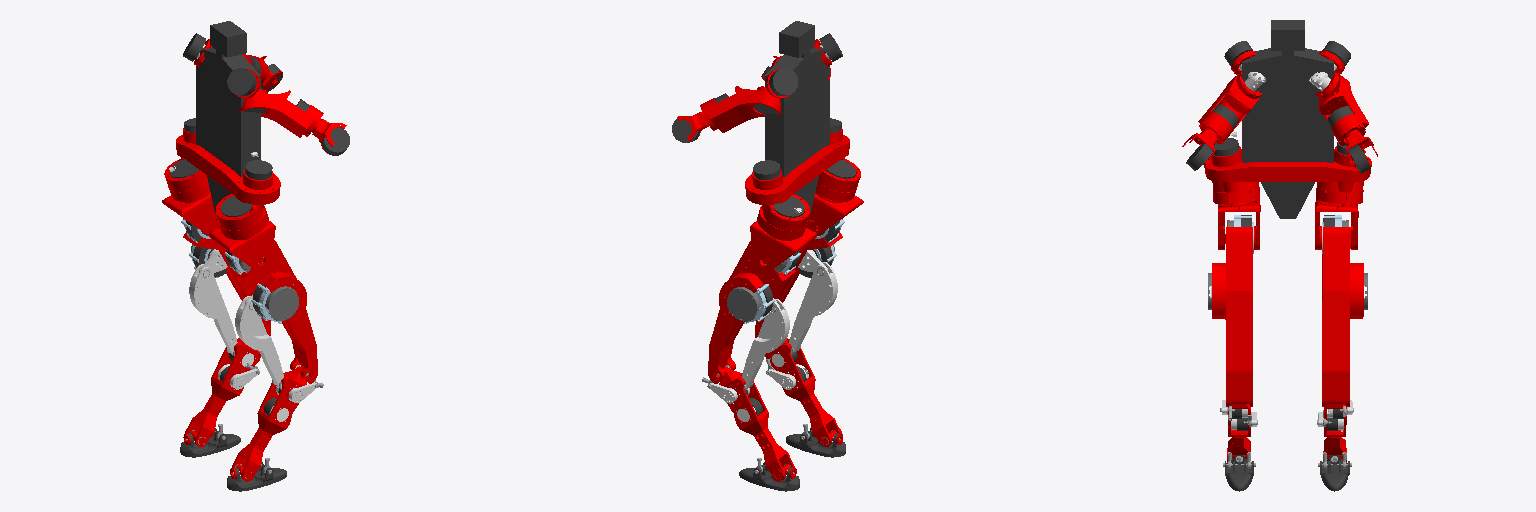
--- Render facts (derived) ---
3 views of the same robot in one strip: view 1: azimuth 30°, elevation 25°; view 2: azimuth 150°, elevation 25°; view 3: azimuth 270°, elevation 25° (orthographic).
Robot: urdf — 18 links, 17 joints (12 revolute, 5 fixed); root link torso_subassembly; default pose: every joint at zero.
Links seen in each view (by area): view 1: torso_mesh, tigh_subassembly, torso_assembly, tigh_subassembly_sym, torso_subassembly, shin_subassembly, shin_subassembly_sym, hipx_subassembly, hipy_subassembly, hipx_subassemby_sym, hipy_subassembly_sym, foot_subassembly_2 (+1 smaller); view 2: torso_mesh, tigh_subassembly_sym, torso_assembly, tigh_subassembly, torso_subassembly, shin_subassembly_sym, shin_subassembly, hipx_subassemby_sym, hipy_subassembly_sym, hipx_subassembly, hipy_subassembly, foot_subassembly (+1 smaller); view 3: torso_mesh, torso_assembly, tigh_subassembly_sym, tigh_subassembly, torso_subassembly, shin_subassembly, shin_subassembly_sym, hipx_subassemby_sym, hipx_subassembly, hipy_subassembly_sym, foot_subassembly_2, foot_subassembly (+1 smaller).
Link boxes in pixels (x1=…): torso_mesh: x1=196, y1=21, x2=260, y2=212; tigh_subassembly: x1=225, y1=240, x2=317, y2=389; torso_assembly: x1=183, y1=33, x2=349, y2=155; tigh_subassembly_sym: x1=181, y1=218, x2=270, y2=355; torso_subassembly: x1=176, y1=118, x2=280, y2=204; shin_subassembly: x1=232, y1=366, x2=323, y2=481; shin_subassembly_sym: x1=185, y1=338, x2=260, y2=446; hipx_subassembly: x1=216, y1=194, x2=268, y2=239; hipy_subassembly: x1=209, y1=221, x2=275, y2=271; hipx_subassemby_sym: x1=164, y1=157, x2=209, y2=201; hipy_subassembly_sym: x1=162, y1=192, x2=219, y2=235; foot_subassembly_2: x1=180, y1=424, x2=240, y2=457; torso_mesh: x1=765, y1=21, x2=829, y2=212; tigh_subassembly_sym: x1=708, y1=241, x2=800, y2=390; torso_assembly: x1=672, y1=33, x2=842, y2=142; tigh_subassembly: x1=755, y1=219, x2=844, y2=355; torso_subassembly: x1=745, y1=118, x2=849, y2=204; shin_subassembly_sym: x1=702, y1=366, x2=794, y2=481; shin_subassembly: x1=765, y1=338, x2=841, y2=446; hipx_subassemby_sym: x1=757, y1=194, x2=809, y2=239; hipy_subassembly_sym: x1=750, y1=221, x2=816, y2=271; hipx_subassembly: x1=816, y1=157, x2=860, y2=201; hipy_subassembly: x1=806, y1=192, x2=863, y2=235; foot_subassembly: x1=786, y1=424, x2=845, y2=457; torso_mesh: x1=1242, y1=20, x2=1333, y2=218; torso_assembly: x1=1182, y1=41, x2=1377, y2=173; tigh_subassembly_sym: x1=1322, y1=215, x2=1367, y2=406; tigh_subassembly: x1=1208, y1=215, x2=1253, y2=406; torso_subassembly: x1=1204, y1=132, x2=1371, y2=181; shin_subassembly: x1=1220, y1=400, x2=1257, y2=461; shin_subassembly_sym: x1=1317, y1=400, x2=1353, y2=461; hipx_subassemby_sym: x1=1316, y1=181, x2=1363, y2=206; hipx_subassembly: x1=1212, y1=181, x2=1259, y2=206; hipy_subassembly_sym: x1=1315, y1=200, x2=1358, y2=249; foot_subassembly_2: x1=1318, y1=452, x2=1351, y2=491; foot_subassembly: x1=1223, y1=452, x2=1255, y2=491.
Size in the robot's own frame: 0.3178 by 0.4249 by 1.07 metres.
Meshes: 60 distinct files referenced, 185 mesh visuals loaded (57 binary STL); not drawn: 11 (reference not matched to a file when rendering).

The robot description file, URDF, robot "urdf":
<?xml version="1.0" ?>
<!-- Generated using onshape-to-robot -->
<!-- Onshape https://cad.onshape.com/documents/fb645318a27646d1d8840be6/w/d1cae8805fb652b4d1614997/e/621ef473e7cde4418aaec2ed -->
<robot name="urdf">
  <!-- Link torso_subassembly -->
  <link name="torso_subassembly">
    <inertial>
      <origin xyz="-0.000697254 4.08729e-07 0.0361785" rpy="0 0 0"/>
      <mass value="1.37455"/>
      <inertia ixx="0.0195228" ixy="-3.0234e-10" ixz="1.40229e-06" iyy="0.00129235" iyz="1.22091e-10" izz="0.0197822"/>
    </inertial>
    <!-- Part rs00 -->
    <!-- Part torso22 -->
    <visual>
      <origin xyz="-0.000263039 0.233572 -0.0901625" rpy="-2.85923 1.2395e-17 -3.14159"/>
      <geometry>
        <mesh filename="package://assets/torso22.stl"/>
      </geometry>
      <material name="torso22_material">
        <color rgba="1 0 0 1"/>
      </material>
    </visual>
    <collision>
      <origin xyz="-0.000263039 0.233572 -0.0901625" rpy="-2.85923 1.2395e-17 -3.14159"/>
      <geometry>
        <mesh filename="package://assets/torso22.stl"/>
      </geometry>
    </collision>
    <!-- Part hex_socket_head_cap_screw_m4x0_70_x_20__832e47d784177ea3f1dabbaab534416e -->
    <!-- Part rs00_2 -->
    <!-- Part hex_socket_head_cap_screw_m4x0_70_x_20__832e47d784177ea3f1dabbaab534416e_2 -->
    <!-- Part hex_socket_head_cap_screw_m3x0_50_x_8__d566997e1880d7fd3377c5b0ee12206c -->
    <!-- Part hex_socket_head_cap_screw_m3x0_50_x_8__d566997e1880d7fd3377c5b0ee12206c_2 -->
    <!-- Part bearing_35_72_17 -->
    <visual>
      <origin xyz="-0.000887454 -0.130401 0.0222352" rpy="1.42962 -0.00345593 -3.1411"/>
      <geometry>
        <mesh filename="package://assets/bearing_35_72_17.stl"/>
      </geometry>
      <material name="bearing_35_72_17_material">
        <color rgba="0.768627 0.886275 0.952941 1"/>
      </material>
    </visual>
    <collision>
      <origin xyz="-0.000887454 -0.130401 0.0222352" rpy="1.42962 -0.00345593 -3.1411"/>
      <geometry>
        <mesh filename="package://assets/bearing_35_72_17.stl"/>
      </geometry>
    </collision>
    <!-- Part hex_socket_head_cap_screw_m4x0_70_x_20__832e47d784177ea3f1dabbaab534416e_3 -->
    <!-- Part hex_socket_head_cap_screw_m4x0_70_x_20__832e47d784177ea3f1dabbaab534416e_4 -->
    <!-- Part hex_socket_head_cap_screw_m4x0_70_x_20__832e47d784177ea3f1dabbaab534416e_5 -->
    <!-- Part robstrideo0 -->
    <visual>
      <origin xyz="0.672086 -0.147255 0.0629195" rpy="1.42962 -0.00345593 -3.1411"/>
      <geometry>
        <mesh filename="package://assets/robstrideo0.stl"/>
      </geometry>
      <material name="robstrideo0_material">
        <color rgba="0.301961 0.301961 0.301961 1"/>
      </material>
    </visual>
    <collision>
      <origin xyz="0.672086 -0.147255 0.0629195" rpy="1.42962 -0.00345593 -3.1411"/>
      <geometry>
        <mesh filename="package://assets/robstrideo0.stl"/>
      </geometry>
    </collision>
    <!-- Part hex_socket_head_cap_screw_m3x0_50_x_8__d566997e1880d7fd3377c5b0ee12206c_3 -->
    <!-- Part hex_socket_head_cap_screw_m4x0_70_x_20__832e47d784177ea3f1dabbaab534416e_6 -->
    <!-- Part hex_socket_head_cap_screw_m3x0_50_x_8__d566997e1880d7fd3377c5b0ee12206c_4 -->
    <!-- Part hex_socket_head_cap_screw_m4x0_70_x_20__832e47d784177ea3f1dabbaab534416e_7 -->
    <!-- Part hex_socket_head_cap_screw_m4x0_70_x_20__832e47d784177ea3f1dabbaab534416e_8 -->
    <!-- Part hex_socket_head_cap_screw_m3x0_50_x_8__d566997e1880d7fd3377c5b0ee12206c_5 -->
    <!-- Part hex_socket_head_cap_screw_m4x0_70_x_20__832e47d784177ea3f1dabbaab534416e_9 -->
    <!-- Part hex_socket_head_cap_screw_m3x0_50_x_8__d566997e1880d7fd3377c5b0ee12206c_6 -->
    <!-- Part robstrideo0_2 -->
    <visual>
      <origin xyz="0.672086 0.12555 0.0660044" rpy="1.71198 -0.00345593 3.1411"/>
      <geometry>
        <mesh filename="package://assets/robstrideo0.stl"/>
      </geometry>
      <material name="robstrideo0_2_material">
        <color rgba="0.301961 0.301961 0.301961 1"/>
      </material>
    </visual>
    <collision>
      <origin xyz="0.672086 0.12555 0.0660044" rpy="1.71198 -0.00345593 3.1411"/>
      <geometry>
        <mesh filename="package://assets/robstrideo0.stl"/>
      </geometry>
    </collision>
    <!-- Part hex_socket_head_cap_screw_m3x0_50_x_8__d566997e1880d7fd3377c5b0ee12206c_7 -->
    <!-- Part hex_socket_head_cap_screw_m3x0_50_x_8__d566997e1880d7fd3377c5b0ee12206c_8 -->
    <!-- Part hex_socket_head_cap_screw_m4x0_70_x_20__832e47d784177ea3f1dabbaab534416e_10 -->
    <!-- Part torso12 -->
    <visual>
      <origin xyz="-0.000263039 4.05842e-07 -0.056966" rpy="-3.14159 1.39466e-17 3.14159"/>
      <geometry>
        <mesh filename="package://assets/torso12.stl"/>
      </geometry>
      <material name="torso12_material">
        <color rgba="1 0 0 1"/>
      </material>
    </visual>
    <collision>
      <origin xyz="-0.000263039 4.05842e-07 -0.056966" rpy="-3.14159 1.39466e-17 3.14159"/>
      <geometry>
        <mesh filename="package://assets/torso12.stl"/>
      </geometry>
    </collision>
    <!-- Part hex_socket_head_cap_screw_m4x0_70_x_20__832e47d784177ea3f1dabbaab534416e_11 -->
    <!-- Part hex_socket_head_cap_screw_m4x0_70_x_20__832e47d784177ea3f1dabbaab534416e_12 -->
    <!-- Part torso22_2 -->
    <visual>
      <origin xyz="-0.000263039 4.05842e-07 -0.056966" rpy="-3.14159 1.39466e-17 3.14159"/>
      <geometry>
        <mesh filename="package://assets/torso22.stl"/>
      </geometry>
      <material name="torso22_2_material">
        <color rgba="1 0 0 1"/>
      </material>
    </visual>
    <collision>
      <origin xyz="-0.000263039 4.05842e-07 -0.056966" rpy="-3.14159 1.39466e-17 3.14159"/>
      <geometry>
        <mesh filename="package://assets/torso22.stl"/>
      </geometry>
    </collision>
    <!-- Part hex_socket_head_cap_screw_m4x0_70_x_20__832e47d784177ea3f1dabbaab534416e_13 -->
    <!-- Part bearing_35_72_17_2 -->
    <visual>
      <origin xyz="-0.000887454 0.130402 0.0222352" rpy="1.71198 -0.00345593 3.1411"/>
      <geometry>
        <mesh filename="package://assets/bearing_35_72_17.stl"/>
      </geometry>
      <material name="bearing_35_72_17_2_material">
        <color rgba="0.768627 0.886275 0.952941 1"/>
      </material>
    </visual>
    <collision>
      <origin xyz="-0.000887454 0.130402 0.0222352" rpy="1.71198 -0.00345593 3.1411"/>
      <geometry>
        <mesh filename="package://assets/bearing_35_72_17.stl"/>
      </geometry>
    </collision>
    <!-- Part hex_socket_head_cap_screw_m3x0_50_x_8__d566997e1880d7fd3377c5b0ee12206c_9 -->
    <!-- Part hex_socket_head_cap_screw_m3x0_50_x_8__d566997e1880d7fd3377c5b0ee12206c_10 -->
    <!-- Part hex_socket_head_cap_screw_m3x0_50_x_8__d566997e1880d7fd3377c5b0ee12206c_11 -->
    <!-- Part hex_socket_head_cap_screw_m4x0_70_x_20__832e47d784177ea3f1dabbaab534416e_14 -->
    <!-- Part xt_30_2x2_f -->
    <visual>
      <origin xyz="-3.97731e-05 -0.105809 0.0903709" rpy="3.11704 -1.42957 -1.54599"/>
      <geometry>
        <mesh filename="package://assets/xt_30_2x2_f.stl"/>
      </geometry>
      <material name="xt_30_2x2_f_material">
        <color rgba="0.917647 0.917647 0.917647 1"/>
      </material>
    </visual>
    <collision>
      <origin xyz="-3.97731e-05 -0.105809 0.0903709" rpy="3.11704 -1.42957 -1.54599"/>
      <geometry>
        <mesh filename="package://assets/xt_30_2x2_f.stl"/>
      </geometry>
    </collision>
    <!-- Part hex_socket_head_cap_screw_m4x0_70_x_20__832e47d784177ea3f1dabbaab534416e_15 -->
    <!-- Part hex_socket_head_cap_screw_m4x0_70_x_20__832e47d784177ea3f1dabbaab534416e_16 -->
    <!-- Part hex_socket_head_cap_screw_m3x0_50_x_8__d566997e1880d7fd3377c5b0ee12206c_12 -->
  </link>
  <!-- Frame torso (dummy link + fixed joint) -->
  <link name="torso">
    <origin xyz="0 0 0" rpy="0 -0 0"/>
    <inertial>
      <origin xyz="0 0 0" rpy="0 0 0"/>
      <mass value="1e-9"/>
      <inertia ixx="0" ixy="0" ixz="0" iyy="0" iyz="0" izz="0"/>
    </inertial>
  </link>
  <joint name="torso_frame" type="fixed">
    <origin xyz="2.52201e-19 -1.6263e-19 -2.60209e-18" rpy="0 -0 -1.28128e-29"/>
    <parent link="torso_subassembly"/>
    <child link="torso"/>
    <axis xyz="0 0 0"/>
  </joint>
  <!-- Link hipx_subassembly -->
  <link name="hipx_subassembly">
    <inertial>
      <origin xyz="-0.0179437 -0.0274254 -0.0837243" rpy="0 0 0"/>
      <mass value="0.794013"/>
      <inertia ixx="0.00093782" ixy="-4.40032e-05" ixz="-0.00011053" iyy="0.000903422" iyz="-0.000168643" izz="0.00100397"/>
    </inertial>
    <!-- Part rs02 -->
    <!-- Part hex_socket_head_cap_screw_m4x0_70_x_40__14321d45d56569246e7feb4574a6bae6 -->
    <!-- Part hex_socket_head_cap_screw_m3x0_50_x_8__d566997e1880d7fd3377c5b0ee12206c_13 -->
    <!-- Part hex_socket_head_cap_screw_m3x0_50_x_8__d566997e1880d7fd3377c5b0ee12206c_14 -->
    <!-- Part hex_socket_head_cap_screw_m4x0_70_x_40__14321d45d56569246e7feb4574a6bae6_2 -->
    <!-- Part hex_socket_head_cap_screw_m3x0_50_x_8__d566997e1880d7fd3377c5b0ee12206c_15 -->
    <!-- Part xt_30_2x2_f_2 -->
    <visual>
      <origin xyz="-0.0280156 -0.000591536 -0.0506633" rpy="-2.51827 -1.25093 -2.15149"/>
      <geometry>
        <mesh filename="package://assets/xt_30_2x2_f.stl"/>
      </geometry>
      <material name="xt_30_2x2_f_2_material">
        <color rgba="0.917647 0.917647 0.917647 1"/>
      </material>
    </visual>
    <collision>
      <origin xyz="-0.0280156 -0.000591536 -0.0506633" rpy="-2.51827 -1.25093 -2.15149"/>
      <geometry>
        <mesh filename="package://assets/xt_30_2x2_f.stl"/>
      </geometry>
    </collision>
    <!-- Part hex_socket_head_cap_screw_m3x0_50_x_8__d566997e1880d7fd3377c5b0ee12206c_16 -->
    <!-- Part hex_socket_head_cap_screw_m4x0_70_x_40__14321d45d56569246e7feb4574a6bae6_3 -->
    <!-- Part hex_socket_head_cap_screw_m4x0_70_x_40__14321d45d56569246e7feb4574a6bae6_4 -->
    <!-- Part hex_socket_head_cap_screw_m3x0_50_x_8__d566997e1880d7fd3377c5b0ee12206c_17 -->
    <!-- Part hipz12 -->
    <visual>
      <origin xyz="1.38778e-17 -6.93889e-18 -0.1" rpy="-3.14159 2.9384e-18 -2.93972e-17"/>
      <geometry>
        <mesh filename="package://assets/hipz12.stl"/>
      </geometry>
      <material name="hipz12_material">
        <color rgba="1 0 0 1"/>
      </material>
    </visual>
    <collision>
      <origin xyz="1.38778e-17 -6.93889e-18 -0.1" rpy="-3.14159 2.9384e-18 -2.93972e-17"/>
      <geometry>
        <mesh filename="package://assets/hipz12.stl"/>
      </geometry>
    </collision>
    <!-- Part hex_socket_head_cap_screw_m4x0_70_x_40__14321d45d56569246e7feb4574a6bae6_5 -->
    <!-- Part hex_socket_head_cap_screw_m3x0_50_x_8__d566997e1880d7fd3377c5b0ee12206c_18 -->
    <!-- Part hex_socket_head_cap_screw_m3x0_50_x_8__d566997e1880d7fd3377c5b0ee12206c_19 -->
    <!-- Part robstride02 -->
    <visual>
      <origin xyz="-0.575896 0.0494047 -0.172196" rpy="-1.29671 -0.167023 -0.0467087"/>
      <geometry>
        <mesh filename="package://assets/robstride02.stl"/>
      </geometry>
      <material name="robstride02_material">
        <color rgba="0.301961 0.301961 0.301961 1"/>
      </material>
    </visual>
    <collision>
      <origin xyz="-0.575896 0.0494047 -0.172196" rpy="-1.29671 -0.167023 -0.0467087"/>
      <geometry>
        <mesh filename="package://assets/robstride02.stl"/>
      </geometry>
    </collision>
    <!-- Part hex_socket_head_cap_screw_m4x0_70_x_40__14321d45d56569246e7feb4574a6bae6_6 -->
    <!-- Part hex_socket_head_cap_screw_m3x0_50_x_8__d566997e1880d7fd3377c5b0ee12206c_20 -->
    <!-- Part hex_socket_head_cap_screw_m4x0_70_x_40__14321d45d56569246e7feb4574a6bae6_7 -->
    <!-- Part hex_socket_head_cap_screw_m4x0_70_x_40__14321d45d56569246e7feb4574a6bae6_8 -->
    <!-- Part hex_socket_head_cap_screw_m3x0_50_x_8__d566997e1880d7fd3377c5b0ee12206c_21 -->
    <!-- Part bearing_35_72_17_3 -->
    <visual>
      <origin xyz="-0.01759 -0.0267968 -0.104484" rpy="1.84488 -0.167023 -0.0467087"/>
      <geometry>
        <mesh filename="package://assets/bearing_35_72_17.stl"/>
      </geometry>
      <material name="bearing_35_72_17_3_material">
        <color rgba="0.768627 0.886275 0.952941 1"/>
      </material>
    </visual>
    <collision>
      <origin xyz="-0.01759 -0.0267968 -0.104484" rpy="1.84488 -0.167023 -0.0467087"/>
      <geometry>
        <mesh filename="package://assets/bearing_35_72_17.stl"/>
      </geometry>
    </collision>
    <!-- Part hex_socket_head_cap_screw_m3x0_50_x_8__d566997e1880d7fd3377c5b0ee12206c_22 -->
    <!-- Part hex_socket_head_cap_screw_m3x0_50_x_8__d566997e1880d7fd3377c5b0ee12206c_23 -->
    <!-- Part hex_socket_head_cap_screw_m4x0_70_x_40__14321d45d56569246e7feb4574a6bae6_9 -->
    <!-- Part hex_socket_head_cap_screw_m3x0_50_x_8__d566997e1880d7fd3377c5b0ee12206c_24 -->
    <!-- Part hipz22 -->
    <visual>
      <origin xyz="1.38778e-17 -6.93889e-18 -0.1" rpy="-3.14159 5.78969e-17 2.84576e-16"/>
      <geometry>
        <mesh filename="package://assets/hipz22.stl"/>
      </geometry>
      <material name="hipz22_material">
        <color rgba="1 0 0 1"/>
      </material>
    </visual>
    <collision>
      <origin xyz="1.38778e-17 -6.93889e-18 -0.1" rpy="-3.14159 5.78969e-17 2.84576e-16"/>
      <geometry>
        <mesh filename="package://assets/hipz22.stl"/>
      </geometry>
    </collision>
    <!-- Part hex_socket_head_cap_screw_m3x0_50_x_8__d566997e1880d7fd3377c5b0ee12206c_25 -->
    <!-- Part hex_socket_head_cap_screw_m3x0_50_x_8__d566997e1880d7fd3377c5b0ee12206c_26 -->
    <!-- Part hex_socket_head_cap_screw_m3x0_50_x_8__d566997e1880d7fd3377c5b0ee12206c_27 -->
    <!-- Part hex_socket_head_cap_screw_m4x0_70_x_40__14321d45d56569246e7feb4574a6bae6_10 -->
  </link>
  <!-- Link hipy_subassembly -->
  <link name="hipy_subassembly">
    <inertial>
      <origin xyz="0.00476547 -0.00266343 -0.0607297" rpy="0 0 0"/>
      <mass value="0.241618"/>
      <inertia ixx="0.000504044" ixy="2.43362e-05" ixz="7.84949e-06" iyy="0.000455767" iyz="-3.61499e-05" izz="0.000428966"/>
    </inertial>
    <!-- Part hex_socket_head_cap_screw_m4x0_70_x_20__832e47d784177ea3f1dabbaab534416e_17 -->
    <!-- Part hipxy -->
    <visual>
      <origin xyz="0 1.38778e-17 6.93889e-18" rpy="-2.03065e-17 3.0198e-17 -9.05937e-17"/>
      <geometry>
        <mesh filename="package://assets/hipxy.stl"/>
      </geometry>
      <material name="hipxy_material">
        <color rgba="1 0 0 1"/>
      </material>
    </visual>
    <collision>
      <origin xyz="0 1.38778e-17 6.93889e-18" rpy="-2.03065e-17 3.0198e-17 -9.05937e-17"/>
      <geometry>
        <mesh filename="package://assets/hipxy.stl"/>
      </geometry>
    </collision>
    <!-- Part hex_socket_head_cap_screw_m4x0_70_x_20__832e47d784177ea3f1dabbaab534416e_18 -->
    <!-- Part hex_socket_head_cap_screw_m4x0_70_x_20__832e47d784177ea3f1dabbaab534416e_19 -->
    <!-- Part hex_socket_head_cap_screw_m4x0_70_x_12__c825518ee8edf1afced0eee1b019b750 -->
    <!-- Part hex_socket_head_cap_screw_m4x0_70_x_20__832e47d784177ea3f1dabbaab534416e_20 -->
    <!-- Part hex_socket_head_cap_screw_m4x0_70_x_12__c825518ee8edf1afced0eee1b019b750_2 -->
    <!-- Part hex_socket_head_cap_screw_m4x0_70_x_12__c825518ee8edf1afced0eee1b019b750_3 -->
    <!-- Part hex_socket_head_cap_screw_m4x0_70_x_20__832e47d784177ea3f1dabbaab534416e_21 -->
    <!-- Part hex_socket_head_cap_screw_m4x0_70_x_20__832e47d784177ea3f1dabbaab534416e_22 -->
    <!-- Part hex_socket_head_cap_screw_m4x0_70_x_12__c825518ee8edf1afced0eee1b019b750_4 -->
    <!-- Part hex_socket_head_cap_screw_m4x0_70_x_12__c825518ee8edf1afced0eee1b019b750_5 -->
    <!-- Part hex_socket_head_cap_screw_m4x0_70_x_12__c825518ee8edf1afced0eee1b019b750_6 -->
  </link>
  <!-- Link tigh_subassembly -->
  <link name="tigh_subassembly">
    <inertial>
      <origin xyz="0.0501976 0.0785779 -0.0353813" rpy="0 0 0"/>
      <mass value="2.5804"/>
      <inertia ixx="0.0174359" ixy="-0.0081889" ixz="0.000938636" iyy="0.00865749" iyz="0.00155247" izz="0.0236145"/>
    </inertial>
    <!-- Part hex_socket_head_cap_screw_m3x0_50_x_10__9c80fcbba574884e63b580474e1ee150 -->
    <!-- Part hex_socket_head_cap_screw_m2_5x0_45_x_6__ec244025d76f8b83b2775022a2cb3232 -->
    <!-- Part hex_socket_head_cap_screw_m4x0_70_x_8__a416dc2a8d778a4ef6150c0739aa89d1 -->
    <!-- Part hex_socket_head_cap_screw_m2_5x0_45_x_6__ec244025d76f8b83b2775022a2cb3232_2 -->
    <!-- Part hex_socket_head_cap_screw_m4x0_70_x_8__a416dc2a8d778a4ef6150c0739aa89d1_2 -->
    <!-- Part hex_socket_head_cap_screw_m3x0_50_x_10__9c80fcbba574884e63b580474e1ee150_2 -->
    <!-- Part hex_socket_head_cap_screw_m4x0_70_x_16__8d628c0d7a90368385b1c4c7479647eb -->
    <!-- Part hex_socket_head_cap_screw_m4x0_70_x_8__a416dc2a8d778a4ef6150c0739aa89d1_3 -->
    <!-- Part hex_socket_head_cap_screw_m4x0_70_x_16__8d628c0d7a90368385b1c4c7479647eb_2 -->
    <!-- Part hex_socket_head_cap_screw_m4x0_70_x_8__a416dc2a8d778a4ef6150c0739aa89d1_4 -->
    <!-- Part knee_rod22 -->
    <visual>
      <origin xyz="0.210506 0.184547 -0.0305" rpy="1.5708 -2.30439e-13 -1.0472"/>
      <geometry>
        <mesh filename="package://assets/knee_rod22.stl"/>
      </geometry>
      <material name="knee_rod22_material">
        <color rgba="0.917647 0.917647 0.917647 1"/>
      </material>
    </visual>
    <collision>
      <origin xyz="0.210506 0.184547 -0.0305" rpy="1.5708 -2.30439e-13 -1.0472"/>
      <geometry>
        <mesh filename="package://assets/knee_rod22.stl"/>
      </geometry>
    </collision>
    <!-- Part hex_socket_head_cap_screw_m4x0_70_x_8__a416dc2a8d778a4ef6150c0739aa89d1_5 -->
    <!-- Part hex_socket_head_cap_screw_m4x0_70_x_16__8d628c0d7a90368385b1c4c7479647eb_3 -->
    <!-- Part hex_socket_head_cap_screw_m4x0_70_x_16__8d628c0d7a90368385b1c4c7479647eb_4 -->
    <!-- Part hex_socket_head_cap_screw_m4x0_70_x_8__a416dc2a8d778a4ef6150c0739aa89d1_6 -->
    <!-- Part bearing_15_21_4 -->
    <visual>
      <origin xyz="0.117923 0.320381 -0.0185" rpy="-1.5708 -2.30501e-13 -1.0472"/>
      <geometry>
        <mesh filename="package://assets/bearing_15_21_4.stl"/>
      </geometry>
      <material name="bearing_15_21_4_material">
        <color rgba="0.647059 0.647059 0.647059 1"/>
      </material>
    </visual>
    <collision>
      <origin xyz="0.117923 0.320381 -0.0185" rpy="-1.5708 -2.30501e-13 -1.0472"/>
      <geometry>
        <mesh filename="package://assets/bearing_15_21_4.stl"/>
      </geometry>
    </collision>
    <!-- Part bearing_15_21_4_2 -->
    <visual>
      <origin xyz="0.0130854 0.122429 -0.0245" rpy="-1.5708 -5.27636e-14 -2.31602e-13"/>
      <geometry>
        <mesh filename="package://assets/bearing_15_21_4.stl"/>
      </geometry>
      <material name="bearing_15_21_4_2_material">
        <color rgba="0.647059 0.647059 0.647059 1"/>
      </material>
    </visual>
    <collision>
      <origin xyz="0.0130854 0.122429 -0.0245" rpy="-1.5708 -5.27636e-14 -2.31602e-13"/>
      <geometry>
        <mesh filename="package://assets/bearing_15_21_4.stl"/>
      </geometry>
    </collision>
    <!-- Part hex_socket_head_cap_screw_m2_5x0_45_x_6__ec244025d76f8b83b2775022a2cb3232_3 -->
    <!-- Part hex_socket_head_cap_screw_m4x0_70_x_8__a416dc2a8d778a4ef6150c0739aa89d1_7 -->
    <!-- Part robstrideo3 -->
    <visual>
      <origin xyz="-0.437806 0.570998 -0.07" rpy="-1.5708 -1.50116e-13 -0.523599"/>
      <geometry>
        <mesh filename="package://assets/robstrideo3.stl"/>
      </geometry>
      <material name="robstrideo3_material">
        <color rgba="0.301961 0.301961 0.301961 1"/>
      </material>
    </visual>
    <collision>
      <origin xyz="-0.437806 0.570998 -0.07" rpy="-1.5708 -1.50116e-13 -0.523599"/>
      <geometry>
        <mesh filename="package://assets/robstrideo3.stl"/>
      </geometry>
    </collision>
    <!-- Part hex_socket_head_cap_screw_m4x0_70_x_16__8d628c0d7a90368385b1c4c7479647eb_5 -->
    <!-- Part bearing_15_21_4_3 -->
    <visual>
      <origin xyz="1.8735e-15 -9.90874e-15 -0.0635" rpy="1.5708 -1.50143e-13 -0.523599"/>
      <geometry>
        <mesh filename="package://assets/bearing_15_21_4.stl"/>
      </geometry>
      <material name="bearing_15_21_4_3_material">
        <color rgba="0.647059 0.647059 0.647059 1"/>
      </material>
    </visual>
    <collision>
      <origin xyz="1.8735e-15 -9.90874e-15 -0.0635" rpy="1.5708 -1.50143e-13 -0.523599"/>
      <geometry>
        <mesh filename="package://assets/bearing_15_21_4.stl"/>
      </geometry>
    </collision>
    <!-- Part bearing_15_21_4_4 -->
    <visual>
      <origin xyz="0.0130854 0.122429 -0.0365" rpy="1.5708 -5.27866e-14 -2.3157e-13"/>
      <geometry>
        <mesh filename="package://assets/bearing_15_21_4.stl"/>
      </geometry>
      <material name="bearing_15_21_4_4_material">
        <color rgba="0.647059 0.647059 0.647059 1"/>
      </material>
    </visual>
    <collision>
      <origin xyz="0.0130854 0.122429 -0.0365" rpy="1.5708 -5.27866e-14 -2.3157e-13"/>
      <geometry>
        <mesh filename="package://assets/bearing_15_21_4.stl"/>
      </geometry>
    </collision>
    <!-- Part hex_socket_head_cap_screw_m4x0_70_x_40__14321d45d56569246e7feb4574a6bae6_11 -->
    <!-- Part bearing_15_21_4_5 -->
    <visual>
      <origin xyz="0.117923 0.320381 -0.0425" rpy="1.5708 -2.30466e-13 -1.0472"/>
      <geometry>
        <mesh filename="package://assets/bearing_15_21_4.stl"/>
      </geometry>
      <material name="bearing_15_21_4_5_material">
        <color rgba="0.647059 0.647059 0.647059 1"/>
      </material>
    </visual>
    <collision>
      <origin xyz="0.117923 0.320381 -0.0425" rpy="1.5708 -2.30466e-13 -1.0472"/>
      <geometry>
        <mesh filename="package://assets/bearing_15_21_4.stl"/>
      </geometry>
    </collision>
    <!-- Part hex_socket_head_cap_screw_m4x0_70_x_40__14321d45d56569246e7feb4574a6bae6_12 -->
    <!-- Part hex_socket_head_cap_screw_m4x0_70_x_8__a416dc2a8d778a4ef6150c0739aa89d1_8 -->
    <!-- Part hex_socket_head_cap_screw_m2_5x0_45_x_6__ec244025d76f8b83b2775022a2cb3232_4 -->
    <!-- Part hex_socket_head_cap_screw_m2_5x0_45_x_6__ec244025d76f8b83b2775022a2cb3232_5 -->
    <!-- Part hex_socket_head_cap_screw_m4x0_70_x_8__a416dc2a8d778a4ef6150c0739aa89d1_9 -->
    <!-- Part knee_rod12 -->
    <visual>
      <origin xyz="0.210506 0.184547 -0.0305" rpy="1.5708 -2.30723e-13 -1.0472"/>
      <geometry>
        <mesh filename="package://assets/knee_rod12.stl"/>
      </geometry>
      <material name="knee_rod12_material">
        <color rgba="0.917647 0.917647 0.917647 1"/>
      </material>
    </visual>
    <collision>
      <origin xyz="0.210506 0.184547 -0.0305" rpy="1.5708 -2.30723e-13 -1.0472"/>
      <geometry>
        <mesh filename="package://assets/knee_rod12.stl"/>
      </geometry>
    </collision>
    <!-- Part hex_socket_head_cap_screw_m4x0_70_x_8__a416dc2a8d778a4ef6150c0739aa89d1_10 -->
    <!-- Part bearing_5_16_5 -->
    <visual>
      <origin xyz="0.17 0.294449 -0.05" rpy="-1.5708 -1.49914e-13 -0.523599"/>
      <geometry>
        <mesh filename="package://assets/bearing_5_16_5.stl"/>
      </geometry>
      <material name="bearing_5_16_5_material">
        <color rgba="0.917647 0.917647 0.917647 1"/>
      </material>
    </visual>
    <collision>
      <origin xyz="0.17 0.294449 -0.05" rpy="-1.5708 -1.49914e-13 -0.523599"/>
      <geometry>
        <mesh filename="package://assets/bearing_5_16_5.stl"/>
      </geometry>
    </collision>
    <!-- Part hex_socket_head_cap_screw_m4x0_70_x_8__a416dc2a8d778a4ef6150c0739aa89d1_11 -->
    <!-- Part hex_socket_head_cap_screw_m4x0_70_x_8__a416dc2a8d778a4ef6150c0739aa89d1_12 -->
    <!-- Part hex_socket_head_cap_screw_m4x0_70_x_8__a416dc2a8d778a4ef6150c0739aa89d1_13 -->
    <!-- Part hex_socket_head_cap_screw_m4x0_70_x_40__14321d45d56569246e7feb4574a6bae6_13 -->
    <!-- Part knee_actuation -->
    <visual>
      <origin xyz="0.058 0.324459 -0.0305" rpy="1.5708 -5.27508e-14 -2.31602e-13"/>
      <geometry>
        <mesh filename="package://assets/knee_actuation.stl"/>
      </geometry>
      <material name="knee_actuation_material">
        <color rgba="0.917647 0.917647 0.917647 1"/>
      </material>
    </visual>
    <collision>
      <origin xyz="0.058 0.324459 -0.0305" rpy="1.5708 -5.27508e-14 -2.31602e-13"/>
      <geometry>
        <mesh filename="package://assets/knee_actuation.stl"/>
      </geometry>
    </collision>
    <!-- Part hex_socket_head_cap_screw_m4x0_70_x_16__8d628c0d7a90368385b1c4c7479647eb_6 -->
    <!-- Part hex_socket_head_cap_screw_m3x0_50_x_10__9c80fcbba574884e63b580474e1ee150_3 -->
    <!-- Part hex_socket_head_cap_screw_m4x0_70_x_8__a416dc2a8d778a4ef6150c0739aa89d1_14 -->
    <!-- Part bearing_5_16_5_2 -->
    <visual>
      <origin xyz="0.17 0.294449 -0.01425" rpy="-1.5708 -1.49914e-13 -0.523599"/>
      <geometry>
        <mesh filename="package://assets/bearing_5_16_5.stl"/>
      </geometry>
      <material name="bearing_5_16_5_2_material">
        <color rgba="0.917647 0.917647 0.917647 1"/>
      </material>
    </visual>
    <collision>
      <origin xyz="0.17 0.294449 -0.01425" rpy="-1.5708 -1.49914e-13 -0.523599"/>
      <geometry>
        <mesh filename="package://assets/bearing_5_16_5.stl"/>
      </geometry>
    </collision>
    <!-- Part femur_22 -->
    <visual>
      <origin xyz="0.17 0.294449 -0.0305" rpy="1.5708 -1.5006e-13 -0.523599"/>
      <geometry>
        <mesh filename="package://assets/femur_22.stl"/>
      </geometry>
      <material name="femur_22_material">
        <color rgba="1 0 0 1"/>
      </material>
    </visual>
    <collision>
      <origin xyz="0.17 0.294449 -0.0305" rpy="1.5708 -1.5006e-13 -0.523599"/>
      <geometry>
        <mesh filename="package://assets/femur_22.stl"/>
      </geometry>
    </collision>
    <!-- Part hex_socket_head_cap_screw_m4x0_70_x_40__14321d45d56569246e7feb4574a6bae6_14 -->
    <!-- Part femur_12 -->
    <visual>
      <origin xyz="0.17 0.294449 -0.0305" rpy="1.5708 -1.50136e-13 -0.523599"/>
      <geometry>
        <mesh filename="package://assets/femur_12.stl"/>
      </geometry>
      <material name="femur_12_material">
        <color rgba="1 0 0 1"/>
      </material>
    </visual>
    <collision>
      <origin xyz="0.17 0.294449 -0.0305" rpy="1.5708 -1.50136e-13 -0.523599"/>
      <geometry>
        <mesh filename="package://assets/femur_12.stl"/>
      </geometry>
    </collision>
    <!-- Part hat_femur -->
    <visual>
      <origin xyz="0.17 0.294449 -0.0305" rpy="1.5708 -1.50116e-13 -0.523599"/>
      <geometry>
        <mesh filename="package://assets/hat_femur.stl"/>
      </geometry>
      <material name="hat_femur_material">
        <color rgba="1 0 0 1"/>
      </material>
    </visual>
    <collision>
      <origin xyz="0.17 0.294449 -0.0305" rpy="1.5708 -1.50116e-13 -0.523599"/>
      <geometry>
        <mesh filename="package://assets/hat_femur.stl"/>
      </geometry>
    </collision>
    <!-- Part part_3 -->
    <visual>
      <origin xyz="2.31065e-15 -1.7486e-14 -0.0938" rpy="-2.61799 1.5708 0"/>
      <geometry>
        <mesh filename="package://assets/part_3.stl"/>
      </geometry>
      <material name="part_3_material">
        <color rgba="1 0 0 1"/>
      </material>
    </visual>
    <collision>
      <origin xyz="2.31065e-15 -1.7486e-14 -0.0938" rpy="-2.61799 1.5708 0"/>
      <geometry>
        <mesh filename="package://assets/part_3.stl"/>
      </geometry>
    </collision>
    <!-- Part robstrideo3_2 -->
    <visual>
      <origin xyz="-0.495806 0.470539 -0.0275" rpy="-1.5708 -1.50116e-13 -0.523599"/>
      <geometry>
        <mesh filename="package://assets/robstrideo3.stl"/>
      </geometry>
      <material name="robstrideo3_2_material">
        <color rgba="0.301961 0.301961 0.301961 1"/>
      </material>
    </visual>
    <collision>
      <origin xyz="-0.495806 0.470539 -0.0275" rpy="-1.5708 -1.50116e-13 -0.523599"/>
      <geometry>
        <mesh filename="package://assets/robstrideo3.stl"/>
      </geometry>
    </collision>
    <!-- Part hex_socket_head_cap_screw_m2_5x0_45_x_6__ec244025d76f8b83b2775022a2cb3232_6 -->
    <!-- Part 1_1_31_qt_942_1 -->
    <visual>
      <origin xyz="3.72966e-15 -4.38538e-15 -0.04" rpy="1.05498e-13 -1.32004e-13 -2.0944"/>
      <geometry>
        <mesh filename="package://assets/1_1_31_qt_942_1.stl"/>
      </geometry>
      <material name="1_1_31_qt_942_1_material">
        <color rgba="0.768627 0.886275 0.952941 1"/>
      </material>
    </visual>
    <collision>
      <origin xyz="3.72966e-15 -4.38538e-15 -0.04" rpy="1.05498e-13 -1.32004e-13 -2.0944"/>
      <geometry>
        <mesh filename="package://assets/1_1_31_qt_942_1.stl"/>
      </geometry>
    </collision>
    <!-- Part 1_1_06_eb903_538_1 -->
    <visual>
      <origin xyz="4.33334e-15 -5.96745e-15 -0.0566" rpy="1.05498e-13 -1.32004e-13 -2.0944"/>
      <geometry>
        <mesh filename="package://assets/1_1_06_eb903_538_1.stl"/>
      </geometry>
      <material name="1_1_06_eb903_538_1_material">
        <color rgba="0.498039 0.498039 0.498039 1"/>
      </material>
    </visual>
    <collision>
      <origin xyz="4.33334e-15 -5.96745e-15 -0.0566" rpy="1.05498e-13 -1.32004e-13 -2.0944"/>
      <geometry>
        <mesh filename="package://assets/1_1_06_eb903_538_1.stl"/>
      </geometry>
    </collision>
    <!-- Part 1_1_31_qt_942_1_2 -->
    <visual>
      <origin xyz="0.058 0.100459 -0.0825" rpy="3.05109e-13 1.63945e-13 2.61799"/>
      <geometry>
        <mesh filename="package://assets/1_1_31_qt_942_1.stl"/>
      </geometry>
      <material name="1_1_31_qt_942_1_2_material">
        <color rgba="0.768627 0.886275 0.952941 1"/>
      </material>
    </visual>
    <collision>
      <origin xyz="0.058 0.100459 -0.0825" rpy="3.05109e-13 1.63945e-13 2.61799"/>
      <geometry>
        <mesh filename="package://assets/1_1_31_qt_942_1.stl"/>
      </geometry>
    </collision>
    <!-- Part 1_1_06_eb903_538_1_2 -->
    <visual>
      <origin xyz="0.058 0.100459 -0.0991" rpy="3.05109e-13 1.63945e-13 2.61799"/>
      <geometry>
        <mesh filename="package://assets/1_1_06_eb903_538_1.stl"/>
      </geometry>
      <material name="1_1_06_eb903_538_1_2_material">
        <color rgba="0.498039 0.498039 0.498039 1"/>
      </material>
    </visual>
    <collision>
      <origin xyz="0.058 0.100459 -0.0991" rpy="3.05109e-13 1.63945e-13 2.61799"/>
      <geometry>
        <mesh filename="package://assets/1_1_06_eb903_538_1.stl"/>
      </geometry>
    </collision>
    <!-- Part 1_1_06_eb903_537_af0_1 -->
    <visual>
      <origin xyz="2.52576e-15 -4.10783e-15 -0.0375" rpy="-2.09276e-13 -1.50053e-13 -0.523599"/>
      <geometry>
        <mesh filename="package://assets/1_1_06_eb903_537_af0_1.stl"/>
      </geometry>
      <material name="1_1_06_eb903_537_af0_1_material">
        <color rgba="0.768627 0.886275 0.952941 1"/>
      </material>
    </visual>
    <collision>
      <origin xyz="2.52576e-15 -4.10783e-15 -0.0375" rpy="-2.09276e-13 -1.50053e-13 -0.523599"/>
      <geometry>
        <mesh filename="package://assets/1_1_06_eb903_537_af0_1.stl"/>
      </geometry>
    </collision>
    <!-- Part 1_1_02_eb901_558_1 -->
    <visual>
      <origin xyz="3.46945e-18 0 0" rpy="3.14159 6.95065e-30 1.46162e-17"/>
      <geometry>
        <mesh filename="package://assets/1_1_02_eb901_558_1.stl"/>
      </geometry>
      <material name="1_1_02_eb901_558_1_material">
        <color rgba="0.917647 0.917647 0.917647 1"/>
      </material>
    </visual>
    <collision>
      <origin xyz="3.46945e-18 0 0" rpy="3.14159 6.95065e-30 1.46162e-17"/>
      <geometry>
        <mesh filename="package://assets/1_1_02_eb901_558_1.stl"/>
      </geometry>
    </collision>
    <!-- Part 1_1_06_eb903_537_af0_1_2 -->
    <visual>
      <origin xyz="0.058 0.100459 -0.08" rpy="1.50011e-13 -1.97375e-13 -2.0944"/>
      <geometry>
        <mesh filename="package://assets/1_1_06_eb903_537_af0_1.stl"/>
      </geometry>
      <material name="1_1_06_eb903_537_af0_1_2_material">
        <color rgba="0.768627 0.886275 0.952941 1"/>
      </material>
    </visual>
    <collision>
      <origin xyz="0.058 0.100459 -0.08" rpy="1.50011e-13 -1.97375e-13 -2.0944"/>
      <geometry>
        <mesh filename="package://assets/1_1_06_eb903_537_af0_1.stl"/>
      </geometry>
    </collision>
    <!-- Part 1_1_02_eb901_558_1_2 -->
    <visual>
      <origin xyz="0.058 0.100459 -0.0425" rpy="-3.14159 -2.37057e-13 -1.5708"/>
      <geometry>
        <mesh filename="package://assets/1_1_02_eb901_558_1.stl"/>
      </geometry>
      <material name="1_1_02_eb901_558_1_2_material">
        <color rgba="0.917647 0.917647 0.917647 1"/>
      </material>
    </visual>
    <collision>
      <origin xyz="0.058 0.100459 -0.0425" rpy="-3.14159 -2.37057e-13 -1.5708"/>
      <geometry>
        <mesh filename="package://assets/1_1_02_eb901_558_1.stl"/>
      </geometry>
    </collision>
  </link>
  <!-- Link shin_subassembly -->
  <link name="shin_subassembly">
    <inertial>
      <origin xyz="-0.0765467 -0.0486737 6.35117e-05" rpy="0 0 0"/>
      <mass value="0.593267"/>
      <inertia ixx="0.00060022" ixy="-0.000633438" ixz="-8.08235e-05" iyy="0.00138683" iyz="-4.81462e-05" izz="0.00176401"/>
    </inertial>
    <!-- Part hex_socket_head_cap_screw_m2_5x0_45_x_8__dec2226ceabd7d7ca0bb403ec234d89b -->
    <!-- Part rmdx43 -->
    <visual>
      <origin xyz="-0.2967 0.369726 0.019" rpy="1.5708 -4.60092e-16 -1.02188"/>
      <geometry>
        <mesh filename="package://assets/rmdx43.stl"/>
      </geometry>
      <material name="rmdx43_material">
        <color rgba="0.301961 0.301961 0.301961 1"/>
      </material>
    </visual>
    <collision>
      <origin xyz="-0.2967 0.369726 0.019" rpy="1.5708 -4.60092e-16 -1.02188"/>
      <geometry>
        <mesh filename="package://assets/rmdx43.stl"/>
      </geometry>
    </collision>
    <!-- Part xt_30_2x2_f_3 -->
    <visual>
      <origin xyz="-0.0609783 -0.00254913 -0.0142" rpy="2.11972 -1.5708 0"/>
      <geometry>
        <mesh filename="package://assets/xt_30_2x2_f.stl"/>
      </geometry>
      <material name="xt_30_2x2_f_3_material">
        <color rgba="0.917647 0.917647 0.917647 1"/>
      </material>
    </visual>
    <collision>
      <origin xyz="-0.0609783 -0.00254913 -0.0142" rpy="2.11972 -1.5708 0"/>
      <geometry>
        <mesh filename="package://assets/xt_30_2x2_f.stl"/>
      </geometry>
    </collision>
    <!-- Part hex_socket_head_cap_screw_m3x0_50_x_20__7252065e4445f5ec71347b53fcae11e4 -->
    <!-- Part hex_socket_head_cap_screw_m3x0_50_x_10__9c80fcbba574884e63b580474e1ee150_4 -->
    <!-- Part tibias22 -->
    <visual>
      <origin xyz="-0.221803 -0.135659 0.019" rpy="-1.5708 -4.53153e-16 -1.02188"/>
      <geometry>
        <mesh filename="package://assets/tibias22.stl"/>
      </geometry>
      <material name="tibias22_material">
        <color rgba="1 0 0 1"/>
      </material>
    </visual>
    <collision>
      <origin xyz="-0.221803 -0.135659 0.019" rpy="-1.5708 -4.53153e-16 -1.02188"/>
      <geometry>
        <mesh filename="package://assets/tibias22.stl"/>
      </geometry>
    </collision>
    <!-- Part 27628_01_050_catpart -->
    <visual>
      <origin xyz="0.00455194 -0.0324886 0.02" rpy="-1.5708 -2.20588e-15 -0.831949"/>
      <geometry>
        <mesh filename="package://assets/27628_01_050_catpart.stl"/>
      </geometry>
      <material name="27628_01_050_catpart_material">
        <color rgba="0.690196 0.690196 0.690196 1"/>
      </material>
    </visual>
    <collision>
      <origin xyz="0.00455194 -0.0324886 0.02" rpy="-1.5708 -2.20588e-15 -0.831949"/>
      <geometry>
        <mesh filename="package://assets/27628_01_050_catpart.stl"/>
      </geometry>
    </collision>
    <!-- Part hex_socket_head_cap_screw_m3x0_50_x_10__9c80fcbba574884e63b580474e1ee150_5 -->
    <!-- Part hex_socket_head_cap_screw_m3x0_50_x_10__9c80fcbba574884e63b580474e1ee150_6 -->
    <!-- Part hex_socket_head_cap_screw_m3x0_50_x_10__9c80fcbba574884e63b580474e1ee150_7 -->
    <!-- Part hex_thin_nut_grade_a___b_m4x0_7__a8228d9ce5dcc05f24da0a2f74d882f3 -->
    <visual>
      <origin xyz="1.38778e-17 5.55112e-17 0.0247602" rpy="1.73472e-16 1.14492e-16 -6.79818e-17"/>
      <geometry>
        <mesh filename="package://assets/hex_thin_nut_grade_a___b_m4x0_7__a8228d9ce5dcc05f24da0a2f74d882f3.stl"/>
      </geometry>
      <material name="hex_thin_nut_grade_a___b_m4x0_7__a8228d9ce5dcc05f24da0a2f74d882f3_material">
        <color rgba="0.603922 0.647059 0.686275 1"/>
      </material>
    </visual>
    <collision>
      <origin xyz="1.38778e-17 5.55112e-17 0.0247602" rpy="1.73472e-16 1.14492e-16 -6.79818e-17"/>
      <geometry>
        <mesh filename="package://assets/hex_thin_nut_grade_a___b_m4x0_7__a8228d9ce5dcc05f24da0a2f74d882f3.stl"/>
      </geometry>
    </collision>
    <!-- Part 07534_05x40_catpart -->
    <visual>
      <origin xyz="1.38778e-17 5.55112e-17 -0.025" rpy="-1.5708 -1.5708 0"/>
      <geometry>
        <mesh filename="package://assets/07534_05x40_catpart.stl"/>
      </geometry>
      <material name="07534_05x40_catpart_material">
        <color rgba="0.690196 0.690196 0.690196 1"/>
      </material>
    </visual>
    <collision>
      <origin xyz="1.38778e-17 5.55112e-17 -0.025" rpy="-1.5708 -1.5708 0"/>
      <geometry>
        <mesh filename="package://assets/07534_05x40_catpart.stl"/>
      </geometry>
    </collision>
    <!-- Part hex_thin_nut_grade_a___b_m4x0_7__a8228d9ce5dcc05f24da0a2f74d882f3_2 -->
    <visual>
      <origin xyz="-0.0406618 -0.0601422 -0.0112398" rpy="-3.14159 6.06258e-16 -0.0968529"/>
      <geometry>
        <mesh filename="package://assets/hex_thin_nut_grade_a___b_m4x0_7__a8228d9ce5dcc05f24da0a2f74d882f3.stl"/>
      </geometry>
      <material name="hex_thin_nut_grade_a___b_m4x0_7__a8228d9ce5dcc05f24da0a2f74d882f3_2_material">
        <color rgba="0.603922 0.647059 0.686275 1"/>
      </material>
    </visual>
    <collision>
      <origin xyz="-0.0406618 -0.0601422 -0.0112398" rpy="-3.14159 6.06258e-16 -0.0968529"/>
      <geometry>
        <mesh filename="package://assets/hex_thin_nut_grade_a___b_m4x0_7__a8228d9ce5dcc05f24da0a2f74d882f3.stl"/>
      </geometry>
    </collision>
    <!-- Part hex_socket_head_cap_screw_m3x0_50_x_20__7252065e4445f5ec71347b53fcae11e4_2 -->
    <!-- Part hex_socket_head_cap_screw_m3x0_50_x_10__9c80fcbba574884e63b580474e1ee150_8 -->
    <!-- Part 07534_05x20_catpart -->
    <visual>
      <origin xyz="-0.0406618 -0.0601422 -0.041" rpy="3.04474 -1.5708 0"/>
      <geometry>
        <mesh filename="package://assets/07534_05x20_catpart.stl"/>
      </geometry>
      <material name="07534_05x20_catpart_material">
        <color rgba="0.690196 0.690196 0.690196 1"/>
      </material>
    </visual>
    <collision>
      <origin xyz="-0.0406618 -0.0601422 -0.041" rpy="3.04474 -1.5708 0"/>
      <geometry>
        <mesh filename="package://assets/07534_05x20_catpart.stl"/>
      </geometry>
    </collision>
    <!-- Part actuation_ankle -->
    <visual>
      <origin xyz="-0.0303217 0.125625 -0.019" rpy="1.5708 1.93525e-13 -0.0968529"/>
      <geometry>
        <mesh filename="package://assets/actuation_ankle.stl"/>
      </geometry>
      <material name="actuation_ankle_material">
        <color rgba="0.917647 0.917647 0.917647 1"/>
      </material>
    </visual>
    <collision>
      <origin xyz="-0.0303217 0.125625 -0.019" rpy="1.5708 1.93525e-13 -0.0968529"/>
      <geometry>
        <mesh filename="package://assets/actuation_ankle.stl"/>
      </geometry>
    </collision>
    <!-- Part hex_socket_head_cap_screw_m3x0_50_x_30__cb22dc4460edbee8e1cbddf29677c00f -->
    <!-- Part rmdx43_2 -->
    <visual>
      <origin xyz="-0.341913 0.342073 0.006" rpy="1.5708 -4.53153e-16 -1.02188"/>
      <geometry>
        <mesh filename="package://assets/rmdx43.stl"/>
      </geometry>
      <material name="rmdx43_2_material">
        <color rgba="0.301961 0.301961 0.301961 1"/>
      </material>
    </visual>
    <collision>
      <origin xyz="-0.341913 0.342073 0.006" rpy="1.5708 -4.53153e-16 -1.02188"/>
      <geometry>
        <mesh filename="package://assets/rmdx43.stl"/>
      </geometry>
    </collision>
    <!-- Part hex_socket_head_cap_screw_m3x0_50_x_10__9c80fcbba574884e63b580474e1ee150_9 -->
    <!-- Part hex_socket_head_cap_screw_m3x0_50_x_20__7252065e4445f5ec71347b53fcae11e4_3 -->
    <!-- Part hex_socket_head_cap_screw_m3x0_50_x_10__9c80fcbba574884e63b580474e1ee150_10 -->
    <!-- Part hex_socket_head_cap_screw_m3x0_50_x_10__9c80fcbba574884e63b580474e1ee150_11 -->
    <!-- Part hex_socket_head_cap_screw_m3x0_50_x_10__9c80fcbba574884e63b580474e1ee150_12 -->
    <!-- Part hex_socket_head_cap_screw_m4x0_70_x_12__c825518ee8edf1afced0eee1b019b750_7 -->
    <!-- Part hex_socket_head_cap_screw_m3x0_50_x_20__7252065e4445f5ec71347b53fcae11e4_4 -->
    <!-- Part hex_socket_head_cap_screw_m3x0_50_x_20__7252065e4445f5ec71347b53fcae11e4_5 -->
    <!-- Part hex_socket_head_cap_screw_m3x0_50_x_10__9c80fcbba574884e63b580474e1ee150_13 -->
    <!-- Part hex_socket_head_cap_screw_m3x0_50_x_10__9c80fcbba574884e63b580474e1ee150_14 -->
    <!-- Part hex_socket_head_cap_screw_m3x0_50_x_10__9c80fcbba574884e63b580474e1ee150_15 -->
    <!-- Part hex_socket_head_cap_screw_m3x0_50_x_10__9c80fcbba574884e63b580474e1ee150_16 -->
    <!-- Part hex_socket_head_cap_screw_m3x0_50_x_20__7252065e4445f5ec71347b53fcae11e4_6 -->
    <!-- Part hex_socket_head_cap_screw_m3x0_50_x_10__9c80fcbba574884e63b580474e1ee150_17 -->
    <!-- Part hex_socket_head_cap_screw_m3x0_50_x_10__9c80fcbba574884e63b580474e1ee150_18 -->
    <!-- Part hex_socket_head_cap_screw_m3x0_50_x_10__9c80fcbba574884e63b580474e1ee150_19 -->
    <!-- Part hex_socket_head_cap_screw_m2_5x0_45_x_8__dec2226ceabd7d7ca0bb403ec234d89b_2 -->
    <!-- Part hex_socket_head_cap_screw_m4x0_70_x_12__c825518ee8edf1afced0eee1b019b750_8 -->
    <!-- Part hat_big -->
    <visual>
      <origin xyz="-0.221803 -0.135659 0.019" rpy="-1.5708 -4.60092e-16 -1.02188"/>
      <geometry>
        <mesh filename="package://assets/hat_big.stl"/>
      </geometry>
      <material name="hat_big_material">
        <color rgba="1 0 0 1"/>
      </material>
    </visual>
    <collision>
      <origin xyz="-0.221803 -0.135659 0.019" rpy="-1.5708 -4.60092e-16 -1.02188"/>
      <geometry>
        <mesh filename="package://assets/hat_big.stl"/>
      </geometry>
    </collision>
    <!-- Part 07534_05x20_catpart_2 -->
    <visual>
      <origin xyz="0.00455195 -0.0324886 0.041" rpy="-3.04474 1.5708 0"/>
      <geometry>
        <mesh filename="package://assets/07534_05x20_catpart.stl"/>
      </geometry>
      <material name="07534_05x20_catpart_2_material">
        <color rgba="0.690196 0.690196 0.690196 1"/>
      </material>
    </visual>
    <collision>
      <origin xyz="0.00455195 -0.0324886 0.041" rpy="-3.04474 1.5708 0"/>
      <geometry>
        <mesh filename="package://assets/07534_05x20_catpart.stl"/>
      </geometry>
    </collision>
    <!-- Part hex_socket_head_cap_screw_m4x0_70_x_12__c825518ee8edf1afced0eee1b019b750_9 -->
    <!-- Part hex_thin_nut_grade_a___b_m4x0_7__a8228d9ce5dcc05f24da0a2f74d882f3_3 -->
    <visual>
      <origin xyz="0.00455195 -0.0324886 0.0134397" rpy="-2.15347e-13 1.93622e-13 -0.0968529"/>
      <geometry>
        <mesh filename="package://assets/hex_thin_nut_grade_a___b_m4x0_7__a8228d9ce5dcc05f24da0a2f74d882f3.stl"/>
      </geometry>
      <material name="hex_thin_nut_grade_a___b_m4x0_7__a8228d9ce5dcc05f24da0a2f74d882f3_3_material">
        <color rgba="0.603922 0.647059 0.686275 1"/>
      </material>
    </visual>
    <collision>
      <origin xyz="0.00455195 -0.0324886 0.0134397" rpy="-2.15347e-13 1.93622e-13 -0.0968529"/>
      <geometry>
        <mesh filename="package://assets/hex_thin_nut_grade_a___b_m4x0_7__a8228d9ce5dcc05f24da0a2f74d882f3.stl"/>
      </geometry>
    </collision>
    <!-- Part hex_socket_head_cap_screw_m2_5x0_45_x_8__dec2226ceabd7d7ca0bb403ec234d89b_3 -->
    <!-- Part tibias12 -->
    <visual>
      <origin xyz="-0.221803 -0.135659 0.019" rpy="-1.5708 -4.60092e-16 -1.02188"/>
      <geometry>
        <mesh filename="package://assets/tibias12.stl"/>
      </geometry>
      <material name="tibias12_material">
        <color rgba="1 0 0 1"/>
      </material>
    </visual>
    <collision>
      <origin xyz="-0.221803 -0.135659 0.019" rpy="-1.5708 -4.60092e-16 -1.02188"/>
      <geometry>
        <mesh filename="package://assets/tibias12.stl"/>
      </geometry>
    </collision>
    <!-- Part hex_socket_head_cap_screw_m3x0_50_x_10__9c80fcbba574884e63b580474e1ee150_20 -->
    <!-- Part hex_socket_head_cap_screw_m3x0_50_x_20__7252065e4445f5ec71347b53fcae11e4_7 -->
    <!-- Part hex_socket_head_cap_screw_m3x0_50_x_10__9c80fcbba574884e63b580474e1ee150_21 -->
    <!-- Part hex_socket_head_cap_screw_m3x0_50_x_10__9c80fcbba574884e63b580474e1ee150_22 -->
    <!-- Part xt_30_2x2_f_4 -->
    <visual>
      <origin xyz="-0.105595 -0.0298375 0.0145" rpy="1.02188 1.5708 0"/>
      <geometry>
        <mesh filename="package://assets/xt_30_2x2_f.stl"/>
      </geometry>
      <material name="xt_30_2x2_f_4_material">
        <color rgba="0.917647 0.917647 0.917647 1"/>
      </material>
    </visual>
    <collision>
      <origin xyz="-0.105595 -0.0298375 0.0145" rpy="1.02188 1.5708 0"/>
      <geometry>
        <mesh filename="package://assets/xt_30_2x2_f.stl"/>
      </geometry>
    </collision>
    <!-- Part hex_socket_head_cap_screw_m3x0_50_x_10__9c80fcbba574884e63b580474e1ee150_23 -->
    <!-- Part hex_socket_head_cap_screw_m3x0_50_x_20__7252065e4445f5ec71347b53fcae11e4_8 -->
    <!-- Part actuation_ankle_2 -->
    <visual>
      <origin xyz="-0.105319 -0.208585 0.019" rpy="-1.5708 7.7973e-16 -0.0968529"/>
      <geometry>
        <mesh filename="package://assets/actuation_ankle.stl"/>
      </geometry>
      <material name="actuation_ankle_2_material">
        <color rgba="0.917647 0.917647 0.917647 1"/>
      </material>
    </visual>
    <collision>
      <origin xyz="-0.105319 -0.208585 0.019" rpy="-1.5708 7.7973e-16 -0.0968529"/>
      <geometry>
        <mesh filename="package://assets/actuation_ankle.stl"/>
      </geometry>
    </collision>
    <!-- Part hex_socket_head_cap_screw_m3x0_50_x_10__9c80fcbba574884e63b580474e1ee150_24 -->
    <!-- Part hex_socket_head_cap_screw_m4x0_70_x_12__c825518ee8edf1afced0eee1b019b750_10 -->
    <!-- Part hex_socket_head_cap_screw_m3x0_50_x_20__7252065e4445f5ec71347b53fcae11e4_9 -->
    <!-- Part hex_socket_head_cap_screw_m3x0_50_x_20__7252065e4445f5ec71347b53fcae11e4_10 -->
    <!-- Part 27628_01_050_catpart_2 -->
    <visual>
      <origin xyz="-0.0406619 -0.060142 -0.023" rpy="-1.5708 5.96181e-16 0.772269"/>
      <geometry>
        <mesh filename="package://assets/27628_01_050_catpart.stl"/>
      </geometry>
      <material name="27628_01_050_catpart_2_material">
        <color rgba="0.690196 0.690196 0.690196 1"/>
      </material>
    </visual>
    <collision>
      <origin xyz="-0.0406619 -0.060142 -0.023" rpy="-1.5708 5.96181e-16 0.772269"/>
      <geometry>
        <mesh filename="package://assets/27628_01_050_catpart.stl"/>
      </geometry>
    </collision>
    <!-- Part hex_socket_head_cap_screw_m3x0_50_x_10__9c80fcbba574884e63b580474e1ee150_25 -->
    <!-- Part hex_socket_head_cap_screw_m3x0_50_x_20__7252065e4445f5ec71347b53fcae11e4_11 -->
    <!-- Part hex_socket_head_cap_screw_m3x0_50_x_20__7252065e4445f5ec71347b53fcae11e4_12 -->
    <!-- Part hex_socket_head_cap_screw_m3x0_50_x_10__9c80fcbba574884e63b580474e1ee150_26 -->
    <!-- Part hex_socket_head_cap_screw_m3x0_50_x_10__9c80fcbba574884e63b580474e1ee150_27 -->
    <!-- Part 1_1_31_eb463_510_fl46blw10_48v_5n_m_de_2__fl46blw10_48v_5n_m_de -->
    <visual>
      <origin xyz="-0.0904274 -0.0553071 -0.0195" rpy="-3.14159 9.1342e-16 -1.41458"/>
      <geometry>
        <mesh filename="package://assets/1_1_31_eb463_510_fl46blw10_48v_5n_m_de_2__fl46blw10_48v_5n_m_de.stl"/>
      </geometry>
      <material name="1_1_31_eb463_510_fl46blw10_48v_5n_m_de_2__fl46blw10_48v_5n_m_de_material">
        <color rgba="1 1 1 1"/>
      </material>
    </visual>
    <collision>
      <origin xyz="-0.0904274 -0.0553071 -0.0195" rpy="-3.14159 9.1342e-16 -1.41458"/>
      <geometry>
        <mesh filename="package://assets/1_1_31_eb463_510_fl46blw10_48v_5n_m_de_2__fl46blw10_48v_5n_m_de.stl"/>
      </geometry>
    </collision>
    <!-- Part 1_1_02_eb461_502_fl46blw10_48v_5n_m_de_2__fl46blw10_48v_5n_m_de -->
    <visual>
      <origin xyz="-0.0904274 -0.0553071 -0.0095" rpy="-3.14159 9.1342e-16 -1.41458"/>
      <geometry>
        <mesh filename="package://assets/1_1_02_eb461_502_fl46blw10_48v_5n_m_de_2__fl46blw10_48v_5n_m_de.stl"/>
      </geometry>
      <material name="1_1_02_eb461_502_fl46blw10_48v_5n_m_de_2__fl46blw10_48v_5n_m_de_material">
        <color rgba="1 1 1 1"/>
      </material>
    </visual>
    <collision>
      <origin xyz="-0.0904274 -0.0553071 -0.0095" rpy="-3.14159 9.1342e-16 -1.41458"/>
      <geometry>
        <mesh filename="package://assets/1_1_02_eb461_502_fl46blw10_48v_5n_m_de_2__fl46blw10_48v_5n_m_de.stl"/>
      </geometry>
    </collision>
    <!-- Part 1_1_06_eb463_509_fl46blw10_48v_5n_m_de_2__fl46blw10_48v_5n_m_de -->
    <visual>
      <origin xyz="-0.0904274 -0.0553071 0.022" rpy="3.14159 -8.26613e-14 -0.236479"/>
      <geometry>
        <mesh filename="package://assets/1_1_06_eb463_509_fl46blw10_48v_5n_m_de_2__fl46blw10_48v_5n_m_de.stl"/>
      </geometry>
      <material name="1_1_06_eb463_509_fl46blw10_48v_5n_m_de_2__fl46blw10_48v_5n_m_de_material">
        <color rgba="1 1 1 1"/>
      </material>
    </visual>
    <collision>
      <origin xyz="-0.0904274 -0.0553071 0.022" rpy="3.14159 -8.26613e-14 -0.236479"/>
      <geometry>
        <mesh filename="package://assets/1_1_06_eb463_509_fl46blw10_48v_5n_m_de_2__fl46blw10_48v_5n_m_de.stl"/>
      </geometry>
    </collision>
    <!-- Part 1_1_06_eb463_507_fl46blw10_48v_5n_m_de_2__fl46blw10_48v_5n_m_de -->
    <visual>
      <origin xyz="-0.0904274 -0.0553071 0.0085" rpy="3.14159 -1.2997e-15 -1.02188"/>
      <geometry>
        <mesh filename="package://assets/1_1_06_eb463_507_fl46blw10_48v_5n_m_de_2__fl46blw10_48v_5n_m_de.stl"/>
      </geometry>
      <material name="1_1_06_eb463_507_fl46blw10_48v_5n_m_de_2__fl46blw10_48v_5n_m_de_material">
        <color rgba="1 1 1 1"/>
      </material>
    </visual>
    <collision>
      <origin xyz="-0.0904274 -0.0553071 0.0085" rpy="3.14159 -1.2997e-15 -1.02188"/>
      <geometry>
        <mesh filename="package://assets/1_1_06_eb463_507_fl46blw10_48v_5n_m_de_2__fl46blw10_48v_5n_m_de.stl"/>
      </geometry>
    </collision>
    <!-- Part 1_1_31_eb463_510_fl46blw10_48v_5n_m_de_2__fl46blw10_48v_5n_m_de_2 -->
    <visual>
      <origin xyz="-0.0452137 -0.0276536 0.0195" rpy="-4.06102e-15 3.67729e-14 -0.629178"/>
      <geometry>
        <mesh filename="package://assets/1_1_31_eb463_510_fl46blw10_48v_5n_m_de_2__fl46blw10_48v_5n_m_de.stl"/>
      </geometry>
      <material name="1_1_31_eb463_510_fl46blw10_48v_5n_m_de_2__fl46blw10_48v_5n_m_de_2_material">
        <color rgba="1 1 1 1"/>
      </material>
    </visual>
    <collision>
      <origin xyz="-0.0452137 -0.0276536 0.0195" rpy="-4.06102e-15 3.67729e-14 -0.629178"/>
      <geometry>
        <mesh filename="package://assets/1_1_31_eb463_510_fl46blw10_48v_5n_m_de_2__fl46blw10_48v_5n_m_de.stl"/>
      </geometry>
    </collision>
    <!-- Part 1_1_02_eb461_502_fl46blw10_48v_5n_m_de_2__fl46blw10_48v_5n_m_de_2 -->
    <visual>
      <origin xyz="-0.0452137 -0.0276536 0.0095" rpy="-4.06102e-15 3.67729e-14 -0.629178"/>
      <geometry>
        <mesh filename="package://assets/1_1_02_eb461_502_fl46blw10_48v_5n_m_de_2__fl46blw10_48v_5n_m_de.stl"/>
      </geometry>
      <material name="1_1_02_eb461_502_fl46blw10_48v_5n_m_de_2__fl46blw10_48v_5n_m_de_2_material">
        <color rgba="1 1 1 1"/>
      </material>
    </visual>
    <collision>
      <origin xyz="-0.0452137 -0.0276536 0.0095" rpy="-4.06102e-15 3.67729e-14 -0.629178"/>
      <geometry>
        <mesh filename="package://assets/1_1_02_eb461_502_fl46blw10_48v_5n_m_de_2__fl46blw10_48v_5n_m_de.stl"/>
      </geometry>
    </collision>
    <!-- Part 1_1_06_eb463_509_fl46blw10_48v_5n_m_de_2__fl46blw10_48v_5n_m_de_2 -->
    <visual>
      <origin xyz="-0.0452137 -0.0276536 -0.022" rpy="5.99655e-15 -7.4959e-14 -1.80728"/>
      <geometry>
        <mesh filename="package://assets/1_1_06_eb463_509_fl46blw10_48v_5n_m_de_2__fl46blw10_48v_5n_m_de.stl"/>
      </geometry>
      <material name="1_1_06_eb463_509_fl46blw10_48v_5n_m_de_2__fl46blw10_48v_5n_m_de_2_material">
        <color rgba="1 1 1 1"/>
      </material>
    </visual>
    <collision>
      <origin xyz="-0.0452137 -0.0276536 -0.022" rpy="5.99655e-15 -7.4959e-14 -1.80728"/>
      <geometry>
        <mesh filename="package://assets/1_1_06_eb463_509_fl46blw10_48v_5n_m_de_2__fl46blw10_48v_5n_m_de.stl"/>
      </geometry>
    </collision>
    <!-- Part 1_1_06_eb463_507_fl46blw10_48v_5n_m_de_2__fl46blw10_48v_5n_m_de_2 -->
    <visual>
      <origin xyz="-0.0452137 -0.0276536 -0.0085" rpy="-1.54054e-14 1.70892e-14 -1.02188"/>
      <geometry>
        <mesh filename="package://assets/1_1_06_eb463_507_fl46blw10_48v_5n_m_de_2__fl46blw10_48v_5n_m_de.stl"/>
      </geometry>
      <material name="1_1_06_eb463_507_fl46blw10_48v_5n_m_de_2__fl46blw10_48v_5n_m_de_2_material">
        <color rgba="1 1 1 1"/>
      </material>
    </visual>
    <collision>
      <origin xyz="-0.0452137 -0.0276536 -0.0085" rpy="-1.54054e-14 1.70892e-14 -1.02188"/>
      <geometry>
        <mesh filename="package://assets/1_1_06_eb463_507_fl46blw10_48v_5n_m_de_2__fl46blw10_48v_5n_m_de.stl"/>
      </geometry>
    </collision>
    <!-- Part 0001755652_1_1_30_gr_2202_asm_1_asm_1_1_30_gr_2202_asm_fl46blw10_48v_5n_m_de_2__fl46blw10_48v_5n_m_de -->
    <visual>
      <origin xyz="-0.0823231 -0.0503503 -0.024" rpy="2.45981e-15 1.6397e-15 2.11972"/>
      <geometry>
        <mesh filename="package://assets/0001755652_1_1_30_gr_2202_asm_1_asm_1_1_30_gr_2202_asm_fl46blw10_48v_5n_m_de_2__fl46blw10_48v_5n_m_de.stl"/>
      </geometry>
      <material name="0001755652_1_1_30_gr_2202_asm_1_asm_1_1_30_gr_2202_asm_fl46blw10_48v_5n_m_de_2__fl46blw10_48v_5n_m_de_material">
        <color rgba="1 1 1 1"/>
      </material>
    </visual>
    <collision>
      <origin xyz="-0.0823231 -0.0503503 -0.024" rpy="2.45981e-15 1.6397e-15 2.11972"/>
      <geometry>
        <mesh filename="package://assets/0001755652_1_1_30_gr_2202_asm_1_asm_1_1_30_gr_2202_asm_fl46blw10_48v_5n_m_de_2__fl46blw10_48v_5n_m_de.stl"/>
      </geometry>
    </collision>
    <!-- Part 0001755652_1_1_30_gr_2202_asm_1_asm_1_1_30_gr_2202_asm_fl46blw10_48v_5n_m_de_2__fl46blw10_48v_5n_m_de_2 -->
    <visual>
      <origin xyz="-0.0987723 -0.0507669 -0.024" rpy="2.45981e-15 1.6397e-15 2.11972"/>
      <geometry>
        <mesh filename="package://assets/0001755652_1_1_30_gr_2202_asm_1_asm_1_1_30_gr_2202_asm_fl46blw10_48v_5n_m_de_2__fl46blw10_48v_5n_m_de.stl"/>
      </geometry>
      <material name="0001755652_1_1_30_gr_2202_asm_1_asm_1_1_30_gr_2202_asm_fl46blw10_48v_5n_m_de_2__fl46blw10_48v_5n_m_de_2_material">
        <color rgba="1 1 1 1"/>
      </material>
    </visual>
    <collision>
      <origin xyz="-0.0987723 -0.0507669 -0.024" rpy="2.45981e-15 1.6397e-15 2.11972"/>
      <geometry>
        <mesh filename="package://assets/0001755652_1_1_30_gr_2202_asm_1_asm_1_1_30_gr_2202_asm_fl46blw10_48v_5n_m_de_2__fl46blw10_48v_5n_m_de.stl"/>
      </geometry>
    </collision>
    <!-- Part 0001755652_1_1_30_gr_2202_asm_1_asm_1_1_30_gr_2202_asm_fl46blw10_48v_5n_m_de_2__fl46blw10_48v_5n_m_de_3 -->
    <visual>
      <origin xyz="-0.0533181 -0.0326103 0.024" rpy="-3.14159 3.96987e-14 2.11972"/>
      <geometry>
        <mesh filename="package://assets/0001755652_1_1_30_gr_2202_asm_1_asm_1_1_30_gr_2202_asm_fl46blw10_48v_5n_m_de_2__fl46blw10_48v_5n_m_de.stl"/>
      </geometry>
      <material name="0001755652_1_1_30_gr_2202_asm_1_asm_1_1_30_gr_2202_asm_fl46blw10_48v_5n_m_de_2__fl46blw10_48v_5n_m_de_3_material">
        <color rgba="1 1 1 1"/>
      </material>
    </visual>
    <collision>
      <origin xyz="-0.0533181 -0.0326103 0.024" rpy="-3.14159 3.96987e-14 2.11972"/>
      <geometry>
        <mesh filename="package://assets/0001755652_1_1_30_gr_2202_asm_1_asm_1_1_30_gr_2202_asm_fl46blw10_48v_5n_m_de_2__fl46blw10_48v_5n_m_de.stl"/>
      </geometry>
    </collision>
    <!-- Part 0001755652_1_1_30_gr_2202_asm_1_asm_1_1_30_gr_2202_asm_fl46blw10_48v_5n_m_de_2__fl46blw10_48v_5n_m_de_4 -->
    <visual>
      <origin xyz="-0.0454542 -0.0181566 0.024" rpy="-3.14159 3.96987e-14 2.11972"/>
      <geometry>
        <mesh filename="package://assets/0001755652_1_1_30_gr_2202_asm_1_asm_1_1_30_gr_2202_asm_fl46blw10_48v_5n_m_de_2__fl46blw10_48v_5n_m_de.stl"/>
      </geometry>
      <material name="0001755652_1_1_30_gr_2202_asm_1_asm_1_1_30_gr_2202_asm_fl46blw10_48v_5n_m_de_2__fl46blw10_48v_5n_m_de_4_material">
        <color rgba="1 1 1 1"/>
      </material>
    </visual>
    <collision>
      <origin xyz="-0.0454542 -0.0181566 0.024" rpy="-3.14159 3.96987e-14 2.11972"/>
      <geometry>
        <mesh filename="package://assets/0001755652_1_1_30_gr_2202_asm_1_asm_1_1_30_gr_2202_asm_fl46blw10_48v_5n_m_de_2__fl46blw10_48v_5n_m_de.stl"/>
      </geometry>
    </collision>
    <!-- Part 0001755652_00mini_000_asm_1_asm_1_asm_00mini__20250103_a0001_asm_1_as_asm_1_1_30_gr_2202_asm_1_asm_1_1_30_gr_2202_asm_fl46blw10_48v_5n_m_de_2__fl46blw10_48v_5n_m_de -->
    <visual>
      <origin xyz="-0.0901869 -0.0648041 -0.024" rpy="2.45981e-15 1.6397e-15 2.11972"/>
      <geometry>
        <mesh filename="package://assets/0001755652_00mini_000_asm_1_asm_1_asm_00mini__20250103_a0001_asm_1_as_asm_1_1_30_gr_2202_asm_1_asm_1_1_30_gr_2202_asm_fl46blw10_48v_5n_m_de_2__fl46blw10_48v_5n_m_de.stl"/>
      </geometry>
      <material name="0001755652_00mini_000_asm_1_asm_1_asm_00mini__20250103_a0001_asm_1_as_asm_1_1_30_gr_2202_asm_1_asm_1_1_30_gr_2202_asm_fl46blw10_48v_5n_m_de_2__fl46blw10_48v_5n_m_de_material">
        <color rgba="1 1 1 1"/>
      </material>
    </visual>
    <collision>
      <origin xyz="-0.0901869 -0.0648041 -0.024" rpy="2.45981e-15 1.6397e-15 2.11972"/>
      <geometry>
        <mesh filename="package://assets/0001755652_00mini_000_asm_1_asm_1_asm_00mini__20250103_a0001_asm_1_as_asm_1_1_30_gr_2202_asm_1_asm_1_1_30_gr_2202_asm_fl46blw10_48v_5n_m_de_2__fl46blw10_48v_5n_m_de.stl"/>
      </geometry>
    </collision>
    <!-- Part 6706__300001_1_1_00mini_000_asm_1_asm_1_asm_00mini__20250103_a0001_asm_1_as_asm_1_1_30_gr_2202_asm_1_asm_1_1_30_gr_2202_asm_fl46blw10_48v_5n_m_de_2__fl46blw10_48v_5n_m_de -->
    <visual>
      <origin xyz="-0.0904274 -0.0553071 -0.0205" rpy="2.45981e-15 1.6397e-15 2.11972"/>
      <geometry>
        <mesh filename="package://assets/6706__300001_1_1_00mini_000_asm_1_asm_1_asm_00mini__20250103_a0001_asm_1_as_asm_1_1_30_gr_2202_asm_1_asm_1_1_30_gr_2202_asm_fl46blw10_48v_5n_m_de_2__fl46blw10_48v_5n_m_de.stl"/>
      </geometry>
      <material name="6706__300001_1_1_00mini_000_asm_1_asm_1_asm_00mini__20250103_a0001_asm_1_as_asm_1_1_30_gr_2202_asm_1_asm_1_1_30_gr_2202_asm_fl46blw10_48v_5n_m_de_2__fl46blw10_48v_5n_m_de_material">
        <color rgba="1 1 1 1"/>
      </material>
    </visual>
    <collision>
      <origin xyz="-0.0904274 -0.0553071 -0.0205" rpy="2.45981e-15 1.6397e-15 2.11972"/>
      <geometry>
        <mesh filename="package://assets/6706__300001_1_1_00mini_000_asm_1_asm_1_asm_00mini__20250103_a0001_asm_1_as_asm_1_1_30_gr_2202_asm_1_asm_1_1_30_gr_2202_asm_fl46blw10_48v_5n_m_de_2__fl46blw10_48v_5n_m_de.stl"/>
      </geometry>
    </collision>
    <!-- Part 0001755650_00mini_000_asm_1_asm_1_asm_00mini__20250103_a0001_asm_1_as_asm_1_1_30_gr_2202_asm_1_asm_1_1_30_gr_2202_asm_fl46blw10_48v_5n_m_de_2__fl46blw10_48v_5n_m_de -->
    <visual>
      <origin xyz="-0.0904274 -0.0553071 -0.0209" rpy="2.45981e-15 1.6397e-15 2.11972"/>
      <geometry>
        <mesh filename="package://assets/0001755650_00mini_000_asm_1_asm_1_asm_00mini__20250103_a0001_asm_1_as_asm_1_1_30_gr_2202_asm_1_asm_1_1_30_gr_2202_asm_fl46blw10_48v_5n_m_de_2__fl46blw10_48v_5n_m_de.stl"/>
      </geometry>
      <material name="0001755650_00mini_000_asm_1_asm_1_asm_00mini__20250103_a0001_asm_1_as_asm_1_1_30_gr_2202_asm_1_asm_1_1_30_gr_2202_asm_fl46blw10_48v_5n_m_de_2__fl46blw10_48v_5n_m_de_material">
        <color rgba="1 1 1 1"/>
      </material>
    </visual>
    <collision>
      <origin xyz="-0.0904274 -0.0553071 -0.0209" rpy="2.45981e-15 1.6397e-15 2.11972"/>
      <geometry>
        <mesh filename="package://assets/0001755650_00mini_000_asm_1_asm_1_asm_00mini__20250103_a0001_asm_1_as_asm_1_1_30_gr_2202_asm_1_asm_1_1_30_gr_2202_asm_fl46blw10_48v_5n_m_de_2__fl46blw10_48v_5n_m_de.stl"/>
      </geometry>
    </collision>
    <!-- Part 0001755652_00mini_000_asm_1_asm_1_asm_00mini__20250103_a0001_asm_1_as_asm_1_1_30_gr_2202_asm_1_asm_1_1_30_gr_2202_asm_fl46blw10_48v_5n_m_de_2__fl46blw10_48v_5n_m_de_2 -->
    <visual>
      <origin xyz="-0.0368689 -0.0321937 0.024" rpy="-3.14159 3.96987e-14 2.11972"/>
      <geometry>
        <mesh filename="package://assets/0001755652_00mini_000_asm_1_asm_1_asm_00mini__20250103_a0001_asm_1_as_asm_1_1_30_gr_2202_asm_1_asm_1_1_30_gr_2202_asm_fl46blw10_48v_5n_m_de_2__fl46blw10_48v_5n_m_de.stl"/>
      </geometry>
      <material name="0001755652_00mini_000_asm_1_asm_1_asm_00mini__20250103_a0001_asm_1_as_asm_1_1_30_gr_2202_asm_1_asm_1_1_30_gr_2202_asm_fl46blw10_48v_5n_m_de_2__fl46blw10_48v_5n_m_de_2_material">
        <color rgba="1 1 1 1"/>
      </material>
    </visual>
    <collision>
      <origin xyz="-0.0368689 -0.0321937 0.024" rpy="-3.14159 3.96987e-14 2.11972"/>
      <geometry>
        <mesh filename="package://assets/0001755652_00mini_000_asm_1_asm_1_asm_00mini__20250103_a0001_asm_1_as_asm_1_1_30_gr_2202_asm_1_asm_1_1_30_gr_2202_asm_fl46blw10_48v_5n_m_de_2__fl46blw10_48v_5n_m_de.stl"/>
      </geometry>
    </collision>
    <!-- Part 6706__300001_1_1_00mini_000_asm_1_asm_1_asm_00mini__20250103_a0001_asm_1_as_asm_1_1_30_gr_2202_asm_1_asm_1_1_30_gr_2202_asm_fl46blw10_48v_5n_m_de_2__fl46blw10_48v_5n_m_de_2 -->
    <visual>
      <origin xyz="-0.0452137 -0.0276536 0.0205" rpy="-3.14159 3.96987e-14 2.11972"/>
      <geometry>
        <mesh filename="package://assets/6706__300001_1_1_00mini_000_asm_1_asm_1_asm_00mini__20250103_a0001_asm_1_as_asm_1_1_30_gr_2202_asm_1_asm_1_1_30_gr_2202_asm_fl46blw10_48v_5n_m_de_2__fl46blw10_48v_5n_m_de.stl"/>
      </geometry>
      <material name="6706__300001_1_1_00mini_000_asm_1_asm_1_asm_00mini__20250103_a0001_asm_1_as_asm_1_1_30_gr_2202_asm_1_asm_1_1_30_gr_2202_asm_fl46blw10_48v_5n_m_de_2__fl46blw10_48v_5n_m_de_2_material">
        <color rgba="1 1 1 1"/>
      </material>
    </visual>
    <collision>
      <origin xyz="-0.0452137 -0.0276536 0.0205" rpy="-3.14159 3.96987e-14 2.11972"/>
      <geometry>
        <mesh filename="package://assets/6706__300001_1_1_00mini_000_asm_1_asm_1_asm_00mini__20250103_a0001_asm_1_as_asm_1_1_30_gr_2202_asm_1_asm_1_1_30_gr_2202_asm_fl46blw10_48v_5n_m_de_2__fl46blw10_48v_5n_m_de.stl"/>
      </geometry>
    </collision>
    <!-- Part 0001755650_00mini_000_asm_1_asm_1_asm_00mini__20250103_a0001_asm_1_as_asm_1_1_30_gr_2202_asm_1_asm_1_1_30_gr_2202_asm_fl46blw10_48v_5n_m_de_2__fl46blw10_48v_5n_m_de_2 -->
    <visual>
      <origin xyz="-0.0452137 -0.0276536 0.0209" rpy="-3.14159 3.96987e-14 2.11972"/>
      <geometry>
        <mesh filename="package://assets/0001755650_00mini_000_asm_1_asm_1_asm_00mini__20250103_a0001_asm_1_as_asm_1_1_30_gr_2202_asm_1_asm_1_1_30_gr_2202_asm_fl46blw10_48v_5n_m_de_2__fl46blw10_48v_5n_m_de.stl"/>
      </geometry>
      <material name="0001755650_00mini_000_asm_1_asm_1_asm_00mini__20250103_a0001_asm_1_as_asm_1_1_30_gr_2202_asm_1_asm_1_1_30_gr_2202_asm_fl46blw10_48v_5n_m_de_2__fl46blw10_48v_5n_m_de_2_material">
        <color rgba="1 1 1 1"/>
      </material>
    </visual>
    <collision>
      <origin xyz="-0.0452137 -0.0276536 0.0209" rpy="-3.14159 3.96987e-14 2.11972"/>
      <geometry>
        <mesh filename="package://assets/0001755650_00mini_000_asm_1_asm_1_asm_00mini__20250103_a0001_asm_1_as_asm_1_1_30_gr_2202_asm_1_asm_1_1_30_gr_2202_asm_fl46blw10_48v_5n_m_de_2__fl46blw10_48v_5n_m_de.stl"/>
      </geometry>
    </collision>
  </link>
  <!-- Link ankle_subassembly -->
  <link name="ankle_subassembly">
    <inertial>
      <origin xyz="-1.62086e-08 -0.000727483 0.02" rpy="0 0 0"/>
      <mass value="0.0168168"/>
      <inertia ixx="5.19458e-06" ixy="2.61119e-12" ixz="4.35145e-12" iyy="4.86353e-06" iyz="-7.24871e-13" izz="8.35665e-07"/>
    </inertial>
    <!-- Part hex_socket_head_cap_screw_m2_5x0_45_x_6__ec244025d76f8b83b2775022a2cb3232_7 -->
    <!-- Part 07534_05x40_catpart_2 -->
    <visual>
      <origin xyz="1.77636e-15 0.0249999 0.02" rpy="-3.14159 3.65491e-14 -1.5708"/>
      <geometry>
        <mesh filename="package://assets/07534_05x40_catpart.stl"/>
      </geometry>
      <material name="07534_05x40_catpart_2_material">
        <color rgba="0.690196 0.690196 0.690196 1"/>
      </material>
    </visual>
    <collision>
      <origin xyz="1.77636e-15 0.0249999 0.02" rpy="-3.14159 3.65491e-14 -1.5708"/>
      <geometry>
        <mesh filename="package://assets/07534_05x40_catpart.stl"/>
      </geometry>
    </collision>
    <!-- Part ujoint -->
    <visual>
      <origin xyz="-7.77156e-16 2.46331e-16 0.02" rpy="3.14159 1.5708 0"/>
      <geometry>
        <mesh filename="package://assets/ujoint.stl"/>
      </geometry>
      <material name="ujoint_material">
        <color rgba="1 0 0 1"/>
      </material>
    </visual>
    <collision>
      <origin xyz="-7.77156e-16 2.46331e-16 0.02" rpy="3.14159 1.5708 0"/>
      <geometry>
        <mesh filename="package://assets/ujoint.stl"/>
      </geometry>
    </collision>
    <!-- Part hex_socket_head_cap_screw_m2_5x0_45_x_6__ec244025d76f8b83b2775022a2cb3232_8 -->
    <!-- Part spacer_ujoint -->
    <visual>
      <origin xyz="-1.22125e-15 -1.249e-16 0.02" rpy="2.9536e-14 -1.54943 -3.1118e-14"/>
      <geometry>
        <mesh filename="package://assets/spacer_ujoint.stl"/>
      </geometry>
      <material name="spacer_ujoint_material">
        <color rgba="0.917647 0.917647 0.917647 1"/>
      </material>
    </visual>
    <collision>
      <origin xyz="-1.22125e-15 -1.249e-16 0.02" rpy="2.9536e-14 -1.54943 -3.1118e-14"/>
      <geometry>
        <mesh filename="package://assets/spacer_ujoint.stl"/>
      </geometry>
    </collision>
    <!-- Part hex_thin_nut_grade_a___b_m4x0_7__a8228d9ce5dcc05f24da0a2f74d882f3_4 -->
    <visual>
      <origin xyz="3.03091e-14 -0.02204 0.02" rpy="-1.5708 -1.54943 1.03955e-12"/>
      <geometry>
        <mesh filename="package://assets/hex_thin_nut_grade_a___b_m4x0_7__a8228d9ce5dcc05f24da0a2f74d882f3.stl"/>
      </geometry>
      <material name="hex_thin_nut_grade_a___b_m4x0_7__a8228d9ce5dcc05f24da0a2f74d882f3_4_material">
        <color rgba="0.603922 0.647059 0.686275 1"/>
      </material>
    </visual>
    <collision>
      <origin xyz="3.03091e-14 -0.02204 0.02" rpy="-1.5708 -1.54943 1.03955e-12"/>
      <geometry>
        <mesh filename="package://assets/hex_thin_nut_grade_a___b_m4x0_7__a8228d9ce5dcc05f24da0a2f74d882f3.stl"/>
      </geometry>
    </collision>
    <!-- Part part_3_2 -->
    <visual>
      <origin xyz="2.10942e-15 -4.01762e-15 0.0195" rpy="3.14159 1.5708 0"/>
      <geometry>
        <mesh filename="package://assets/part_3.stl"/>
      </geometry>
      <material name="part_3_2_material">
        <color rgba="1 0 0 1"/>
      </material>
    </visual>
    <collision>
      <origin xyz="2.10942e-15 -4.01762e-15 0.0195" rpy="3.14159 1.5708 0"/>
      <geometry>
        <mesh filename="package://assets/part_3.stl"/>
      </geometry>
    </collision>
    <!-- Part bearing_5_16_5_3 -->
    <visual>
      <origin xyz="-5.32907e-15 -0.01594 0.02" rpy="-1.87698e-12 -1.54943 2.12906e-12"/>
      <geometry>
        <mesh filename="package://assets/bearing_5_16_5.stl"/>
      </geometry>
      <material name="bearing_5_16_5_3_material">
        <color rgba="0.917647 0.917647 0.917647 1"/>
      </material>
    </visual>
    <collision>
      <origin xyz="-5.32907e-15 -0.01594 0.02" rpy="-1.87698e-12 -1.54943 2.12906e-12"/>
      <geometry>
        <mesh filename="package://assets/bearing_5_16_5.stl"/>
      </geometry>
    </collision>
    <!-- Part bearing_15_21_4_6 -->
    <visual>
      <origin xyz="0 0 0" rpy="1.5708 -8.62817e-32 1.7033e-31"/>
      <geometry>
        <mesh filename="package://assets/bearing_15_21_4.stl"/>
      </geometry>
      <material name="bearing_15_21_4_6_material">
        <color rgba="0.647059 0.647059 0.647059 1"/>
      </material>
    </visual>
    <collision>
      <origin xyz="0 0 0" rpy="1.5708 -8.62817e-32 1.7033e-31"/>
      <geometry>
        <mesh filename="package://assets/bearing_15_21_4.stl"/>
      </geometry>
    </collision>
    <!-- Part hex_socket_head_cap_screw_m2_5x0_45_x_6__ec244025d76f8b83b2775022a2cb3232_9 -->
    <!-- Part hex_socket_head_cap_screw_m2_5x0_45_x_6__ec244025d76f8b83b2775022a2cb3232_10 -->
    <!-- Part part_3_3 -->
    <visual>
      <origin xyz="2.55351e-15 -6.38378e-16 0.0205" rpy="-3.14159 -1.5708 0"/>
      <geometry>
        <mesh filename="package://assets/part_3.stl"/>
      </geometry>
      <material name="part_3_3_material">
        <color rgba="1 0 0 1"/>
      </material>
    </visual>
    <collision>
      <origin xyz="2.55351e-15 -6.38378e-16 0.0205" rpy="-3.14159 -1.5708 0"/>
      <geometry>
        <mesh filename="package://assets/part_3.stl"/>
      </geometry>
    </collision>
    <!-- Part hex_socket_head_cap_screw_m2_5x0_45_x_6__ec244025d76f8b83b2775022a2cb3232_11 -->
    <!-- Part hex_socket_head_cap_screw_m2_5x0_45_x_6__ec244025d76f8b83b2775022a2cb3232_12 -->
    <!-- Part bearing_5_16_5_4 -->
    <visual>
      <origin xyz="-6.99441e-15 0.0209456 0.02" rpy="-3.14159 0.0146585 3.14159"/>
      <geometry>
        <mesh filename="package://assets/bearing_5_16_5.stl"/>
      </geometry>
      <material name="bearing_5_16_5_4_material">
        <color rgba="0.917647 0.917647 0.917647 1"/>
      </material>
    </visual>
    <collision>
      <origin xyz="-6.99441e-15 0.0209456 0.02" rpy="-3.14159 0.0146585 3.14159"/>
      <geometry>
        <mesh filename="package://assets/bearing_5_16_5.stl"/>
      </geometry>
    </collision>
    <!-- Part spacer_ujoint_2 -->
    <visual>
      <origin xyz="-6.66134e-15 5.64895e-06 0.02" rpy="3.14159 1.55614 -3.23576e-12"/>
      <geometry>
        <mesh filename="package://assets/spacer_ujoint.stl"/>
      </geometry>
      <material name="spacer_ujoint_2_material">
        <color rgba="0.917647 0.917647 0.917647 1"/>
      </material>
    </visual>
    <collision>
      <origin xyz="-6.66134e-15 5.64895e-06 0.02" rpy="3.14159 1.55614 -3.23576e-12"/>
      <geometry>
        <mesh filename="package://assets/spacer_ujoint.stl"/>
      </geometry>
    </collision>
    <!-- Part bearing_15_21_4_7 -->
    <visual>
      <origin xyz="7.77156e-16 1.88044e-15 0.04" rpy="-1.5708 1.67921e-15 3.14159"/>
      <geometry>
        <mesh filename="package://assets/bearing_15_21_4.stl"/>
      </geometry>
      <material name="bearing_15_21_4_7_material">
        <color rgba="0.647059 0.647059 0.647059 1"/>
      </material>
    </visual>
    <collision>
      <origin xyz="7.77156e-16 1.88044e-15 0.04" rpy="-1.5708 1.67921e-15 3.14159"/>
      <geometry>
        <mesh filename="package://assets/bearing_15_21_4.stl"/>
      </geometry>
    </collision>
  </link>
  <!-- Link foot_subassembly -->
  <link name="foot_subassembly">
    <inertial>
      <origin xyz="8.52312e-09 -0.0138418 -0.052232" rpy="0 0 0"/>
      <mass value="0.122498"/>
      <inertia ixx="0.000163413" ixy="-1.15065e-10" ixz="-2.96383e-11" iyy="0.000162266" iyz="1.11374e-05" izz="7.07692e-05"/>
    </inertial>
    <!-- Part hex_socket_head_cap_screw_m2_5x0_45_x_6__ec244025d76f8b83b2775022a2cb3232_13 -->
    <!-- Part 27628_01_050_catpart_3 -->
    <visual>
      <origin xyz="0.021 3.53792e-08 -0.0660002" rpy="-3.14159 -4.49847e-16 1.5708"/>
      <geometry>
        <mesh filename="package://assets/27628_01_050_catpart.stl"/>
      </geometry>
      <material name="27628_01_050_catpart_3_material">
        <color rgba="0.690196 0.690196 0.690196 1"/>
      </material>
    </visual>
    <collision>
      <origin xyz="0.021 3.53792e-08 -0.0660002" rpy="-3.14159 -4.49847e-16 1.5708"/>
      <geometry>
        <mesh filename="package://assets/27628_01_050_catpart.stl"/>
      </geometry>
    </collision>
    <!-- Part hex_socket_head_cap_screw_m2_5x0_45_x_6__ec244025d76f8b83b2775022a2cb3232_14 -->
    <!-- Part 07534_05x20_catpart_3 -->
    <visual>
      <origin xyz="0.036 1.11022e-16 -0.066" rpy="-3.14159 -1.44819e-31 3.14159"/>
      <geometry>
        <mesh filename="package://assets/07534_05x20_catpart.stl"/>
      </geometry>
      <material name="07534_05x20_catpart_3_material">
        <color rgba="0.690196 0.690196 0.690196 1"/>
      </material>
    </visual>
    <collision>
      <origin xyz="0.036 1.11022e-16 -0.066" rpy="-3.14159 -1.44819e-31 3.14159"/>
      <geometry>
        <mesh filename="package://assets/07534_05x20_catpart.stl"/>
      </geometry>
    </collision>
    <!-- Part 27628_01_050_catpart_4 -->
    <visual>
      <origin xyz="-0.021 -1.89504e-08 -0.066" rpy="3.14159 -4.7147e-16 1.5708"/>
      <geometry>
        <mesh filename="package://assets/27628_01_050_catpart.stl"/>
      </geometry>
      <material name="27628_01_050_catpart_4_material">
        <color rgba="0.690196 0.690196 0.690196 1"/>
      </material>
    </visual>
    <collision>
      <origin xyz="-0.021 -1.89504e-08 -0.066" rpy="3.14159 -4.7147e-16 1.5708"/>
      <geometry>
        <mesh filename="package://assets/27628_01_050_catpart.stl"/>
      </geometry>
    </collision>
    <!-- Part 07534_05x20_catpart_4 -->
    <visual>
      <origin xyz="-0.036 1.11022e-16 -0.066" rpy="2.97007e-16 1.21898e-30 -5.19326e-15"/>
      <geometry>
        <mesh filename="package://assets/07534_05x20_catpart.stl"/>
      </geometry>
      <material name="07534_05x20_catpart_4_material">
        <color rgba="0.690196 0.690196 0.690196 1"/>
      </material>
    </visual>
    <collision>
      <origin xyz="-0.036 1.11022e-16 -0.066" rpy="2.97007e-16 1.21898e-30 -5.19326e-15"/>
      <geometry>
        <mesh filename="package://assets/07534_05x20_catpart.stl"/>
      </geometry>
    </collision>
    <!-- Part hat_small -->
    <visual>
      <origin xyz="6.66134e-16 -0.035 -0.0385" rpy="-1.5708 -1.5708 0"/>
      <geometry>
        <mesh filename="package://assets/hat_small.stl"/>
      </geometry>
      <material name="hat_small_material">
        <color rgba="1 0 0 1"/>
      </material>
    </visual>
    <collision>
      <origin xyz="6.66134e-16 -0.035 -0.0385" rpy="-1.5708 -1.5708 0"/>
      <geometry>
        <mesh filename="package://assets/hat_small.stl"/>
      </geometry>
    </collision>
    <!-- Part hex_socket_head_cap_screw_m2_5x0_45_x_6__ec244025d76f8b83b2775022a2cb3232_15 -->
    <!-- Part foot -->
    <visual>
      <origin xyz="1.11022e-16 -0.035 -0.0385" rpy="-1.5708 -1.5708 0"/>
      <geometry>
        <mesh filename="package://assets/foot.stl"/>
      </geometry>
      <material name="foot_material">
        <color rgba="0.301961 0.301961 0.301961 1"/>
      </material>
    </visual>
    <collision>
      <origin xyz="1.11022e-16 -0.035 -0.0385" rpy="-1.5708 -1.5708 0"/>
      <geometry>
        <mesh filename="package://assets/foot.stl"/>
      </geometry>
    </collision>
  </link>
  <!-- Frame foot_right (dummy link + fixed joint) -->
  <link name="foot_right">
    <origin xyz="0 0 0" rpy="0 -0 0"/>
    <inertial>
      <origin xyz="0 0 0" rpy="0 0 0"/>
      <mass value="1e-9"/>
      <inertia ixx="0" ixy="0" ixz="0" iyy="0" iyz="0" izz="0"/>
    </inertial>
  </link>
  <joint name="foot_right_frame" type="fixed">
    <origin xyz="-6.35351e-08 -0.035 -0.0480606" rpy="-1.5708 1.5708 0"/>
    <parent link="foot_subassembly"/>
    <child link="foot_right"/>
    <axis xyz="0 0 0"/>
  </joint>
  <!-- Joint from ankle_subassembly to foot_subassembly -->
  <joint name="anklex_right" type="revolute">
    <origin xyz="-5.32907e-15 -0.01594 0.02" rpy="1.5708 1.5708 0"/>
    <parent link="ankle_subassembly"/>
    <child link="foot_subassembly"/>
    <axis xyz="0 0 1"/>
    <limit effort="10" velocity="10" lower="-3.141592653589793" upper="3.141592653589793"/>
  </joint>
  <!-- Joint from shin_subassembly to ankle_subassembly -->
  <joint name="ankley_right" type="revolute">
    <origin xyz="-0.221803 -0.135659 0.02" rpy="-3.14159 -6.73195e-15 1.16452"/>
    <parent link="shin_subassembly"/>
    <child link="ankle_subassembly"/>
    <axis xyz="0 0 1"/>
    <limit effort="10" velocity="10" lower="-3.141592653589793" upper="3.141592653589793"/>
  </joint>
  <!-- Joint from tigh_subassembly to shin_subassembly -->
  <joint name="knee_right" type="revolute">
    <origin xyz="0.17 0.294449 -0.0305" rpy="3.14159 -1.53592e-13 -0.544439"/>
    <parent link="tigh_subassembly"/>
    <child link="shin_subassembly"/>
    <axis xyz="0 0 1"/>
    <limit effort="10" velocity="10" lower="-3.141592653589793" upper="3.141592653589793"/>
  </joint>
  <!-- Joint from hipy_subassembly to tigh_subassembly -->
  <joint name="hipy_right" type="revolute">
    <origin xyz="0.012638 -0.0276823 -0.112055" rpy="-1.64549 0.446566 -2.74613"/>
    <parent link="hipy_subassembly"/>
    <child link="tigh_subassembly"/>
    <axis xyz="0 0 1"/>
    <limit effort="10" velocity="10" lower="-3.141592653589793" upper="3.141592653589793"/>
  </joint>
  <!-- Joint from hipx_subassembly to hipy_subassembly -->
  <joint name="hipx_right" type="revolute">
    <origin xyz="-0.01897 -0.0289 -0.09689" rpy="-0.0593605 0.3145 -2.3413"/>
    <parent link="hipx_subassembly"/>
    <child link="hipy_subassembly"/>
    <axis xyz="0 0 1"/>
    <limit effort="10" velocity="10" lower="-3.141592653589793" upper="3.141592653589793"/>
  </joint>
  <!-- Joint from torso_subassembly to hipx_subassembly -->
  <joint name="hipz_right" type="revolute">
    <origin xyz="-0.000819037 -0.133159 0.04164" rpy="0.0475276 0.133035 -1.20169"/>
    <parent link="torso_subassembly"/>
    <child link="hipx_subassembly"/>
    <axis xyz="0 0 1"/>
    <limit effort="10" velocity="10" lower="-3.141592653589793" upper="3.141592653589793"/>
  </joint>
  <!-- Link hipx_subassemby_sym -->
  <link name="hipx_subassemby_sym">
    <inertial>
      <origin xyz="-0.0179432 0.0274245 -0.0837272" rpy="0 0 0"/>
      <mass value="0.794016"/>
      <inertia ixx="0.00093784" ixy="4.40289e-05" ixz="-0.000110464" iyy="0.000903443" iyz="0.000168604" izz="0.00100402"/>
    </inertial>
    <!-- Part rs02_2 -->
    <!-- Part hex_socket_head_cap_screw_m4x0_70_x_40__14321d45d56569246e7feb4574a6bae6_15 -->
    <!-- Part robstride02_2 -->
    <visual>
      <origin xyz="-0.575896 0.057308 -0.20175" rpy="-1.84488 -0.167023 0.0467087"/>
      <geometry>
        <mesh filename="package://assets/robstride02.stl"/>
      </geometry>
      <material name="robstride02_2_material">
        <color rgba="0.301961 0.301961 0.301961 1"/>
      </material>
    </visual>
    <collision>
      <origin xyz="-0.575896 0.057308 -0.20175" rpy="-1.84488 -0.167023 0.0467087"/>
      <geometry>
        <mesh filename="package://assets/robstride02.stl"/>
      </geometry>
    </collision>
    <!-- Part hex_socket_head_cap_screw_m3x0_50_x_8__d566997e1880d7fd3377c5b0ee12206c_28 -->
    <!-- Part hex_socket_head_cap_screw_m3x0_50_x_8__d566997e1880d7fd3377c5b0ee12206c_29 -->
    <!-- Part hex_socket_head_cap_screw_m3x0_50_x_8__d566997e1880d7fd3377c5b0ee12206c_30 -->
    <!-- Part hex_socket_head_cap_screw_m3x0_50_x_8__d566997e1880d7fd3377c5b0ee12206c_31 -->
    <!-- Part hipz22_sym -->
    <visual>
      <origin xyz="2.77556e-17 1.38778e-17 0.1" rpy="-1.05331e-18 -4.68297e-19 -1.631e-17"/>
      <geometry>
        <mesh filename="package://assets/hipz22_sym.stl"/>
      </geometry>
      <material name="hipz22_sym_material">
        <color rgba="1 0 0 1"/>
      </material>
    </visual>
    <collision>
      <origin xyz="2.77556e-17 1.38778e-17 0.1" rpy="-1.05331e-18 -4.68297e-19 -1.631e-17"/>
      <geometry>
        <mesh filename="package://assets/hipz22_sym.stl"/>
      </geometry>
    </collision>
    <!-- Part hex_socket_head_cap_screw_m4x0_70_x_40__14321d45d56569246e7feb4574a6bae6_16 -->
    <!-- Part hipz12_sym -->
    <visual>
      <origin xyz="2.22045e-16 0 0.1" rpy="6.16608e-16 2.7011e-17 1.51592e-16"/>
      <geometry>
        <mesh filename="package://assets/hipz12_sym.stl"/>
      </geometry>
      <material name="hipz12_sym_material">
        <color rgba="1 0 0 1"/>
      </material>
    </visual>
    <collision>
      <origin xyz="2.22045e-16 0 0.1" rpy="6.16608e-16 2.7011e-17 1.51592e-16"/>
      <geometry>
        <mesh filename="package://assets/hipz12_sym.stl"/>
      </geometry>
    </collision>
    <!-- Part xt_30_2x2_f_5 -->
    <visual>
      <origin xyz="-0.0280156 0.0769561 -0.0718124" rpy="-0.490825 -1.25093 2.15149"/>
      <geometry>
        <mesh filename="package://assets/xt_30_2x2_f.stl"/>
      </geometry>
      <material name="xt_30_2x2_f_5_material">
        <color rgba="0.917647 0.917647 0.917647 1"/>
      </material>
    </visual>
    <collision>
      <origin xyz="-0.0280156 0.0769561 -0.0718124" rpy="-0.490825 -1.25093 2.15149"/>
      <geometry>
        <mesh filename="package://assets/xt_30_2x2_f.stl"/>
      </geometry>
    </collision>
    <!-- Part hex_socket_head_cap_screw_m3x0_50_x_8__d566997e1880d7fd3377c5b0ee12206c_32 -->
    <!-- Part hex_socket_head_cap_screw_m3x0_50_x_8__d566997e1880d7fd3377c5b0ee12206c_33 -->
    <!-- Part hex_socket_head_cap_screw_m3x0_50_x_8__d566997e1880d7fd3377c5b0ee12206c_34 -->
    <!-- Part hex_socket_head_cap_screw_m4x0_70_x_40__14321d45d56569246e7feb4574a6bae6_17 -->
    <!-- Part hex_socket_head_cap_screw_m3x0_50_x_8__d566997e1880d7fd3377c5b0ee12206c_35 -->
    <!-- Part hex_socket_head_cap_screw_m4x0_70_x_40__14321d45d56569246e7feb4574a6bae6_18 -->
    <!-- Part hex_socket_head_cap_screw_m4x0_70_x_40__14321d45d56569246e7feb4574a6bae6_19 -->
    <!-- Part hex_socket_head_cap_screw_m4x0_70_x_40__14321d45d56569246e7feb4574a6bae6_20 -->
    <!-- Part hex_socket_head_cap_screw_m3x0_50_x_8__d566997e1880d7fd3377c5b0ee12206c_36 -->
    <!-- Part hex_socket_head_cap_screw_m4x0_70_x_40__14321d45d56569246e7feb4574a6bae6_21 -->
    <!-- Part hex_socket_head_cap_screw_m3x0_50_x_8__d566997e1880d7fd3377c5b0ee12206c_37 -->
    <!-- Part hex_socket_head_cap_screw_m3x0_50_x_8__d566997e1880d7fd3377c5b0ee12206c_38 -->
    <!-- Part hex_socket_head_cap_screw_m4x0_70_x_40__14321d45d56569246e7feb4574a6bae6_22 -->
    <!-- Part bearing_35_72_17_4 -->
    <visual>
      <origin xyz="-0.01759 0.0267968 -0.104484" rpy="1.29671 -0.167023 0.0467087"/>
      <geometry>
        <mesh filename="package://assets/bearing_35_72_17.stl"/>
      </geometry>
      <material name="bearing_35_72_17_4_material">
        <color rgba="0.768627 0.886275 0.952941 1"/>
      </material>
    </visual>
    <collision>
      <origin xyz="-0.01759 0.0267968 -0.104484" rpy="1.29671 -0.167023 0.0467087"/>
      <geometry>
        <mesh filename="package://assets/bearing_35_72_17.stl"/>
      </geometry>
    </collision>
    <!-- Part hex_socket_head_cap_screw_m3x0_50_x_8__d566997e1880d7fd3377c5b0ee12206c_39 -->
    <!-- Part hex_socket_head_cap_screw_m4x0_70_x_40__14321d45d56569246e7feb4574a6bae6_23 -->
    <!-- Part hex_socket_head_cap_screw_m3x0_50_x_8__d566997e1880d7fd3377c5b0ee12206c_40 -->
    <!-- Part hex_socket_head_cap_screw_m3x0_50_x_8__d566997e1880d7fd3377c5b0ee12206c_41 -->
    <!-- Part hex_socket_head_cap_screw_m4x0_70_x_40__14321d45d56569246e7feb4574a6bae6_24 -->
    <!-- Part hex_socket_head_cap_screw_m3x0_50_x_8__d566997e1880d7fd3377c5b0ee12206c_42 -->
  </link>
  <!-- Link hipy_subassembly_sym -->
  <link name="hipy_subassembly_sym">
    <inertial>
      <origin xyz="0.0047654 0.00266393 -0.0607296" rpy="0 0 0"/>
      <mass value="0.241619"/>
      <inertia ixx="0.000504046" ixy="-2.43365e-05" ixz="7.8493e-06" iyy="0.000455768" iyz="3.61482e-05" izz="0.000428972"/>
    </inertial>
    <!-- Part hex_socket_head_cap_screw_m4x0_70_x_12__c825518ee8edf1afced0eee1b019b750_11 -->
    <!-- Part hex_socket_head_cap_screw_m4x0_70_x_12__c825518ee8edf1afced0eee1b019b750_12 -->
    <!-- Part hex_socket_head_cap_screw_m4x0_70_x_12__c825518ee8edf1afced0eee1b019b750_13 -->
    <!-- Part hex_socket_head_cap_screw_m4x0_70_x_12__c825518ee8edf1afced0eee1b019b750_14 -->
    <!-- Part hex_socket_head_cap_screw_m4x0_70_x_20__832e47d784177ea3f1dabbaab534416e_23 -->
    <!-- Part hex_socket_head_cap_screw_m4x0_70_x_20__832e47d784177ea3f1dabbaab534416e_24 -->
    <!-- Part hipxy_sym -->
    <visual>
      <origin xyz="-1.30104e-18 0 0" rpy="3.14159 -4.67642e-17 -6.93155e-17"/>
      <geometry>
        <mesh filename="package://assets/hipxy_sym.stl"/>
      </geometry>
      <material name="hipxy_sym_material">
        <color rgba="1 0 0 1"/>
      </material>
    </visual>
    <collision>
      <origin xyz="-1.30104e-18 0 0" rpy="3.14159 -4.67642e-17 -6.93155e-17"/>
      <geometry>
        <mesh filename="package://assets/hipxy_sym.stl"/>
      </geometry>
    </collision>
    <!-- Part hex_socket_head_cap_screw_m4x0_70_x_12__c825518ee8edf1afced0eee1b019b750_15 -->
    <!-- Part hex_socket_head_cap_screw_m4x0_70_x_20__832e47d784177ea3f1dabbaab534416e_25 -->
    <!-- Part hex_socket_head_cap_screw_m4x0_70_x_12__c825518ee8edf1afced0eee1b019b750_16 -->
    <!-- Part hex_socket_head_cap_screw_m4x0_70_x_20__832e47d784177ea3f1dabbaab534416e_26 -->
    <!-- Part hex_socket_head_cap_screw_m4x0_70_x_20__832e47d784177ea3f1dabbaab534416e_27 -->
    <!-- Part hex_socket_head_cap_screw_m4x0_70_x_20__832e47d784177ea3f1dabbaab534416e_28 -->
  </link>
  <!-- Link tigh_subassembly_sym -->
  <link name="tigh_subassembly_sym">
    <inertial>
      <origin xyz="-0.0431321 -0.0830741 -0.0353867" rpy="0 0 0"/>
      <mass value="2.5804"/>
      <inertia ixx="0.0180602" ixy="-0.00802639" ixz="-0.00087206" iyy="0.00826187" iyz="-0.00158484" izz="0.0238429"/>
    </inertial>
    <!-- Part knee_rod22_sym -->
    <visual>
      <origin xyz="-0.058 -0.280519 0.0295" rpy="-1.5708 7.85393e-15 -4.8024e-15"/>
      <geometry>
        <mesh filename="package://assets/knee_rod22_sym.stl"/>
      </geometry>
      <material name="knee_rod22_sym_material">
        <color rgba="0.917647 0.917647 0.917647 1"/>
      </material>
    </visual>
    <collision>
      <origin xyz="-0.058 -0.280519 0.0295" rpy="-1.5708 7.85393e-15 -4.8024e-15"/>
      <geometry>
        <mesh filename="package://assets/knee_rod22_sym.stl"/>
      </geometry>
    </collision>
    <!-- Part hex_socket_head_cap_screw_m4x0_70_x_16__8d628c0d7a90368385b1c4c7479647eb_7 -->
    <!-- Part hex_socket_head_cap_screw_m2_5x0_45_x_6__ec244025d76f8b83b2775022a2cb3232_16 -->
    <!-- Part hex_socket_head_cap_screw_m4x0_70_x_8__a416dc2a8d778a4ef6150c0739aa89d1_15 -->
    <!-- Part hex_socket_head_cap_screw_m4x0_70_x_8__a416dc2a8d778a4ef6150c0739aa89d1_16 -->
    <!-- Part hex_socket_head_cap_screw_m4x0_70_x_8__a416dc2a8d778a4ef6150c0739aa89d1_17 -->
    <!-- Part hex_socket_head_cap_screw_m2_5x0_45_x_6__ec244025d76f8b83b2775022a2cb3232_17 -->
    <!-- Part hex_socket_head_cap_screw_m4x0_70_x_16__8d628c0d7a90368385b1c4c7479647eb_8 -->
    <!-- Part hex_socket_head_cap_screw_m4x0_70_x_40__14321d45d56569246e7feb4574a6bae6_25 -->
    <!-- Part hex_socket_head_cap_screw_m4x0_70_x_8__a416dc2a8d778a4ef6150c0739aa89d1_18 -->
    <!-- Part hex_socket_head_cap_screw_m4x0_70_x_8__a416dc2a8d778a4ef6150c0739aa89d1_19 -->
    <!-- Part hex_socket_head_cap_screw_m4x0_70_x_8__a416dc2a8d778a4ef6150c0739aa89d1_20 -->
    <!-- Part hex_socket_head_cap_screw_m4x0_70_x_16__8d628c0d7a90368385b1c4c7479647eb_9 -->
    <!-- Part bearing_15_21_4_8 -->
    <visual>
      <origin xyz="-0.221927 -0.268257 -0.0185" rpy="-1.5708 -3.39596e-14 1.5708"/>
      <geometry>
        <mesh filename="package://assets/bearing_15_21_4.stl"/>
      </geometry>
      <material name="bearing_15_21_4_8_material">
        <color rgba="0.647059 0.647059 0.647059 1"/>
      </material>
    </visual>
    <collision>
      <origin xyz="-0.221927 -0.268257 -0.0185" rpy="-1.5708 -3.39596e-14 1.5708"/>
      <geometry>
        <mesh filename="package://assets/bearing_15_21_4.stl"/>
      </geometry>
    </collision>
    <!-- Part part_3_4 -->
    <visual>
      <origin xyz="-2.59515e-15 5.00988e-15 -0.0938" rpy="0.523599 1.5708 0"/>
      <geometry>
        <mesh filename="package://assets/part_3.stl"/>
      </geometry>
      <material name="part_3_4_material">
        <color rgba="1 0 0 1"/>
      </material>
    </visual>
    <collision>
      <origin xyz="-2.59515e-15 5.00988e-15 -0.0938" rpy="0.523599 1.5708 0"/>
      <geometry>
        <mesh filename="package://assets/part_3.stl"/>
      </geometry>
    </collision>
    <!-- Part bearing_15_21_4_9 -->
    <visual>
      <origin xyz="-0.102915 -0.0784891 -0.0245" rpy="-1.5708 7.8548e-15 -4.73334e-15"/>
      <geometry>
        <mesh filename="package://assets/bearing_15_21_4.stl"/>
      </geometry>
      <material name="bearing_15_21_4_9_material">
        <color rgba="0.647059 0.647059 0.647059 1"/>
      </material>
    </visual>
    <collision>
      <origin xyz="-0.102915 -0.0784891 -0.0245" rpy="-1.5708 7.8548e-15 -4.73334e-15"/>
      <geometry>
        <mesh filename="package://assets/bearing_15_21_4.stl"/>
      </geometry>
    </collision>
    <!-- Part hex_socket_head_cap_screw_m4x0_70_x_40__14321d45d56569246e7feb4574a6bae6_26 -->
    <!-- Part hex_socket_head_cap_screw_m4x0_70_x_8__a416dc2a8d778a4ef6150c0739aa89d1_21 -->
    <!-- Part bearing_15_21_4_10 -->
    <visual>
      <origin xyz="-3.02536e-15 3.48332e-15 -0.0675" rpy="-1.5708 -1.49311e-14 2.61799"/>
      <geometry>
        <mesh filename="package://assets/bearing_15_21_4.stl"/>
      </geometry>
      <material name="bearing_15_21_4_10_material">
        <color rgba="0.647059 0.647059 0.647059 1"/>
      </material>
    </visual>
    <collision>
      <origin xyz="-3.02536e-15 3.48332e-15 -0.0675" rpy="-1.5708 -1.49311e-14 2.61799"/>
      <geometry>
        <mesh filename="package://assets/bearing_15_21_4.stl"/>
      </geometry>
    </collision>
    <!-- Part bearing_15_21_4_11 -->
    <visual>
      <origin xyz="-0.102915 -0.0784891 -0.0365" rpy="1.5708 7.85393e-15 -4.8024e-15"/>
      <geometry>
        <mesh filename="package://assets/bearing_15_21_4.stl"/>
      </geometry>
      <material name="bearing_15_21_4_11_material">
        <color rgba="0.647059 0.647059 0.647059 1"/>
      </material>
    </visual>
    <collision>
      <origin xyz="-0.102915 -0.0784891 -0.0365" rpy="1.5708 7.85393e-15 -4.8024e-15"/>
      <geometry>
        <mesh filename="package://assets/bearing_15_21_4.stl"/>
      </geometry>
    </collision>
    <!-- Part bearing_15_21_4_12 -->
    <visual>
      <origin xyz="-0.221927 -0.268257 -0.0465" rpy="-1.5708 -3.33591e-14 1.5708"/>
      <geometry>
        <mesh filename="package://assets/bearing_15_21_4.stl"/>
      </geometry>
      <material name="bearing_15_21_4_12_material">
        <color rgba="0.647059 0.647059 0.647059 1"/>
      </material>
    </visual>
    <collision>
      <origin xyz="-0.221927 -0.268257 -0.0465" rpy="-1.5708 -3.33591e-14 1.5708"/>
      <geometry>
        <mesh filename="package://assets/bearing_15_21_4.stl"/>
      </geometry>
    </collision>
    <!-- Part hex_socket_head_cap_screw_m2_5x0_45_x_6__ec244025d76f8b83b2775022a2cb3232_18 -->
    <!-- Part hex_socket_head_cap_screw_m4x0_70_x_16__8d628c0d7a90368385b1c4c7479647eb_10 -->
    <!-- Part hex_socket_head_cap_screw_m4x0_70_x_8__a416dc2a8d778a4ef6150c0739aa89d1_22 -->
    <!-- Part hex_socket_head_cap_screw_m4x0_70_x_40__14321d45d56569246e7feb4574a6bae6_27 -->
    <!-- Part femur_12_sym -->
    <visual>
      <origin xyz="-0.17 -0.294449 0.0295" rpy="-1.5708 1.49582e-14 -0.523599"/>
      <geometry>
        <mesh filename="package://assets/femur_12_sym.stl"/>
      </geometry>
      <material name="femur_12_sym_material">
        <color rgba="1 0 0 1"/>
      </material>
    </visual>
    <collision>
      <origin xyz="-0.17 -0.294449 0.0295" rpy="-1.5708 1.49582e-14 -0.523599"/>
      <geometry>
        <mesh filename="package://assets/femur_12_sym.stl"/>
      </geometry>
    </collision>
    <!-- Part bearing_5_16_5_5 -->
    <visual>
      <origin xyz="-0.17 -0.294449 -0.045" rpy="1.5708 -1.51756e-14 2.61799"/>
      <geometry>
        <mesh filename="package://assets/bearing_5_16_5.stl"/>
      </geometry>
      <material name="bearing_5_16_5_5_material">
        <color rgba="0.917647 0.917647 0.917647 1"/>
      </material>
    </visual>
    <collision>
      <origin xyz="-0.17 -0.294449 -0.045" rpy="1.5708 -1.51756e-14 2.61799"/>
      <geometry>
        <mesh filename="package://assets/bearing_5_16_5.stl"/>
      </geometry>
    </collision>
    <!-- Part hex_socket_head_cap_screw_m3x0_50_x_10__9c80fcbba574884e63b580474e1ee150_28 -->
    <!-- Part hex_socket_head_cap_screw_m4x0_70_x_40__14321d45d56569246e7feb4574a6bae6_28 -->
    <!-- Part hex_socket_head_cap_screw_m4x0_70_x_16__8d628c0d7a90368385b1c4c7479647eb_11 -->
    <!-- Part hex_socket_head_cap_screw_m2_5x0_45_x_6__ec244025d76f8b83b2775022a2cb3232_19 -->
    <!-- Part hex_socket_head_cap_screw_m4x0_70_x_8__a416dc2a8d778a4ef6150c0739aa89d1_23 -->
    <!-- Part hex_socket_head_cap_screw_m2_5x0_45_x_6__ec244025d76f8b83b2775022a2cb3232_20 -->
    <!-- Part hex_socket_head_cap_screw_m4x0_70_x_16__8d628c0d7a90368385b1c4c7479647eb_12 -->
    <!-- Part knee_actuation_2 -->
    <visual>
      <origin xyz="-0.058 0.123541 -0.0305" rpy="1.5708 7.84979e-15 -4.37485e-15"/>
      <geometry>
        <mesh filename="package://assets/knee_actuation.stl"/>
      </geometry>
      <material name="knee_actuation_2_material">
        <color rgba="0.917647 0.917647 0.917647 1"/>
      </material>
    </visual>
    <collision>
      <origin xyz="-0.058 0.123541 -0.0305" rpy="1.5708 7.84979e-15 -4.37485e-15"/>
      <geometry>
        <mesh filename="package://assets/knee_actuation.stl"/>
      </geometry>
    </collision>
    <!-- Part femur_22_sym -->
    <visual>
      <origin xyz="-0.17 -0.294449 0.0295" rpy="-1.5708 1.4959e-14 -0.523599"/>
      <geometry>
        <mesh filename="package://assets/femur_22_sym.stl"/>
      </geometry>
      <material name="femur_22_sym_material">
        <color rgba="1 0 0 1"/>
      </material>
    </visual>
    <collision>
      <origin xyz="-0.17 -0.294449 0.0295" rpy="-1.5708 1.4959e-14 -0.523599"/>
      <geometry>
        <mesh filename="package://assets/femur_22_sym.stl"/>
      </geometry>
    </collision>
    <!-- Part hat_femur_2 -->
    <visual>
      <origin xyz="-0.17 -0.294449 -0.0305" rpy="1.5708 -1.51756e-14 2.61799"/>
      <geometry>
        <mesh filename="package://assets/hat_femur.stl"/>
      </geometry>
      <material name="hat_femur_2_material">
        <color rgba="1 0 0 1"/>
      </material>
    </visual>
    <collision>
      <origin xyz="-0.17 -0.294449 -0.0305" rpy="1.5708 -1.51756e-14 2.61799"/>
      <geometry>
        <mesh filename="package://assets/hat_femur.stl"/>
      </geometry>
    </collision>
    <!-- Part hex_socket_head_cap_screw_m4x0_70_x_8__a416dc2a8d778a4ef6150c0739aa89d1_24 -->
    <!-- Part hex_socket_head_cap_screw_m3x0_50_x_10__9c80fcbba574884e63b580474e1ee150_29 -->
    <!-- Part bearing_5_16_5_6 -->
    <visual>
      <origin xyz="-0.17 -0.294449 -0.013" rpy="-1.5708 -1.31012e-14 2.61799"/>
      <geometry>
        <mesh filename="package://assets/bearing_5_16_5.stl"/>
      </geometry>
      <material name="bearing_5_16_5_6_material">
        <color rgba="0.917647 0.917647 0.917647 1"/>
      </material>
    </visual>
    <collision>
      <origin xyz="-0.17 -0.294449 -0.013" rpy="-1.5708 -1.31012e-14 2.61799"/>
      <geometry>
        <mesh filename="package://assets/bearing_5_16_5.stl"/>
      </geometry>
    </collision>
    <!-- Part robstrideo3_3 -->
    <visual>
      <origin xyz="0.655402 -0.194111 -0.0025" rpy="1.5708 -1.53968e-14 2.61799"/>
      <geometry>
        <mesh filename="package://assets/robstrideo3.stl"/>
      </geometry>
      <material name="robstrideo3_3_material">
        <color rgba="0.301961 0.301961 0.301961 1"/>
      </material>
    </visual>
    <collision>
      <origin xyz="0.655402 -0.194111 -0.0025" rpy="1.5708 -1.53968e-14 2.61799"/>
      <geometry>
        <mesh filename="package://assets/robstrideo3.stl"/>
      </geometry>
    </collision>
    <!-- Part hex_socket_head_cap_screw_m4x0_70_x_8__a416dc2a8d778a4ef6150c0739aa89d1_25 -->
    <!-- Part hex_socket_head_cap_screw_m4x0_70_x_8__a416dc2a8d778a4ef6150c0739aa89d1_26 -->
    <!-- Part hex_socket_head_cap_screw_m4x0_70_x_8__a416dc2a8d778a4ef6150c0739aa89d1_27 -->
    <!-- Part knee_rod12_sym -->
    <visual>
      <origin xyz="-0.058 -0.280519 0.0295" rpy="-1.5708 7.85373e-15 -4.93885e-15"/>
      <geometry>
        <mesh filename="package://assets/knee_rod12_sym.stl"/>
      </geometry>
      <material name="knee_rod12_sym_material">
        <color rgba="0.917647 0.917647 0.917647 1"/>
      </material>
    </visual>
    <collision>
      <origin xyz="-0.058 -0.280519 0.0295" rpy="-1.5708 7.85373e-15 -4.93885e-15"/>
      <geometry>
        <mesh filename="package://assets/knee_rod12_sym.stl"/>
      </geometry>
    </collision>
    <!-- Part hex_socket_head_cap_screw_m3x0_50_x_10__9c80fcbba574884e63b580474e1ee150_30 -->
    <!-- Part hex_socket_head_cap_screw_m2_5x0_45_x_6__ec244025d76f8b83b2775022a2cb3232_21 -->
    <!-- Part hex_socket_head_cap_screw_m4x0_70_x_8__a416dc2a8d778a4ef6150c0739aa89d1_28 -->
    <!-- Part robstrideo3_4 -->
    <visual>
      <origin xyz="0.597402 -0.29457 -0.045" rpy="1.5708 -1.53968e-14 2.61799"/>
      <geometry>
        <mesh filename="package://assets/robstrideo3.stl"/>
      </geometry>
      <material name="robstrideo3_4_material">
        <color rgba="0.301961 0.301961 0.301961 1"/>
      </material>
    </visual>
    <collision>
      <origin xyz="0.597402 -0.29457 -0.045" rpy="1.5708 -1.53968e-14 2.61799"/>
      <geometry>
        <mesh filename="package://assets/robstrideo3.stl"/>
      </geometry>
    </collision>
    <!-- Part 1_1_31_qt_942_1_3 -->
    <visual>
      <origin xyz="-4.02456e-15 2.31759e-15 -0.04" rpy="3.74941e-14 2.49057e-14 -2.0944"/>
      <geometry>
        <mesh filename="package://assets/1_1_31_qt_942_1.stl"/>
      </geometry>
      <material name="1_1_31_qt_942_1_3_material">
        <color rgba="0.768627 0.886275 0.952941 1"/>
      </material>
    </visual>
    <collision>
      <origin xyz="-4.02456e-15 2.31759e-15 -0.04" rpy="3.74941e-14 2.49057e-14 -2.0944"/>
      <geometry>
        <mesh filename="package://assets/1_1_31_qt_942_1.stl"/>
      </geometry>
    </collision>
    <!-- Part 1_1_06_eb903_538_1_3 -->
    <visual>
      <origin xyz="-3.60822e-15 3.4972e-15 -0.0566" rpy="3.74941e-14 2.49057e-14 -2.0944"/>
      <geometry>
        <mesh filename="package://assets/1_1_06_eb903_538_1.stl"/>
      </geometry>
      <material name="1_1_06_eb903_538_1_3_material">
        <color rgba="0.498039 0.498039 0.498039 1"/>
      </material>
    </visual>
    <collision>
      <origin xyz="-3.60822e-15 3.4972e-15 -0.0566" rpy="3.74941e-14 2.49057e-14 -2.0944"/>
      <geometry>
        <mesh filename="package://assets/1_1_06_eb903_538_1.stl"/>
      </geometry>
    </collision>
    <!-- Part 1_1_31_qt_942_1_4 -->
    <visual>
      <origin xyz="-0.058 -0.100459 -0.0825" rpy="3.39166e-13 -2.07618e-14 -0.523599"/>
      <geometry>
        <mesh filename="package://assets/1_1_31_qt_942_1.stl"/>
      </geometry>
      <material name="1_1_31_qt_942_1_4_material">
        <color rgba="0.768627 0.886275 0.952941 1"/>
      </material>
    </visual>
    <collision>
      <origin xyz="-0.058 -0.100459 -0.0825" rpy="3.39166e-13 -2.07618e-14 -0.523599"/>
      <geometry>
        <mesh filename="package://assets/1_1_31_qt_942_1.stl"/>
      </geometry>
    </collision>
    <!-- Part 1_1_06_eb903_538_1_4 -->
    <visual>
      <origin xyz="-0.058 -0.100459 -0.0991" rpy="3.39166e-13 -2.07618e-14 -0.523599"/>
      <geometry>
        <mesh filename="package://assets/1_1_06_eb903_538_1.stl"/>
      </geometry>
      <material name="1_1_06_eb903_538_1_4_material">
        <color rgba="0.498039 0.498039 0.498039 1"/>
      </material>
    </visual>
    <collision>
      <origin xyz="-0.058 -0.100459 -0.0991" rpy="3.39166e-13 -2.07618e-14 -0.523599"/>
      <geometry>
        <mesh filename="package://assets/1_1_06_eb903_538_1.stl"/>
      </geometry>
    </collision>
    <!-- Part 1_1_06_eb903_537_af0_1_3 -->
    <visual>
      <origin xyz="-3.45557e-15 1.7486e-15 -0.0375" rpy="5.94232e-14 1.496e-14 -0.523599"/>
      <geometry>
        <mesh filename="package://assets/1_1_06_eb903_537_af0_1.stl"/>
      </geometry>
      <material name="1_1_06_eb903_537_af0_1_3_material">
        <color rgba="0.768627 0.886275 0.952941 1"/>
      </material>
    </visual>
    <collision>
      <origin xyz="-3.45557e-15 1.7486e-15 -0.0375" rpy="5.94232e-14 1.496e-14 -0.523599"/>
      <geometry>
        <mesh filename="package://assets/1_1_06_eb903_537_af0_1.stl"/>
      </geometry>
    </collision>
    <!-- Part 1_1_02_eb901_558_1_3 -->
    <visual>
      <origin xyz="-1.38778e-17 1.38778e-17 1.38778e-17" rpy="3.14159 7.21184e-19 -5.81e-17"/>
      <geometry>
        <mesh filename="package://assets/1_1_02_eb901_558_1.stl"/>
      </geometry>
      <material name="1_1_02_eb901_558_1_3_material">
        <color rgba="0.917647 0.917647 0.917647 1"/>
      </material>
    </visual>
    <collision>
      <origin xyz="-1.38778e-17 1.38778e-17 1.38778e-17" rpy="3.14159 7.21184e-19 -5.81e-17"/>
      <geometry>
        <mesh filename="package://assets/1_1_02_eb901_558_1.stl"/>
      </geometry>
    </collision>
    <!-- Part 1_1_06_eb903_537_af0_1_4 -->
    <visual>
      <origin xyz="-0.058 -0.100459 -0.08" rpy="1.46265e-14 -5.95798e-14 1.0472"/>
      <geometry>
        <mesh filename="package://assets/1_1_06_eb903_537_af0_1.stl"/>
      </geometry>
      <material name="1_1_06_eb903_537_af0_1_4_material">
        <color rgba="0.768627 0.886275 0.952941 1"/>
      </material>
    </visual>
    <collision>
      <origin xyz="-0.058 -0.100459 -0.08" rpy="1.46265e-14 -5.95798e-14 1.0472"/>
      <geometry>
        <mesh filename="package://assets/1_1_06_eb903_537_af0_1.stl"/>
      </geometry>
    </collision>
    <!-- Part 1_1_02_eb901_558_1_4 -->
    <visual>
      <origin xyz="-0.058 -0.100459 -0.0425" rpy="-3.14159 -3.39623e-14 1.5708"/>
      <geometry>
        <mesh filename="package://assets/1_1_02_eb901_558_1.stl"/>
      </geometry>
      <material name="1_1_02_eb901_558_1_4_material">
        <color rgba="0.917647 0.917647 0.917647 1"/>
      </material>
    </visual>
    <collision>
      <origin xyz="-0.058 -0.100459 -0.0425" rpy="-3.14159 -3.39623e-14 1.5708"/>
      <geometry>
        <mesh filename="package://assets/1_1_02_eb901_558_1.stl"/>
      </geometry>
    </collision>
  </link>
  <!-- Link shin_subassembly_sym -->
  <link name="shin_subassembly_sym">
    <inertial>
      <origin xyz="0.0013467 -0.0907957 -1.51262e-05" rpy="0 0 0"/>
      <mass value="0.593266"/>
      <inertia ixx="0.00173784" ixy="-5.59428e-05" ixz="2.83049e-06" iyy="0.000242541" iyz="9.49157e-05" izz="0.00176007"/>
    </inertial>
    <!-- Part hex_socket_head_cap_screw_m3x0_50_x_20__7252065e4445f5ec71347b53fcae11e4_13 -->
    <!-- Part xt_30_2x2_f_6 -->
    <visual>
      <origin xyz="0.0212074 -0.0322876 0.0147" rpy="2.35619 1.5708 0"/>
      <geometry>
        <mesh filename="package://assets/xt_30_2x2_f.stl"/>
      </geometry>
      <material name="xt_30_2x2_f_6_material">
        <color rgba="0.917647 0.917647 0.917647 1"/>
      </material>
    </visual>
    <collision>
      <origin xyz="0.0212074 -0.0322876 0.0147" rpy="2.35619 1.5708 0"/>
      <geometry>
        <mesh filename="package://assets/xt_30_2x2_f.stl"/>
      </geometry>
    </collision>
    <!-- Part hex_socket_head_cap_screw_m3x0_50_x_20__7252065e4445f5ec71347b53fcae11e4_14 -->
    <!-- Part hex_socket_head_cap_screw_m3x0_50_x_20__7252065e4445f5ec71347b53fcae11e4_15 -->
    <!-- Part hex_socket_head_cap_screw_m3x0_50_x_10__9c80fcbba574884e63b580474e1ee150_31 -->
    <!-- Part 27628_01_050_catpart_5 -->
    <visual>
      <origin xyz="0.0300907 -0.0130682 -0.0195" rpy="1.5708 2.8773e-14 0.721397"/>
      <geometry>
        <mesh filename="package://assets/27628_01_050_catpart.stl"/>
      </geometry>
      <material name="27628_01_050_catpart_5_material">
        <color rgba="0.690196 0.690196 0.690196 1"/>
      </material>
    </visual>
    <collision>
      <origin xyz="0.0300907 -0.0130682 -0.0195" rpy="1.5708 2.8773e-14 0.721397"/>
      <geometry>
        <mesh filename="package://assets/27628_01_050_catpart.stl"/>
      </geometry>
    </collision>
    <!-- Part hex_socket_head_cap_screw_m3x0_50_x_20__7252065e4445f5ec71347b53fcae11e4_16 -->
    <!-- Part hex_socket_head_cap_screw_m3x0_50_x_30__cb22dc4460edbee8e1cbddf29677c00f_2 -->
    <!-- Part hex_socket_head_cap_screw_m3x0_50_x_10__9c80fcbba574884e63b580474e1ee150_32 -->
    <!-- Part hex_socket_head_cap_screw_m3x0_50_x_10__9c80fcbba574884e63b580474e1ee150_33 -->
    <!-- Part 07534_05x40_catpart_3 -->
    <visual>
      <origin xyz="0 0 -0.025" rpy="-1.5708 -1.5708 0"/>
      <geometry>
        <mesh filename="package://assets/07534_05x40_catpart.stl"/>
      </geometry>
      <material name="07534_05x40_catpart_3_material">
        <color rgba="0.690196 0.690196 0.690196 1"/>
      </material>
    </visual>
    <collision>
      <origin xyz="0 0 -0.025" rpy="-1.5708 -1.5708 0"/>
      <geometry>
        <mesh filename="package://assets/07534_05x40_catpart.stl"/>
      </geometry>
    </collision>
    <!-- Part hex_socket_head_cap_screw_m3x0_50_x_10__9c80fcbba574884e63b580474e1ee150_34 -->
    <!-- Part hex_socket_head_cap_screw_m3x0_50_x_10__9c80fcbba574884e63b580474e1ee150_35 -->
    <!-- Part hex_socket_head_cap_screw_m3x0_50_x_10__9c80fcbba574884e63b580474e1ee150_36 -->
    <!-- Part hex_socket_head_cap_screw_m3x0_50_x_10__9c80fcbba574884e63b580474e1ee150_37 -->
    <!-- Part hex_socket_head_cap_screw_m3x0_50_x_20__7252065e4445f5ec71347b53fcae11e4_17 -->
    <!-- Part 07534_05x20_catpart_5 -->
    <visual>
      <origin xyz="0.0300908 -0.0660682 0.0405" rpy="-0.925025 1.5708 0"/>
      <geometry>
        <mesh filename="package://assets/07534_05x20_catpart.stl"/>
      </geometry>
      <material name="07534_05x20_catpart_5_material">
        <color rgba="0.690196 0.690196 0.690196 1"/>
      </material>
    </visual>
    <collision>
      <origin xyz="0.0300908 -0.0660682 0.0405" rpy="-0.925025 1.5708 0"/>
      <geometry>
        <mesh filename="package://assets/07534_05x20_catpart.stl"/>
      </geometry>
    </collision>
    <!-- Part tibias12_sym -->
    <visual>
      <origin xyz="-2.77556e-16 -0.26 0.067" rpy="-1.5708 -3.93955e-16 4.38885e-16"/>
      <geometry>
        <mesh filename="package://assets/tibias12_sym.stl"/>
      </geometry>
      <material name="tibias12_sym_material">
        <color rgba="1 0 0 1"/>
      </material>
    </visual>
    <collision>
      <origin xyz="-2.77556e-16 -0.26 0.067" rpy="-1.5708 -3.93955e-16 4.38885e-16"/>
      <geometry>
        <mesh filename="package://assets/tibias12_sym.stl"/>
      </geometry>
    </collision>
    <!-- Part hex_socket_head_cap_screw_m2_5x0_45_x_8__dec2226ceabd7d7ca0bb403ec234d89b_4 -->
    <!-- Part actuation_ankle_3 -->
    <visual>
      <origin xyz="0.12299 -0.14568 0.0195" rpy="-1.5708 5.46345e-14 0.925025"/>
      <geometry>
        <mesh filename="package://assets/actuation_ankle.stl"/>
      </geometry>
      <material name="actuation_ankle_3_material">
        <color rgba="0.917647 0.917647 0.917647 1"/>
      </material>
    </visual>
    <collision>
      <origin xyz="0.12299 -0.14568 0.0195" rpy="-1.5708 5.46345e-14 0.925025"/>
      <geometry>
        <mesh filename="package://assets/actuation_ankle.stl"/>
      </geometry>
    </collision>
    <!-- Part hex_socket_head_cap_screw_m3x0_50_x_20__7252065e4445f5ec71347b53fcae11e4_18 -->
    <!-- Part hex_socket_head_cap_screw_m3x0_50_x_10__9c80fcbba574884e63b580474e1ee150_38 -->
    <!-- Part hex_socket_head_cap_screw_m3x0_50_x_10__9c80fcbba574884e63b580474e1ee150_39 -->
    <!-- Part hex_thin_nut_grade_a___b_m4x0_7__a8228d9ce5dcc05f24da0a2f74d882f3_5 -->
    <visual>
      <origin xyz="0.0300908 -0.0660682 0.0129398" rpy="3.14159 4.29999e-16 2.49582"/>
      <geometry>
        <mesh filename="package://assets/hex_thin_nut_grade_a___b_m4x0_7__a8228d9ce5dcc05f24da0a2f74d882f3.stl"/>
      </geometry>
      <material name="hex_thin_nut_grade_a___b_m4x0_7__a8228d9ce5dcc05f24da0a2f74d882f3_5_material">
        <color rgba="0.603922 0.647059 0.686275 1"/>
      </material>
    </visual>
    <collision>
      <origin xyz="0.0300908 -0.0660682 0.0129398" rpy="3.14159 4.29999e-16 2.49582"/>
      <geometry>
        <mesh filename="package://assets/hex_thin_nut_grade_a___b_m4x0_7__a8228d9ce5dcc05f24da0a2f74d882f3.stl"/>
      </geometry>
    </collision>
    <!-- Part hex_socket_head_cap_screw_m3x0_50_x_10__9c80fcbba574884e63b580474e1ee150_40 -->
    <!-- Part hex_socket_head_cap_screw_m3x0_50_x_20__7252065e4445f5ec71347b53fcae11e4_19 -->
    <!-- Part hex_socket_head_cap_screw_m3x0_50_x_20__7252065e4445f5ec71347b53fcae11e4_20 -->
    <!-- Part hex_socket_head_cap_screw_m3x0_50_x_10__9c80fcbba574884e63b580474e1ee150_41 -->
    <!-- Part rmdx43_3 -->
    <visual>
      <origin xyz="0.470217 -0.113201 -0.006" rpy="-1.5708 3.47015e-16 -3.14159"/>
      <geometry>
        <mesh filename="package://assets/rmdx43.stl"/>
      </geometry>
      <material name="rmdx43_3_material">
        <color rgba="0.301961 0.301961 0.301961 1"/>
      </material>
    </visual>
    <collision>
      <origin xyz="0.470217 -0.113201 -0.006" rpy="-1.5708 3.47015e-16 -3.14159"/>
      <geometry>
        <mesh filename="package://assets/rmdx43.stl"/>
      </geometry>
    </collision>
    <!-- Part hex_socket_head_cap_screw_m2_5x0_45_x_8__dec2226ceabd7d7ca0bb403ec234d89b_5 -->
    <!-- Part hex_socket_head_cap_screw_m4x0_70_x_12__c825518ee8edf1afced0eee1b019b750_17 -->
    <!-- Part hex_socket_head_cap_screw_m3x0_50_x_20__7252065e4445f5ec71347b53fcae11e4_21 -->
    <!-- Part hex_socket_head_cap_screw_m4x0_70_x_12__c825518ee8edf1afced0eee1b019b750_18 -->
    <!-- Part hex_socket_head_cap_screw_m3x0_50_x_10__9c80fcbba574884e63b580474e1ee150_42 -->
    <!-- Part hex_socket_head_cap_screw_m3x0_50_x_10__9c80fcbba574884e63b580474e1ee150_43 -->
    <!-- Part hex_socket_head_cap_screw_m3x0_50_x_10__9c80fcbba574884e63b580474e1ee150_44 -->
    <!-- Part hex_socket_head_cap_screw_m4x0_70_x_12__c825518ee8edf1afced0eee1b019b750_19 -->
    <!-- Part hex_socket_head_cap_screw_m3x0_50_x_20__7252065e4445f5ec71347b53fcae11e4_22 -->
    <!-- Part hex_socket_head_cap_screw_m3x0_50_x_10__9c80fcbba574884e63b580474e1ee150_45 -->
    <!-- Part hex_socket_head_cap_screw_m3x0_50_x_10__9c80fcbba574884e63b580474e1ee150_46 -->
    <!-- Part 07534_05x20_catpart_6 -->
    <visual>
      <origin xyz="0.0300908 -0.0130682 -0.0405" rpy="0.925025 -1.5708 0"/>
      <geometry>
        <mesh filename="package://assets/07534_05x20_catpart.stl"/>
      </geometry>
      <material name="07534_05x20_catpart_6_material">
        <color rgba="0.690196 0.690196 0.690196 1"/>
      </material>
    </visual>
    <collision>
      <origin xyz="0.0300908 -0.0130682 -0.0405" rpy="0.925025 -1.5708 0"/>
      <geometry>
        <mesh filename="package://assets/07534_05x20_catpart.stl"/>
      </geometry>
    </collision>
    <!-- Part rmdx43_4 -->
    <visual>
      <origin xyz="0.470217 -0.0457991 0.006" rpy="1.5708 -1.6537e-15 -3.14159"/>
      <geometry>
        <mesh filename="package://assets/rmdx43.stl"/>
      </geometry>
      <material name="rmdx43_4_material">
        <color rgba="0.301961 0.301961 0.301961 1"/>
      </material>
    </visual>
    <collision>
      <origin xyz="0.470217 -0.0457991 0.006" rpy="1.5708 -1.6537e-15 -3.14159"/>
      <geometry>
        <mesh filename="package://assets/rmdx43.stl"/>
      </geometry>
    </collision>
    <!-- Part tibias22_sym -->
    <visual>
      <origin xyz="-6.66134e-16 -0.26 0.067" rpy="-1.5708 -3.81138e-16 6.46186e-16"/>
      <geometry>
        <mesh filename="package://assets/tibias22_sym.stl"/>
      </geometry>
      <material name="tibias22_sym_material">
        <color rgba="1 0 0 1"/>
      </material>
    </visual>
    <collision>
      <origin xyz="-6.66134e-16 -0.26 0.067" rpy="-1.5708 -3.81138e-16 6.46186e-16"/>
      <geometry>
        <mesh filename="package://assets/tibias22_sym.stl"/>
      </geometry>
    </collision>
    <!-- Part hex_socket_head_cap_screw_m3x0_50_x_20__7252065e4445f5ec71347b53fcae11e4_23 -->
    <!-- Part hex_socket_head_cap_screw_m4x0_70_x_12__c825518ee8edf1afced0eee1b019b750_20 -->
    <!-- Part hex_socket_head_cap_screw_m3x0_50_x_10__9c80fcbba574884e63b580474e1ee150_47 -->
    <!-- Part xt_30_2x2_f_7 -->
    <visual>
      <origin xyz="0.0212074 -0.126712 -0.015" rpy="-0.785398 -1.5708 0"/>
      <geometry>
        <mesh filename="package://assets/xt_30_2x2_f.stl"/>
      </geometry>
      <material name="xt_30_2x2_f_7_material">
        <color rgba="0.917647 0.917647 0.917647 1"/>
      </material>
    </visual>
    <collision>
      <origin xyz="0.0212074 -0.126712 -0.015" rpy="-0.785398 -1.5708 0"/>
      <geometry>
        <mesh filename="package://assets/xt_30_2x2_f.stl"/>
      </geometry>
    </collision>
    <!-- Part hex_thin_nut_grade_a___b_m4x0_7__a8228d9ce5dcc05f24da0a2f74d882f3_6 -->
    <visual>
      <origin xyz="0 0 0.0247602" rpy="-3.14159 2.85987e-15 3.14159"/>
      <geometry>
        <mesh filename="package://assets/hex_thin_nut_grade_a___b_m4x0_7__a8228d9ce5dcc05f24da0a2f74d882f3.stl"/>
      </geometry>
      <material name="hex_thin_nut_grade_a___b_m4x0_7__a8228d9ce5dcc05f24da0a2f74d882f3_6_material">
        <color rgba="0.603922 0.647059 0.686275 1"/>
      </material>
    </visual>
    <collision>
      <origin xyz="0 0 0.0247602" rpy="-3.14159 2.85987e-15 3.14159"/>
      <geometry>
        <mesh filename="package://assets/hex_thin_nut_grade_a___b_m4x0_7__a8228d9ce5dcc05f24da0a2f74d882f3.stl"/>
      </geometry>
    </collision>
    <!-- Part hex_socket_head_cap_screw_m3x0_50_x_10__9c80fcbba574884e63b580474e1ee150_48 -->
    <!-- Part hex_socket_head_cap_screw_m3x0_50_x_10__9c80fcbba574884e63b580474e1ee150_49 -->
    <!-- Part actuation_ankle_4 -->
    <visual>
      <origin xyz="-0.12299 -0.0133205 -0.0195" rpy="1.5708 -1.01729e-14 0.925025"/>
      <geometry>
        <mesh filename="package://assets/actuation_ankle.stl"/>
      </geometry>
      <material name="actuation_ankle_4_material">
        <color rgba="0.917647 0.917647 0.917647 1"/>
      </material>
    </visual>
    <collision>
      <origin xyz="-0.12299 -0.0133205 -0.0195" rpy="1.5708 -1.01729e-14 0.925025"/>
      <geometry>
        <mesh filename="package://assets/actuation_ankle.stl"/>
      </geometry>
    </collision>
    <!-- Part hex_socket_head_cap_screw_m3x0_50_x_10__9c80fcbba574884e63b580474e1ee150_50 -->
    <!-- Part hex_socket_head_cap_screw_m3x0_50_x_10__9c80fcbba574884e63b580474e1ee150_51 -->
    <!-- Part hex_socket_head_cap_screw_m3x0_50_x_10__9c80fcbba574884e63b580474e1ee150_52 -->
    <!-- Part hex_socket_head_cap_screw_m3x0_50_x_10__9c80fcbba574884e63b580474e1ee150_53 -->
    <!-- Part hex_socket_head_cap_screw_m3x0_50_x_20__7252065e4445f5ec71347b53fcae11e4_24 -->
    <!-- Part hat_big_2 -->
    <visual>
      <origin xyz="-3.88578e-16 -0.26 -0.019" rpy="1.5708 1.49367e-15 -3.14159"/>
      <geometry>
        <mesh filename="package://assets/hat_big.stl"/>
      </geometry>
      <material name="hat_big_2_material">
        <color rgba="1 0 0 1"/>
      </material>
    </visual>
    <collision>
      <origin xyz="-3.88578e-16 -0.26 -0.019" rpy="1.5708 1.49367e-15 -3.14159"/>
      <geometry>
        <mesh filename="package://assets/hat_big.stl"/>
      </geometry>
    </collision>
    <!-- Part hex_socket_head_cap_screw_m2_5x0_45_x_8__dec2226ceabd7d7ca0bb403ec234d89b_6 -->
    <!-- Part 27628_01_050_catpart_6 -->
    <visual>
      <origin xyz="0.0300907 -0.066068 0.0225" rpy="1.5708 2.28082e-16 3.05529"/>
      <geometry>
        <mesh filename="package://assets/27628_01_050_catpart.stl"/>
      </geometry>
      <material name="27628_01_050_catpart_6_material">
        <color rgba="0.690196 0.690196 0.690196 1"/>
      </material>
    </visual>
    <collision>
      <origin xyz="0.0300907 -0.066068 0.0225" rpy="1.5708 2.28082e-16 3.05529"/>
      <geometry>
        <mesh filename="package://assets/27628_01_050_catpart.stl"/>
      </geometry>
    </collision>
    <!-- Part hex_socket_head_cap_screw_m3x0_50_x_10__9c80fcbba574884e63b580474e1ee150_54 -->
    <!-- Part hex_thin_nut_grade_a___b_m4x0_7__a8228d9ce5dcc05f24da0a2f74d882f3_7 -->
    <visual>
      <origin xyz="0.0300908 -0.0130682 -0.0129398" rpy="5.50943e-14 1.97698e-14 2.49582"/>
      <geometry>
        <mesh filename="package://assets/hex_thin_nut_grade_a___b_m4x0_7__a8228d9ce5dcc05f24da0a2f74d882f3.stl"/>
      </geometry>
      <material name="hex_thin_nut_grade_a___b_m4x0_7__a8228d9ce5dcc05f24da0a2f74d882f3_7_material">
        <color rgba="0.603922 0.647059 0.686275 1"/>
      </material>
    </visual>
    <collision>
      <origin xyz="0.0300908 -0.0130682 -0.0129398" rpy="5.50943e-14 1.97698e-14 2.49582"/>
      <geometry>
        <mesh filename="package://assets/hex_thin_nut_grade_a___b_m4x0_7__a8228d9ce5dcc05f24da0a2f74d882f3.stl"/>
      </geometry>
    </collision>
    <!-- Part 1_1_31_eb463_510_fl46blw10_48v_5n_m_de_2__fl46blw10_48v_5n_m_de_3 -->
    <visual>
      <origin xyz="-2.9976e-15 -0.106 0.019" rpy="1.2576e-13 1.1856e-13 2.74889"/>
      <geometry>
        <mesh filename="package://assets/1_1_31_eb463_510_fl46blw10_48v_5n_m_de_2__fl46blw10_48v_5n_m_de.stl"/>
      </geometry>
      <material name="1_1_31_eb463_510_fl46blw10_48v_5n_m_de_2__fl46blw10_48v_5n_m_de_3_material">
        <color rgba="1 1 1 1"/>
      </material>
    </visual>
    <collision>
      <origin xyz="-2.9976e-15 -0.106 0.019" rpy="1.2576e-13 1.1856e-13 2.74889"/>
      <geometry>
        <mesh filename="package://assets/1_1_31_eb463_510_fl46blw10_48v_5n_m_de_2__fl46blw10_48v_5n_m_de.stl"/>
      </geometry>
    </collision>
    <!-- Part 1_1_02_eb461_502_fl46blw10_48v_5n_m_de_2__fl46blw10_48v_5n_m_de_3 -->
    <visual>
      <origin xyz="-2.72005e-15 -0.106 0.009" rpy="1.2576e-13 1.1856e-13 2.74889"/>
      <geometry>
        <mesh filename="package://assets/1_1_02_eb461_502_fl46blw10_48v_5n_m_de_2__fl46blw10_48v_5n_m_de.stl"/>
      </geometry>
      <material name="1_1_02_eb461_502_fl46blw10_48v_5n_m_de_2__fl46blw10_48v_5n_m_de_3_material">
        <color rgba="1 1 1 1"/>
      </material>
    </visual>
    <collision>
      <origin xyz="-2.72005e-15 -0.106 0.009" rpy="1.2576e-13 1.1856e-13 2.74889"/>
      <geometry>
        <mesh filename="package://assets/1_1_02_eb461_502_fl46blw10_48v_5n_m_de_2__fl46blw10_48v_5n_m_de.stl"/>
      </geometry>
    </collision>
    <!-- Part 1_1_06_eb463_509_fl46blw10_48v_5n_m_de_2__fl46blw10_48v_5n_m_de_3 -->
    <visual>
      <origin xyz="-1.66533e-16 -0.106 -0.0225" rpy="8.85586e-16 -1.53096e-16 1.5708"/>
      <geometry>
        <mesh filename="package://assets/1_1_06_eb463_509_fl46blw10_48v_5n_m_de_2__fl46blw10_48v_5n_m_de.stl"/>
      </geometry>
      <material name="1_1_06_eb463_509_fl46blw10_48v_5n_m_de_2__fl46blw10_48v_5n_m_de_3_material">
        <color rgba="1 1 1 1"/>
      </material>
    </visual>
    <collision>
      <origin xyz="-1.66533e-16 -0.106 -0.0225" rpy="8.85586e-16 -1.53096e-16 1.5708"/>
      <geometry>
        <mesh filename="package://assets/1_1_06_eb463_509_fl46blw10_48v_5n_m_de_2__fl46blw10_48v_5n_m_de.stl"/>
      </geometry>
    </collision>
    <!-- Part 1_1_06_eb463_507_fl46blw10_48v_5n_m_de_2__fl46blw10_48v_5n_m_de_3 -->
    <visual>
      <origin xyz="-5.55112e-16 -0.106 -0.009" rpy="7.24142e-14 1.33677e-13 2.35619"/>
      <geometry>
        <mesh filename="package://assets/1_1_06_eb463_507_fl46blw10_48v_5n_m_de_2__fl46blw10_48v_5n_m_de.stl"/>
      </geometry>
      <material name="1_1_06_eb463_507_fl46blw10_48v_5n_m_de_2__fl46blw10_48v_5n_m_de_3_material">
        <color rgba="1 1 1 1"/>
      </material>
    </visual>
    <collision>
      <origin xyz="-5.55112e-16 -0.106 -0.009" rpy="7.24142e-14 1.33677e-13 2.35619"/>
      <geometry>
        <mesh filename="package://assets/1_1_06_eb463_507_fl46blw10_48v_5n_m_de_2__fl46blw10_48v_5n_m_de.stl"/>
      </geometry>
    </collision>
    <!-- Part 1_1_31_eb463_510_fl46blw10_48v_5n_m_de_2__fl46blw10_48v_5n_m_de_4 -->
    <visual>
      <origin xyz="-1.11022e-16 -0.053 -0.019" rpy="-3.14159 -7.15126e-14 -2.74889"/>
      <geometry>
        <mesh filename="package://assets/1_1_31_eb463_510_fl46blw10_48v_5n_m_de_2__fl46blw10_48v_5n_m_de.stl"/>
      </geometry>
      <material name="1_1_31_eb463_510_fl46blw10_48v_5n_m_de_2__fl46blw10_48v_5n_m_de_4_material">
        <color rgba="1 1 1 1"/>
      </material>
    </visual>
    <collision>
      <origin xyz="-1.11022e-16 -0.053 -0.019" rpy="-3.14159 -7.15126e-14 -2.74889"/>
      <geometry>
        <mesh filename="package://assets/1_1_31_eb463_510_fl46blw10_48v_5n_m_de_2__fl46blw10_48v_5n_m_de.stl"/>
      </geometry>
    </collision>
    <!-- Part 1_1_02_eb461_502_fl46blw10_48v_5n_m_de_2__fl46blw10_48v_5n_m_de_4 -->
    <visual>
      <origin xyz="1.55431e-15 -0.053 -0.009" rpy="-3.14159 -7.15126e-14 -2.74889"/>
      <geometry>
        <mesh filename="package://assets/1_1_02_eb461_502_fl46blw10_48v_5n_m_de_2__fl46blw10_48v_5n_m_de.stl"/>
      </geometry>
      <material name="1_1_02_eb461_502_fl46blw10_48v_5n_m_de_2__fl46blw10_48v_5n_m_de_4_material">
        <color rgba="1 1 1 1"/>
      </material>
    </visual>
    <collision>
      <origin xyz="1.55431e-15 -0.053 -0.009" rpy="-3.14159 -7.15126e-14 -2.74889"/>
      <geometry>
        <mesh filename="package://assets/1_1_02_eb461_502_fl46blw10_48v_5n_m_de_2__fl46blw10_48v_5n_m_de.stl"/>
      </geometry>
    </collision>
    <!-- Part 1_1_06_eb463_509_fl46blw10_48v_5n_m_de_2__fl46blw10_48v_5n_m_de_4 -->
    <visual>
      <origin xyz="-1.66533e-16 -0.053 0.0225" rpy="-3.14159 -2.16485e-15 -1.5708"/>
      <geometry>
        <mesh filename="package://assets/1_1_06_eb463_509_fl46blw10_48v_5n_m_de_2__fl46blw10_48v_5n_m_de.stl"/>
      </geometry>
      <material name="1_1_06_eb463_509_fl46blw10_48v_5n_m_de_2__fl46blw10_48v_5n_m_de_4_material">
        <color rgba="1 1 1 1"/>
      </material>
    </visual>
    <collision>
      <origin xyz="-1.66533e-16 -0.053 0.0225" rpy="-3.14159 -2.16485e-15 -1.5708"/>
      <geometry>
        <mesh filename="package://assets/1_1_06_eb463_509_fl46blw10_48v_5n_m_de_2__fl46blw10_48v_5n_m_de.stl"/>
      </geometry>
    </collision>
    <!-- Part 1_1_06_eb463_507_fl46blw10_48v_5n_m_de_2__fl46blw10_48v_5n_m_de_4 -->
    <visual>
      <origin xyz="-6.10623e-16 -0.053 0.009" rpy="-3.14159 -1.58339e-13 -2.35619"/>
      <geometry>
        <mesh filename="package://assets/1_1_06_eb463_507_fl46blw10_48v_5n_m_de_2__fl46blw10_48v_5n_m_de.stl"/>
      </geometry>
      <material name="1_1_06_eb463_507_fl46blw10_48v_5n_m_de_2__fl46blw10_48v_5n_m_de_4_material">
        <color rgba="1 1 1 1"/>
      </material>
    </visual>
    <collision>
      <origin xyz="-6.10623e-16 -0.053 0.009" rpy="-3.14159 -1.58339e-13 -2.35619"/>
      <geometry>
        <mesh filename="package://assets/1_1_06_eb463_507_fl46blw10_48v_5n_m_de_2__fl46blw10_48v_5n_m_de.stl"/>
      </geometry>
    </collision>
    <!-- Part 0001755652_1_1_30_gr_2202_asm_1_asm_1_1_30_gr_2202_asm_fl46blw10_48v_5n_m_de_2__fl46blw10_48v_5n_m_de_5 -->
    <visual>
      <origin xyz="0.00671751 -0.0992825 0.0235" rpy="3.14159 -1.33172e-13 -0.785398"/>
      <geometry>
        <mesh filename="package://assets/0001755652_1_1_30_gr_2202_asm_1_asm_1_1_30_gr_2202_asm_fl46blw10_48v_5n_m_de_2__fl46blw10_48v_5n_m_de.stl"/>
      </geometry>
      <material name="0001755652_1_1_30_gr_2202_asm_1_asm_1_1_30_gr_2202_asm_fl46blw10_48v_5n_m_de_2__fl46blw10_48v_5n_m_de_5_material">
        <color rgba="1 1 1 1"/>
      </material>
    </visual>
    <collision>
      <origin xyz="0.00671751 -0.0992825 0.0235" rpy="3.14159 -1.33172e-13 -0.785398"/>
      <geometry>
        <mesh filename="package://assets/0001755652_1_1_30_gr_2202_asm_1_asm_1_1_30_gr_2202_asm_fl46blw10_48v_5n_m_de_2__fl46blw10_48v_5n_m_de.stl"/>
      </geometry>
    </collision>
    <!-- Part 0001755652_1_1_30_gr_2202_asm_1_asm_1_1_30_gr_2202_asm_fl46blw10_48v_5n_m_de_2__fl46blw10_48v_5n_m_de_6 -->
    <visual>
      <origin xyz="0.00245878 -0.115176 0.0235" rpy="3.14159 -1.33172e-13 -0.785398"/>
      <geometry>
        <mesh filename="package://assets/0001755652_1_1_30_gr_2202_asm_1_asm_1_1_30_gr_2202_asm_fl46blw10_48v_5n_m_de_2__fl46blw10_48v_5n_m_de.stl"/>
      </geometry>
      <material name="0001755652_1_1_30_gr_2202_asm_1_asm_1_1_30_gr_2202_asm_fl46blw10_48v_5n_m_de_2__fl46blw10_48v_5n_m_de_6_material">
        <color rgba="1 1 1 1"/>
      </material>
    </visual>
    <collision>
      <origin xyz="0.00245878 -0.115176 0.0235" rpy="3.14159 -1.33172e-13 -0.785398"/>
      <geometry>
        <mesh filename="package://assets/0001755652_1_1_30_gr_2202_asm_1_asm_1_1_30_gr_2202_asm_fl46blw10_48v_5n_m_de_2__fl46blw10_48v_5n_m_de.stl"/>
      </geometry>
    </collision>
    <!-- Part 0001755652_1_1_30_gr_2202_asm_1_asm_1_1_30_gr_2202_asm_fl46blw10_48v_5n_m_de_2__fl46blw10_48v_5n_m_de_7 -->
    <visual>
      <origin xyz="0.00671751 -0.0597175 -0.0235" rpy="-2.35282e-14 5.20021e-14 0.785398"/>
      <geometry>
        <mesh filename="package://assets/0001755652_1_1_30_gr_2202_asm_1_asm_1_1_30_gr_2202_asm_fl46blw10_48v_5n_m_de_2__fl46blw10_48v_5n_m_de.stl"/>
      </geometry>
      <material name="0001755652_1_1_30_gr_2202_asm_1_asm_1_1_30_gr_2202_asm_fl46blw10_48v_5n_m_de_2__fl46blw10_48v_5n_m_de_7_material">
        <color rgba="1 1 1 1"/>
      </material>
    </visual>
    <collision>
      <origin xyz="0.00671751 -0.0597175 -0.0235" rpy="-2.35282e-14 5.20021e-14 0.785398"/>
      <geometry>
        <mesh filename="package://assets/0001755652_1_1_30_gr_2202_asm_1_asm_1_1_30_gr_2202_asm_fl46blw10_48v_5n_m_de_2__fl46blw10_48v_5n_m_de.stl"/>
      </geometry>
    </collision>
    <!-- Part 0001755652_1_1_30_gr_2202_asm_1_asm_1_1_30_gr_2202_asm_fl46blw10_48v_5n_m_de_2__fl46blw10_48v_5n_m_de_8 -->
    <visual>
      <origin xyz="0.00245878 -0.0438237 -0.0235" rpy="-2.35282e-14 5.20021e-14 0.785398"/>
      <geometry>
        <mesh filename="package://assets/0001755652_1_1_30_gr_2202_asm_1_asm_1_1_30_gr_2202_asm_fl46blw10_48v_5n_m_de_2__fl46blw10_48v_5n_m_de.stl"/>
      </geometry>
      <material name="0001755652_1_1_30_gr_2202_asm_1_asm_1_1_30_gr_2202_asm_fl46blw10_48v_5n_m_de_2__fl46blw10_48v_5n_m_de_8_material">
        <color rgba="1 1 1 1"/>
      </material>
    </visual>
    <collision>
      <origin xyz="0.00245878 -0.0438237 -0.0235" rpy="-2.35282e-14 5.20021e-14 0.785398"/>
      <geometry>
        <mesh filename="package://assets/0001755652_1_1_30_gr_2202_asm_1_asm_1_1_30_gr_2202_asm_fl46blw10_48v_5n_m_de_2__fl46blw10_48v_5n_m_de.stl"/>
      </geometry>
    </collision>
    <!-- Part 0001755652_00mini_000_asm_1_asm_1_asm_00mini__20250103_a0001_asm_1_as_asm_1_1_30_gr_2202_asm_1_asm_1_1_30_gr_2202_asm_fl46blw10_48v_5n_m_de_2__fl46blw10_48v_5n_m_de_3 -->
    <visual>
      <origin xyz="-0.0091763 -0.103541 0.0235" rpy="3.14159 -1.33172e-13 -0.785398"/>
      <geometry>
        <mesh filename="package://assets/0001755652_00mini_000_asm_1_asm_1_asm_00mini__20250103_a0001_asm_1_as_asm_1_1_30_gr_2202_asm_1_asm_1_1_30_gr_2202_asm_fl46blw10_48v_5n_m_de_2__fl46blw10_48v_5n_m_de.stl"/>
      </geometry>
      <material name="0001755652_00mini_000_asm_1_asm_1_asm_00mini__20250103_a0001_asm_1_as_asm_1_1_30_gr_2202_asm_1_asm_1_1_30_gr_2202_asm_fl46blw10_48v_5n_m_de_2__fl46blw10_48v_5n_m_de_3_material">
        <color rgba="1 1 1 1"/>
      </material>
    </visual>
    <collision>
      <origin xyz="-0.0091763 -0.103541 0.0235" rpy="3.14159 -1.33172e-13 -0.785398"/>
      <geometry>
        <mesh filename="package://assets/0001755652_00mini_000_asm_1_asm_1_asm_00mini__20250103_a0001_asm_1_as_asm_1_1_30_gr_2202_asm_1_asm_1_1_30_gr_2202_asm_fl46blw10_48v_5n_m_de_2__fl46blw10_48v_5n_m_de.stl"/>
      </geometry>
    </collision>
    <!-- Part 6706__300001_1_1_00mini_000_asm_1_asm_1_asm_00mini__20250103_a0001_asm_1_as_asm_1_1_30_gr_2202_asm_1_asm_1_1_30_gr_2202_asm_fl46blw10_48v_5n_m_de_2__fl46blw10_48v_5n_m_de_3 -->
    <visual>
      <origin xyz="-2.9976e-15 -0.106 0.02" rpy="3.14159 -1.33172e-13 -0.785398"/>
      <geometry>
        <mesh filename="package://assets/6706__300001_1_1_00mini_000_asm_1_asm_1_asm_00mini__20250103_a0001_asm_1_as_asm_1_1_30_gr_2202_asm_1_asm_1_1_30_gr_2202_asm_fl46blw10_48v_5n_m_de_2__fl46blw10_48v_5n_m_de.stl"/>
      </geometry>
      <material name="6706__300001_1_1_00mini_000_asm_1_asm_1_asm_00mini__20250103_a0001_asm_1_as_asm_1_1_30_gr_2202_asm_1_asm_1_1_30_gr_2202_asm_fl46blw10_48v_5n_m_de_2__fl46blw10_48v_5n_m_de_3_material">
        <color rgba="1 1 1 1"/>
      </material>
    </visual>
    <collision>
      <origin xyz="-2.9976e-15 -0.106 0.02" rpy="3.14159 -1.33172e-13 -0.785398"/>
      <geometry>
        <mesh filename="package://assets/6706__300001_1_1_00mini_000_asm_1_asm_1_asm_00mini__20250103_a0001_asm_1_as_asm_1_1_30_gr_2202_asm_1_asm_1_1_30_gr_2202_asm_fl46blw10_48v_5n_m_de_2__fl46blw10_48v_5n_m_de.stl"/>
      </geometry>
    </collision>
    <!-- Part 0001755650_00mini_000_asm_1_asm_1_asm_00mini__20250103_a0001_asm_1_as_asm_1_1_30_gr_2202_asm_1_asm_1_1_30_gr_2202_asm_fl46blw10_48v_5n_m_de_2__fl46blw10_48v_5n_m_de_3 -->
    <visual>
      <origin xyz="-3.16414e-15 -0.106 0.0204" rpy="3.14159 -1.33172e-13 -0.785398"/>
      <geometry>
        <mesh filename="package://assets/0001755650_00mini_000_asm_1_asm_1_asm_00mini__20250103_a0001_asm_1_as_asm_1_1_30_gr_2202_asm_1_asm_1_1_30_gr_2202_asm_fl46blw10_48v_5n_m_de_2__fl46blw10_48v_5n_m_de.stl"/>
      </geometry>
      <material name="0001755650_00mini_000_asm_1_asm_1_asm_00mini__20250103_a0001_asm_1_as_asm_1_1_30_gr_2202_asm_1_asm_1_1_30_gr_2202_asm_fl46blw10_48v_5n_m_de_2__fl46blw10_48v_5n_m_de_3_material">
        <color rgba="1 1 1 1"/>
      </material>
    </visual>
    <collision>
      <origin xyz="-3.16414e-15 -0.106 0.0204" rpy="3.14159 -1.33172e-13 -0.785398"/>
      <geometry>
        <mesh filename="package://assets/0001755650_00mini_000_asm_1_asm_1_asm_00mini__20250103_a0001_asm_1_as_asm_1_1_30_gr_2202_asm_1_asm_1_1_30_gr_2202_asm_fl46blw10_48v_5n_m_de_2__fl46blw10_48v_5n_m_de.stl"/>
      </geometry>
    </collision>
    <!-- Part 0001755652_00mini_000_asm_1_asm_1_asm_00mini__20250103_a0001_asm_1_as_asm_1_1_30_gr_2202_asm_1_asm_1_1_30_gr_2202_asm_fl46blw10_48v_5n_m_de_2__fl46blw10_48v_5n_m_de_4 -->
    <visual>
      <origin xyz="-0.0091763 -0.0554588 -0.0235" rpy="-2.35282e-14 5.20021e-14 0.785398"/>
      <geometry>
        <mesh filename="package://assets/0001755652_00mini_000_asm_1_asm_1_asm_00mini__20250103_a0001_asm_1_as_asm_1_1_30_gr_2202_asm_1_asm_1_1_30_gr_2202_asm_fl46blw10_48v_5n_m_de_2__fl46blw10_48v_5n_m_de.stl"/>
      </geometry>
      <material name="0001755652_00mini_000_asm_1_asm_1_asm_00mini__20250103_a0001_asm_1_as_asm_1_1_30_gr_2202_asm_1_asm_1_1_30_gr_2202_asm_fl46blw10_48v_5n_m_de_2__fl46blw10_48v_5n_m_de_4_material">
        <color rgba="1 1 1 1"/>
      </material>
    </visual>
    <collision>
      <origin xyz="-0.0091763 -0.0554588 -0.0235" rpy="-2.35282e-14 5.20021e-14 0.785398"/>
      <geometry>
        <mesh filename="package://assets/0001755652_00mini_000_asm_1_asm_1_asm_00mini__20250103_a0001_asm_1_as_asm_1_1_30_gr_2202_asm_1_asm_1_1_30_gr_2202_asm_fl46blw10_48v_5n_m_de_2__fl46blw10_48v_5n_m_de.stl"/>
      </geometry>
    </collision>
    <!-- Part 6706__300001_1_1_00mini_000_asm_1_asm_1_asm_00mini__20250103_a0001_asm_1_as_asm_1_1_30_gr_2202_asm_1_asm_1_1_30_gr_2202_asm_fl46blw10_48v_5n_m_de_2__fl46blw10_48v_5n_m_de_4 -->
    <visual>
      <origin xyz="9.4369e-16 -0.053 -0.02" rpy="-2.35282e-14 5.20021e-14 0.785398"/>
      <geometry>
        <mesh filename="package://assets/6706__300001_1_1_00mini_000_asm_1_asm_1_asm_00mini__20250103_a0001_asm_1_as_asm_1_1_30_gr_2202_asm_1_asm_1_1_30_gr_2202_asm_fl46blw10_48v_5n_m_de_2__fl46blw10_48v_5n_m_de.stl"/>
      </geometry>
      <material name="6706__300001_1_1_00mini_000_asm_1_asm_1_asm_00mini__20250103_a0001_asm_1_as_asm_1_1_30_gr_2202_asm_1_asm_1_1_30_gr_2202_asm_fl46blw10_48v_5n_m_de_2__fl46blw10_48v_5n_m_de_4_material">
        <color rgba="1 1 1 1"/>
      </material>
    </visual>
    <collision>
      <origin xyz="9.4369e-16 -0.053 -0.02" rpy="-2.35282e-14 5.20021e-14 0.785398"/>
      <geometry>
        <mesh filename="package://assets/6706__300001_1_1_00mini_000_asm_1_asm_1_asm_00mini__20250103_a0001_asm_1_as_asm_1_1_30_gr_2202_asm_1_asm_1_1_30_gr_2202_asm_fl46blw10_48v_5n_m_de_2__fl46blw10_48v_5n_m_de.stl"/>
      </geometry>
    </collision>
    <!-- Part 0001755650_00mini_000_asm_1_asm_1_asm_00mini__20250103_a0001_asm_1_as_asm_1_1_30_gr_2202_asm_1_asm_1_1_30_gr_2202_asm_fl46blw10_48v_5n_m_de_2__fl46blw10_48v_5n_m_de_4 -->
    <visual>
      <origin xyz="5.55112e-17 -0.053 -0.0204" rpy="-2.35282e-14 5.20021e-14 0.785398"/>
      <geometry>
        <mesh filename="package://assets/0001755650_00mini_000_asm_1_asm_1_asm_00mini__20250103_a0001_asm_1_as_asm_1_1_30_gr_2202_asm_1_asm_1_1_30_gr_2202_asm_fl46blw10_48v_5n_m_de_2__fl46blw10_48v_5n_m_de.stl"/>
      </geometry>
      <material name="0001755650_00mini_000_asm_1_asm_1_asm_00mini__20250103_a0001_asm_1_as_asm_1_1_30_gr_2202_asm_1_asm_1_1_30_gr_2202_asm_fl46blw10_48v_5n_m_de_2__fl46blw10_48v_5n_m_de_4_material">
        <color rgba="1 1 1 1"/>
      </material>
    </visual>
    <collision>
      <origin xyz="5.55112e-17 -0.053 -0.0204" rpy="-2.35282e-14 5.20021e-14 0.785398"/>
      <geometry>
        <mesh filename="package://assets/0001755650_00mini_000_asm_1_asm_1_asm_00mini__20250103_a0001_asm_1_as_asm_1_1_30_gr_2202_asm_1_asm_1_1_30_gr_2202_asm_fl46blw10_48v_5n_m_de_2__fl46blw10_48v_5n_m_de.stl"/>
      </geometry>
    </collision>
  </link>
  <!-- Link ankle_subassembly_2 -->
  <link name="ankle_subassembly_2">
    <inertial>
      <origin xyz="1.62086e-08 -0.000727483 0.02" rpy="0 0 0"/>
      <mass value="0.0168168"/>
      <inertia ixx="5.19458e-06" ixy="-2.61119e-12" ixz="4.35145e-12" iyy="4.86353e-06" iyz="7.24871e-13" izz="8.35665e-07"/>
    </inertial>
    <!-- Part hex_socket_head_cap_screw_m2_5x0_45_x_6__ec244025d76f8b83b2775022a2cb3232_22 -->
    <!-- Part 07534_05x40_catpart_4 -->
    <visual>
      <origin xyz="-4.55191e-15 0.0249999 0.02" rpy="2.08266e-13 2.98924e-14 -1.5708"/>
      <geometry>
        <mesh filename="package://assets/07534_05x40_catpart.stl"/>
      </geometry>
      <material name="07534_05x40_catpart_4_material">
        <color rgba="0.690196 0.690196 0.690196 1"/>
      </material>
    </visual>
    <collision>
      <origin xyz="-4.55191e-15 0.0249999 0.02" rpy="2.08266e-13 2.98924e-14 -1.5708"/>
      <geometry>
        <mesh filename="package://assets/07534_05x40_catpart.stl"/>
      </geometry>
    </collision>
    <!-- Part ujoint_2 -->
    <visual>
      <origin xyz="-5.55112e-16 -4.66988e-15 0.02" rpy="-3.14159 -1.5708 0"/>
      <geometry>
        <mesh filename="package://assets/ujoint.stl"/>
      </geometry>
      <material name="ujoint_2_material">
        <color rgba="1 0 0 1"/>
      </material>
    </visual>
    <collision>
      <origin xyz="-5.55112e-16 -4.66988e-15 0.02" rpy="-3.14159 -1.5708 0"/>
      <geometry>
        <mesh filename="package://assets/ujoint.stl"/>
      </geometry>
    </collision>
    <!-- Part hex_socket_head_cap_screw_m2_5x0_45_x_6__ec244025d76f8b83b2775022a2cb3232_23 -->
    <!-- Part spacer_ujoint_3 -->
    <visual>
      <origin xyz="4.44089e-16 -6.92502e-15 0.02" rpy="-3.14159 1.54943 -3.14159"/>
      <geometry>
        <mesh filename="package://assets/spacer_ujoint.stl"/>
      </geometry>
      <material name="spacer_ujoint_3_material">
        <color rgba="0.917647 0.917647 0.917647 1"/>
      </material>
    </visual>
    <collision>
      <origin xyz="4.44089e-16 -6.92502e-15 0.02" rpy="-3.14159 1.54943 -3.14159"/>
      <geometry>
        <mesh filename="package://assets/spacer_ujoint.stl"/>
      </geometry>
    </collision>
    <!-- Part hex_thin_nut_grade_a___b_m4x0_7__a8228d9ce5dcc05f24da0a2f74d882f3_8 -->
    <visual>
      <origin xyz="-2.23155e-14 -0.02204 0.02" rpy="1.5708 1.54943 -3.14159"/>
      <geometry>
        <mesh filename="package://assets/hex_thin_nut_grade_a___b_m4x0_7__a8228d9ce5dcc05f24da0a2f74d882f3.stl"/>
      </geometry>
      <material name="hex_thin_nut_grade_a___b_m4x0_7__a8228d9ce5dcc05f24da0a2f74d882f3_8_material">
        <color rgba="0.603922 0.647059 0.686275 1"/>
      </material>
    </visual>
    <collision>
      <origin xyz="-2.23155e-14 -0.02204 0.02" rpy="1.5708 1.54943 -3.14159"/>
      <geometry>
        <mesh filename="package://assets/hex_thin_nut_grade_a___b_m4x0_7__a8228d9ce5dcc05f24da0a2f74d882f3.stl"/>
      </geometry>
    </collision>
    <!-- Part part_3_5 -->
    <visual>
      <origin xyz="1.11022e-15 -6.13051e-15 0.0205" rpy="-3.14159 -1.5708 0"/>
      <geometry>
        <mesh filename="package://assets/part_3.stl"/>
      </geometry>
      <material name="part_3_5_material">
        <color rgba="1 0 0 1"/>
      </material>
    </visual>
    <collision>
      <origin xyz="1.11022e-15 -6.13051e-15 0.0205" rpy="-3.14159 -1.5708 0"/>
      <geometry>
        <mesh filename="package://assets/part_3.stl"/>
      </geometry>
    </collision>
    <!-- Part bearing_5_16_5_7 -->
    <visual>
      <origin xyz="8.77076e-15 -0.01594 0.02" rpy="3.14159 1.54943 -3.14159"/>
      <geometry>
        <mesh filename="package://assets/bearing_5_16_5.stl"/>
      </geometry>
      <material name="bearing_5_16_5_7_material">
        <color rgba="0.917647 0.917647 0.917647 1"/>
      </material>
    </visual>
    <collision>
      <origin xyz="8.77076e-15 -0.01594 0.02" rpy="3.14159 1.54943 -3.14159"/>
      <geometry>
        <mesh filename="package://assets/bearing_5_16_5.stl"/>
      </geometry>
    </collision>
    <!-- Part bearing_15_21_4_13 -->
    <visual>
      <origin xyz="-5.55112e-16 -8.6979e-15 0.04" rpy="-1.5708 -1.32903e-15 -3.14159"/>
      <geometry>
        <mesh filename="package://assets/bearing_15_21_4.stl"/>
      </geometry>
      <material name="bearing_15_21_4_13_material">
        <color rgba="0.647059 0.647059 0.647059 1"/>
      </material>
    </visual>
    <collision>
      <origin xyz="-5.55112e-16 -8.6979e-15 0.04" rpy="-1.5708 -1.32903e-15 -3.14159"/>
      <geometry>
        <mesh filename="package://assets/bearing_15_21_4.stl"/>
      </geometry>
    </collision>
    <!-- Part hex_socket_head_cap_screw_m2_5x0_45_x_6__ec244025d76f8b83b2775022a2cb3232_24 -->
    <!-- Part hex_socket_head_cap_screw_m2_5x0_45_x_6__ec244025d76f8b83b2775022a2cb3232_25 -->
    <!-- Part part_3_6 -->
    <visual>
      <origin xyz="-2.55351e-15 -2.27596e-15 0.0195" rpy="3.14159 1.5708 0"/>
      <geometry>
        <mesh filename="package://assets/part_3.stl"/>
      </geometry>
      <material name="part_3_6_material">
        <color rgba="1 0 0 1"/>
      </material>
    </visual>
    <collision>
      <origin xyz="-2.55351e-15 -2.27596e-15 0.0195" rpy="3.14159 1.5708 0"/>
      <geometry>
        <mesh filename="package://assets/part_3.stl"/>
      </geometry>
    </collision>
    <!-- Part hex_socket_head_cap_screw_m2_5x0_45_x_6__ec244025d76f8b83b2775022a2cb3232_26 -->
    <!-- Part hex_socket_head_cap_screw_m2_5x0_45_x_6__ec244025d76f8b83b2775022a2cb3232_27 -->
    <!-- Part bearing_5_16_5_8 -->
    <visual>
      <origin xyz="3.66374e-15 0.0209456 0.02" rpy="-4.08272e-14 -0.0146585 1.26585e-13"/>
      <geometry>
        <mesh filename="package://assets/bearing_5_16_5.stl"/>
      </geometry>
      <material name="bearing_5_16_5_8_material">
        <color rgba="0.917647 0.917647 0.917647 1"/>
      </material>
    </visual>
    <collision>
      <origin xyz="3.66374e-15 0.0209456 0.02" rpy="-4.08272e-14 -0.0146585 1.26585e-13"/>
      <geometry>
        <mesh filename="package://assets/bearing_5_16_5.stl"/>
      </geometry>
    </collision>
    <!-- Part spacer_ujoint_4 -->
    <visual>
      <origin xyz="5.55112e-15 5.64895e-06 0.02" rpy="3.29857e-12 -1.55614 3.14159"/>
      <geometry>
        <mesh filename="package://assets/spacer_ujoint.stl"/>
      </geometry>
      <material name="spacer_ujoint_4_material">
        <color rgba="0.917647 0.917647 0.917647 1"/>
      </material>
    </visual>
    <collision>
      <origin xyz="5.55112e-15 5.64895e-06 0.02" rpy="3.29857e-12 -1.55614 3.14159"/>
      <geometry>
        <mesh filename="package://assets/spacer_ujoint.stl"/>
      </geometry>
    </collision>
    <!-- Part bearing_15_21_4_14 -->
    <visual>
      <origin xyz="0 -3.46945e-18 0" rpy="1.5708 -1.114e-18 2.66755e-21"/>
      <geometry>
        <mesh filename="package://assets/bearing_15_21_4.stl"/>
      </geometry>
      <material name="bearing_15_21_4_14_material">
        <color rgba="0.647059 0.647059 0.647059 1"/>
      </material>
    </visual>
    <collision>
      <origin xyz="0 -3.46945e-18 0" rpy="1.5708 -1.114e-18 2.66755e-21"/>
      <geometry>
        <mesh filename="package://assets/bearing_15_21_4.stl"/>
      </geometry>
    </collision>
  </link>
  <!-- Link foot_subassembly_2 -->
  <link name="foot_subassembly_2">
    <inertial>
      <origin xyz="8.52312e-09 -0.0138418 -0.052232" rpy="0 0 0"/>
      <mass value="0.122498"/>
      <inertia ixx="0.000163413" ixy="-1.15065e-10" ixz="-2.96383e-11" iyy="0.000162266" iyz="1.11374e-05" izz="7.07692e-05"/>
    </inertial>
    <!-- Part hex_socket_head_cap_screw_m2_5x0_45_x_6__ec244025d76f8b83b2775022a2cb3232_28 -->
    <!-- Part 27628_01_050_catpart_7 -->
    <visual>
      <origin xyz="0.021 3.53792e-08 -0.0660002" rpy="-3.14159 -7.23269e-19 1.5708"/>
      <geometry>
        <mesh filename="package://assets/27628_01_050_catpart.stl"/>
      </geometry>
      <material name="27628_01_050_catpart_7_material">
        <color rgba="0.690196 0.690196 0.690196 1"/>
      </material>
    </visual>
    <collision>
      <origin xyz="0.021 3.53792e-08 -0.0660002" rpy="-3.14159 -7.23269e-19 1.5708"/>
      <geometry>
        <mesh filename="package://assets/27628_01_050_catpart.stl"/>
      </geometry>
    </collision>
    <!-- Part hex_socket_head_cap_screw_m2_5x0_45_x_6__ec244025d76f8b83b2775022a2cb3232_29 -->
    <!-- Part 07534_05x20_catpart_7 -->
    <visual>
      <origin xyz="0.036 0 -0.066" rpy="3.14159 3.03728e-20 -3.14159"/>
      <geometry>
        <mesh filename="package://assets/07534_05x20_catpart.stl"/>
      </geometry>
      <material name="07534_05x20_catpart_7_material">
        <color rgba="0.690196 0.690196 0.690196 1"/>
      </material>
    </visual>
    <collision>
      <origin xyz="0.036 0 -0.066" rpy="3.14159 3.03728e-20 -3.14159"/>
      <geometry>
        <mesh filename="package://assets/07534_05x20_catpart.stl"/>
      </geometry>
    </collision>
    <!-- Part 27628_01_050_catpart_8 -->
    <visual>
      <origin xyz="-0.021 -1.89504e-08 -0.066" rpy="3.14159 -1.84706e-15 1.5708"/>
      <geometry>
        <mesh filename="package://assets/27628_01_050_catpart.stl"/>
      </geometry>
      <material name="27628_01_050_catpart_8_material">
        <color rgba="0.690196 0.690196 0.690196 1"/>
      </material>
    </visual>
    <collision>
      <origin xyz="-0.021 -1.89504e-08 -0.066" rpy="3.14159 -1.84706e-15 1.5708"/>
      <geometry>
        <mesh filename="package://assets/27628_01_050_catpart.stl"/>
      </geometry>
    </collision>
    <!-- Part 07534_05x20_catpart_8 -->
    <visual>
      <origin xyz="-0.036 0 -0.066" rpy="-5.73743e-19 6.90498e-20 -1.57944e-31"/>
      <geometry>
        <mesh filename="package://assets/07534_05x20_catpart.stl"/>
      </geometry>
      <material name="07534_05x20_catpart_8_material">
        <color rgba="0.690196 0.690196 0.690196 1"/>
      </material>
    </visual>
    <collision>
      <origin xyz="-0.036 0 -0.066" rpy="-5.73743e-19 6.90498e-20 -1.57944e-31"/>
      <geometry>
        <mesh filename="package://assets/07534_05x20_catpart.stl"/>
      </geometry>
    </collision>
    <!-- Part hat_small_2 -->
    <visual>
      <origin xyz="2.08167e-16 -0.035 -0.0385" rpy="-1.5708 -1.5708 0"/>
      <geometry>
        <mesh filename="package://assets/hat_small.stl"/>
      </geometry>
      <material name="hat_small_2_material">
        <color rgba="1 0 0 1"/>
      </material>
    </visual>
    <collision>
      <origin xyz="2.08167e-16 -0.035 -0.0385" rpy="-1.5708 -1.5708 0"/>
      <geometry>
        <mesh filename="package://assets/hat_small.stl"/>
      </geometry>
    </collision>
    <!-- Part hex_socket_head_cap_screw_m2_5x0_45_x_6__ec244025d76f8b83b2775022a2cb3232_30 -->
    <!-- Part foot_2 -->
    <visual>
      <origin xyz="1.11022e-16 -0.035 -0.0385" rpy="-1.5708 -1.5708 0"/>
      <geometry>
        <mesh filename="package://assets/foot.stl"/>
      </geometry>
      <material name="foot_2_material">
        <color rgba="0.301961 0.301961 0.301961 1"/>
      </material>
    </visual>
    <collision>
      <origin xyz="1.11022e-16 -0.035 -0.0385" rpy="-1.5708 -1.5708 0"/>
      <geometry>
        <mesh filename="package://assets/foot.stl"/>
      </geometry>
    </collision>
  </link>
  <!-- Frame foot_left (dummy link + fixed joint) -->
  <link name="foot_left">
    <origin xyz="0 0 0" rpy="0 -0 0"/>
    <inertial>
      <origin xyz="0 0 0" rpy="0 0 0"/>
      <mass value="1e-9"/>
      <inertia ixx="0" ixy="0" ixz="0" iyy="0" iyz="0" izz="0"/>
    </inertial>
  </link>
  <joint name="foot_left_frame" type="fixed">
    <origin xyz="-6.35351e-08 -0.035 -0.0480606" rpy="-1.5708 1.5708 0"/>
    <parent link="foot_subassembly_2"/>
    <child link="foot_left"/>
    <axis xyz="0 0 0"/>
  </joint>
  <!-- Joint from ankle_subassembly_2 to foot_subassembly_2 -->
  <joint name="anklex_left" type="revolute">
    <origin xyz="8.77076e-15 -0.01594 0.02" rpy="1.5708 -1.56385 -1.68214e-13"/>
    <parent link="ankle_subassembly_2"/>
    <child link="foot_subassembly_2"/>
    <axis xyz="0 0 1"/>
    <limit effort="10" velocity="10" lower="-3.141592653589793" upper="3.141592653589793"/>
  </joint>
  <!-- Joint from shin_subassembly_sym to ankle_subassembly_2 -->
  <joint name="ankley_left" type="revolute">
    <origin xyz="-4.44089e-16 -0.26 -0.02" rpy="-1.88315e-15 -1.67074e-15 -0.955182"/>
    <parent link="shin_subassembly_sym"/>
    <child link="ankle_subassembly_2"/>
    <axis xyz="0 0 1"/>
    <limit effort="10" velocity="10" lower="-3.141592653589793" upper="3.141592653589793"/>
  </joint>
  <!-- Joint from tigh_subassembly_sym to shin_subassembly_sym -->
  <joint name="knee_left" type="revolute">
    <origin xyz="-0.17 -0.294449 -0.0305" rpy="2.3884e-15 -1.02851e-16 -1.52464"/>
    <parent link="tigh_subassembly_sym"/>
    <child link="shin_subassembly_sym"/>
    <axis xyz="0 0 1"/>
    <limit effort="10" velocity="10" lower="-3.141592653589793" upper="3.141592653589793"/>
  </joint>
  <!-- Joint from hipy_subassembly_sym to tigh_subassembly_sym -->
  <joint name="hipy_left" type="revolute">
    <origin xyz="0.012638 0.0276823 -0.112055" rpy="1.65228 -0.597222 2.66793"/>
    <parent link="hipy_subassembly_sym"/>
    <child link="tigh_subassembly_sym"/>
    <axis xyz="0 0 1"/>
    <limit effort="10" velocity="10" lower="-3.141592653589793" upper="3.141592653589793"/>
  </joint>
  <!-- Joint from hipx_subassemby_sym to hipy_subassembly_sym -->
  <joint name="hipx_left" type="revolute">
    <origin xyz="-0.01897 0.0289 -0.09689" rpy="0.0666815 0.313077 2.36501"/>
    <parent link="hipx_subassemby_sym"/>
    <child link="hipy_subassembly_sym"/>
    <axis xyz="0 0 1"/>
    <limit effort="10" velocity="10" lower="-3.141592653589793" upper="3.141592653589793"/>
  </joint>
  <!-- Joint from torso_subassembly to hipx_subassemby_sym -->
  <joint name="hipz_left" type="revolute">
    <origin xyz="-0.000819037 0.13316 0.04164" rpy="-0.0497566 0.132222 1.18484"/>
    <parent link="torso_subassembly"/>
    <child link="hipx_subassemby_sym"/>
    <axis xyz="0 0 1"/>
    <limit effort="10" velocity="10" lower="-3.141592653589793" upper="3.141592653589793"/>
  </joint>
  <!-- Link torso_mesh -->
  <link name="torso_mesh">
    <inertial>
      <origin xyz="-2.38855e-06 -1.36057e-58 -0.229519" rpy="0 0 0"/>
      <mass value="4"/>
      <inertia ixx="0.0564008" ixy="-2.74257e-59" ixz="-1.78695e-06" iyy="0.0460323" iyz="-9.72416e-63" izz="0.0120348"/>
    </inertial>
    <!-- Part torso_mesh -->
    <visual>
      <origin xyz="0.025 -0.503548 -0.15" rpy="3.14159 -0 5.44176e-57"/>
      <geometry>
        <mesh filename="package://assets/torso_mesh.stl"/>
      </geometry>
      <material name="torso_mesh_material">
        <color rgba="0.301961 0.301961 0.301961 1"/>
      </material>
    </visual>
    <collision>
      <origin xyz="0.025 -0.503548 -0.15" rpy="3.14159 -0 5.44176e-57"/>
      <geometry>
        <mesh filename="package://assets/torso_mesh.stl"/>
      </geometry>
    </collision>
  </link>
  <!-- Joint from torso_subassembly to torso_mesh -->
  <joint name="mesh" type="fixed">
    <origin xyz="0 0 -0.1" rpy="3.14159 2.63852e-30 4.89822e-27"/>
    <parent link="torso_subassembly"/>
    <child link="torso_mesh"/>
    <axis xyz="0 0 1"/>
    <limit effort="10" velocity="10"/>
  </joint>
  <!-- Link torso_assembly -->
  <link name="torso_assembly">
    <inertial>
      <origin xyz="0.0642483 0.0033559 -0.147734" rpy="0 0 0"/>
      <mass value="5.3328"/>
      <inertia ixx="0.0809488" ixy="0.00150091" ixz="-0.00814694" iyy="0.0629133" iyz="-0.0019297" izz="0.102673"/>
    </inertial>
    <!-- Part shoulder1_part -->
    <visual>
      <origin xyz="0.0129272 -0.0907454 -0.21843" rpy="2.74435 0.983006 0.194437"/>
      <geometry>
        <mesh filename="package://assets/shoulder1_part.stl"/>
      </geometry>
      <material name="shoulder1_part_material">
        <color rgba="0.917647 0.917647 0.917647 1"/>
      </material>
    </visual>
    <collision>
      <origin xyz="0.0129272 -0.0907454 -0.21843" rpy="2.74435 0.983006 0.194437"/>
      <geometry>
        <mesh filename="package://assets/shoulder1_part.stl"/>
      </geometry>
    </collision>
    <!-- Part shoulder2_part -->
    <visual>
      <origin xyz="0.0350801 0.0871187 -0.172987" rpy="-0.702482 -0.171745 0.168369"/>
      <geometry>
        <mesh filename="package://assets/shoulder2_part.stl"/>
      </geometry>
      <material name="shoulder2_part_material">
        <color rgba="1 0 0 1"/>
      </material>
    </visual>
    <collision>
      <origin xyz="0.0350801 0.0871187 -0.172987" rpy="-0.702482 -0.171745 0.168369"/>
      <geometry>
        <mesh filename="package://assets/shoulder2_part.stl"/>
      </geometry>
    </collision>
    <!-- Part bearing_holder_upperbody -->
    <visual>
      <origin xyz="-0.0349097 0.19219 -0.0559215" rpy="2.52912 0.501178 -0.444575"/>
      <geometry>
        <mesh filename="package://assets/bearing_holder_upperbody.stl"/>
      </geometry>
      <material name="bearing_holder_upperbody_material">
        <color rgba="1 0 0 1"/>
      </material>
    </visual>
    <collision>
      <origin xyz="-0.0349097 0.19219 -0.0559215" rpy="2.52912 0.501178 -0.444575"/>
      <geometry>
        <mesh filename="package://assets/bearing_holder_upperbody.stl"/>
      </geometry>
    </collision>
    <!-- Part rs00_3 -->
    <!-- Part robstrideo0_3 -->
    <visual>
      <origin xyz="0.681751 0.206845 -0.0299983" rpy="2.27328 0.171745 -2.97322"/>
      <geometry>
        <mesh filename="package://assets/robstrideo0.stl"/>
      </geometry>
      <material name="robstrideo0_3_material">
        <color rgba="0.301961 0.301961 0.301961 1"/>
      </material>
    </visual>
    <collision>
      <origin xyz="0.681751 0.206845 -0.0299983" rpy="2.27328 0.171745 -2.97322"/>
      <geometry>
        <mesh filename="package://assets/robstrideo0.stl"/>
      </geometry>
    </collision>
    <!-- Part bearing_holder_upperbody_2 -->
    <visual>
      <origin xyz="0.0311679 0.07813 -0.229704" rpy="-2.02226 -1.08677 0.158986"/>
      <geometry>
        <mesh filename="package://assets/bearing_holder_upperbody.stl"/>
      </geometry>
      <material name="bearing_holder_upperbody_2_material">
        <color rgba="1 0 0 1"/>
      </material>
    </visual>
    <collision>
      <origin xyz="0.0311679 0.07813 -0.229704" rpy="-2.02226 -1.08677 0.158986"/>
      <geometry>
        <mesh filename="package://assets/bearing_holder_upperbody.stl"/>
      </geometry>
    </collision>
    <!-- Part robstrideo0_4 -->
    <visual>
      <origin xyz="0.65906 -0.190398 -0.373493" rpy="2.55408 -0.379107 2.58963"/>
      <geometry>
        <mesh filename="package://assets/robstrideo0.stl"/>
      </geometry>
      <material name="robstrideo0_4_material">
        <color rgba="0.301961 0.301961 0.301961 1"/>
      </material>
    </visual>
    <collision>
      <origin xyz="0.65906 -0.190398 -0.373493" rpy="2.55408 -0.379107 2.58963"/>
      <geometry>
        <mesh filename="package://assets/robstrideo0.stl"/>
      </geometry>
    </collision>
    <!-- Part rs00_4 -->
    <!-- Part rs00_5 -->
    <!-- Part robstrideo0_5 -->
    <visual>
      <origin xyz="0.639148 -0.0302531 -0.593571" rpy="2.43918 -0.879101 -2.86146"/>
      <geometry>
        <mesh filename="package://assets/robstrideo0.stl"/>
      </geometry>
      <material name="robstrideo0_5_material">
        <color rgba="0.301961 0.301961 0.301961 1"/>
      </material>
    </visual>
    <collision>
      <origin xyz="0.639148 -0.0302531 -0.593571" rpy="2.43918 -0.879101 -2.86146"/>
      <geometry>
        <mesh filename="package://assets/robstrideo0.stl"/>
      </geometry>
    </collision>
    <!-- Part shoulder3_part -->
    <visual>
      <origin xyz="0.211892 -0.165659 -0.0910269" rpy="-2.65029 -0.508488 -0.552405"/>
      <geometry>
        <mesh filename="package://assets/shoulder3_part.stl"/>
      </geometry>
      <material name="shoulder3_part_material">
        <color rgba="1 0 0 1"/>
      </material>
    </visual>
    <collision>
      <origin xyz="0.211892 -0.165659 -0.0910269" rpy="-2.65029 -0.508488 -0.552405"/>
      <geometry>
        <mesh filename="package://assets/shoulder3_part.stl"/>
      </geometry>
    </collision>
    <!-- Part forarm_part -->
    <visual>
      <origin xyz="0.183463 0.199159 -0.0851981" rpy="2.23331 0.578738 -0.390293"/>
      <geometry>
        <mesh filename="package://assets/forarm_part.stl"/>
      </geometry>
      <material name="forarm_part_material">
        <color rgba="0.917647 0.917647 0.917647 1"/>
      </material>
    </visual>
    <collision>
      <origin xyz="0.183463 0.199159 -0.0851981" rpy="2.23331 0.578738 -0.390293"/>
      <geometry>
        <mesh filename="package://assets/forarm_part.stl"/>
      </geometry>
    </collision>
    <!-- Part torso_pperbody_part -->
    <visual>
      <origin xyz="-3.46945e-18 0 0" rpy="3.14159 -5.51912e-33 -1.21564e-33"/>
      <geometry>
        <mesh filename="package://assets/torso_pperbody_part.stl"/>
      </geometry>
      <material name="torso_pperbody_part_material">
        <color rgba="0.301961 0.301961 0.301961 1"/>
      </material>
    </visual>
    <collision>
      <origin xyz="-3.46945e-18 0 0" rpy="3.14159 -5.51912e-33 -1.21564e-33"/>
      <geometry>
        <mesh filename="package://assets/torso_pperbody_part.stl"/>
      </geometry>
    </collision>
    <!-- Part robstrideo0_6 -->
    <visual>
      <origin xyz="-0.491975 -0.221542 0.0994842" rpy="2.5229 0.491394 0.585307"/>
      <geometry>
        <mesh filename="package://assets/robstrideo0.stl"/>
      </geometry>
      <material name="robstrideo0_6_material">
        <color rgba="0.301961 0.301961 0.301961 1"/>
      </material>
    </visual>
    <collision>
      <origin xyz="-0.491975 -0.221542 0.0994842" rpy="2.5229 0.491394 0.585307"/>
      <geometry>
        <mesh filename="package://assets/robstrideo0.stl"/>
      </geometry>
    </collision>
    <!-- Part rs00_6 -->
    <!-- Part bearing_holder_upperbody_3 -->
    <visual>
      <origin xyz="-0.132416 -0.177102 -0.290974" rpy="-0.607143 -0.104716 0.108707"/>
      <geometry>
        <mesh filename="package://assets/bearing_holder_upperbody.stl"/>
      </geometry>
      <material name="bearing_holder_upperbody_3_material">
        <color rgba="1 0 0 1"/>
      </material>
    </visual>
    <collision>
      <origin xyz="-0.132416 -0.177102 -0.290974" rpy="-0.607143 -0.104716 0.108707"/>
      <geometry>
        <mesh filename="package://assets/bearing_holder_upperbody.stl"/>
      </geometry>
    </collision>
    <!-- Part bearing_holder_upperbody_4 -->
    <visual>
      <origin xyz="-0.116047 0.20345 -0.285486" rpy="-0.292208 0.049416 -1.01196"/>
      <geometry>
        <mesh filename="package://assets/bearing_holder_upperbody.stl"/>
      </geometry>
      <material name="bearing_holder_upperbody_4_material">
        <color rgba="1 0 0 1"/>
      </material>
    </visual>
    <collision>
      <origin xyz="-0.116047 0.20345 -0.285486" rpy="-0.292208 0.049416 -1.01196"/>
      <geometry>
        <mesh filename="package://assets/bearing_holder_upperbody.stl"/>
      </geometry>
    </collision>
    <!-- Part rs00_7 -->
    <!-- Part robstrideo0_7 -->
    <visual>
      <origin xyz="-0.491975 0.236796 0.0837372" rpy="0.61869 0.491394 -0.585307"/>
      <geometry>
        <mesh filename="package://assets/robstrideo0.stl"/>
      </geometry>
      <material name="robstrideo0_7_material">
        <color rgba="0.301961 0.301961 0.301961 1"/>
      </material>
    </visual>
    <collision>
      <origin xyz="-0.491975 0.236796 0.0837372" rpy="0.61869 0.491394 -0.585307"/>
      <geometry>
        <mesh filename="package://assets/robstrideo0.stl"/>
      </geometry>
    </collision>
    <!-- Part forarm_part_2 -->
    <visual>
      <origin xyz="0.212053 -0.165136 -0.0907797" rpy="0.53052 0.619054 0.0305204"/>
      <geometry>
        <mesh filename="package://assets/forarm_part.stl"/>
      </geometry>
      <material name="forarm_part_2_material">
        <color rgba="0.917647 0.917647 0.917647 1"/>
      </material>
    </visual>
    <collision>
      <origin xyz="0.212053 -0.165136 -0.0907797" rpy="0.53052 0.619054 0.0305204"/>
      <geometry>
        <mesh filename="package://assets/forarm_part.stl"/>
      </geometry>
    </collision>
    <!-- Part shoulder1_part_2 -->
    <visual>
      <origin xyz="0.0124217 0.0903539 -0.218164" rpy="2.14268 0.333811 -2.02436"/>
      <geometry>
        <mesh filename="package://assets/shoulder1_part.stl"/>
      </geometry>
      <material name="shoulder1_part_2_material">
        <color rgba="0.917647 0.917647 0.917647 1"/>
      </material>
    </visual>
    <collision>
      <origin xyz="0.0124217 0.0903539 -0.218164" rpy="2.14268 0.333811 -2.02436"/>
      <geometry>
        <mesh filename="package://assets/shoulder1_part.stl"/>
      </geometry>
    </collision>
    <!-- Part shoulder2_part_2 -->
    <visual>
      <origin xyz="0.0400553 -0.090825 -0.175582" rpy="0.844166 0.016044 -0.108377"/>
      <geometry>
        <mesh filename="package://assets/shoulder2_part.stl"/>
      </geometry>
      <material name="shoulder2_part_2_material">
        <color rgba="1 0 0 1"/>
      </material>
    </visual>
    <collision>
      <origin xyz="0.0400553 -0.090825 -0.175582" rpy="0.844166 0.016044 -0.108377"/>
      <geometry>
        <mesh filename="package://assets/shoulder2_part.stl"/>
      </geometry>
    </collision>
    <!-- Part bearing_holder_upperbody_5 -->
    <visual>
      <origin xyz="-0.00162556 -0.208312 -0.0568274" rpy="-1.86494 0.557101 0.649809"/>
      <geometry>
        <mesh filename="package://assets/bearing_holder_upperbody.stl"/>
      </geometry>
      <material name="bearing_holder_upperbody_5_material">
        <color rgba="1 0 0 1"/>
      </material>
    </visual>
    <collision>
      <origin xyz="-0.00162556 -0.208312 -0.0568274" rpy="-1.86494 0.557101 0.649809"/>
      <geometry>
        <mesh filename="package://assets/bearing_holder_upperbody.stl"/>
      </geometry>
    </collision>
    <!-- Part rs00_8 -->
    <!-- Part robstrideo0_8 -->
    <visual>
      <origin xyz="0.705486 -0.191653 -0.176017" rpy="0.72663 -0.016044 3.03322"/>
      <geometry>
        <mesh filename="package://assets/robstrideo0.stl"/>
      </geometry>
      <material name="robstrideo0_8_material">
        <color rgba="0.301961 0.301961 0.301961 1"/>
      </material>
    </visual>
    <collision>
      <origin xyz="0.705486 -0.191653 -0.176017" rpy="0.72663 -0.016044 3.03322"/>
      <geometry>
        <mesh filename="package://assets/robstrideo0.stl"/>
      </geometry>
    </collision>
    <!-- Part bearing_holder_upperbody_6 -->
    <visual>
      <origin xyz="0.030938 -0.0347581 -0.184871" rpy="-0.487206 -0.00498805 -1.02321"/>
      <geometry>
        <mesh filename="package://assets/bearing_holder_upperbody.stl"/>
      </geometry>
      <material name="bearing_holder_upperbody_6_material">
        <color rgba="1 0 0 1"/>
      </material>
    </visual>
    <collision>
      <origin xyz="0.030938 -0.0347581 -0.184871" rpy="-0.487206 -0.00498805 -1.02321"/>
      <geometry>
        <mesh filename="package://assets/bearing_holder_upperbody.stl"/>
      </geometry>
    </collision>
    <!-- Part robstrideo0_9 -->
    <visual>
      <origin xyz="0.587661 0.136802 -0.569134" rpy="0.681196 -0.687036 -2.5981"/>
      <geometry>
        <mesh filename="package://assets/robstrideo0.stl"/>
      </geometry>
      <material name="robstrideo0_9_material">
        <color rgba="0.301961 0.301961 0.301961 1"/>
      </material>
    </visual>
    <collision>
      <origin xyz="0.587661 0.136802 -0.569134" rpy="0.681196 -0.687036 -2.5981"/>
      <geometry>
        <mesh filename="package://assets/robstrideo0.stl"/>
      </geometry>
    </collision>
    <!-- Part rs00_9 -->
    <!-- Part rs00_10 -->
    <!-- Part robstrideo0_10 -->
    <visual>
      <origin xyz="-0.326713 0.402161 0.304563" rpy="2.23331 0.578738 -0.390293"/>
      <geometry>
        <mesh filename="package://assets/robstrideo0.stl"/>
      </geometry>
      <material name="robstrideo0_10_material">
        <color rgba="0.301961 0.301961 0.301961 1"/>
      </material>
    </visual>
    <collision>
      <origin xyz="-0.326713 0.402161 0.304563" rpy="2.23331 0.578738 -0.390293"/>
      <geometry>
        <mesh filename="package://assets/robstrideo0.stl"/>
      </geometry>
    </collision>
    <!-- Part shoulder3_part_2 -->
    <visual>
      <origin xyz="0.183364 0.199599 -0.0855941" rpy="-0.878813 -0.540934 0.777181"/>
      <geometry>
        <mesh filename="package://assets/shoulder3_part.stl"/>
      </geometry>
      <material name="shoulder3_part_2_material">
        <color rgba="1 0 0 1"/>
      </material>
    </visual>
    <collision>
      <origin xyz="0.183364 0.199599 -0.0855941" rpy="-0.878813 -0.540934 0.777181"/>
      <geometry>
        <mesh filename="package://assets/shoulder3_part.stl"/>
      </geometry>
    </collision>
  </link>
  <!-- Joint from torso_subassembly to torso_assembly -->
  <joint name="upper_body" type="fixed">
    <origin xyz="-0.0205428 4.05842e-07 0.036034" rpy="-3.14159 -7.46619e-17 1.59378e-17"/>
    <parent link="torso_subassembly"/>
    <child link="torso_assembly"/>
    <axis xyz="0 0 1"/>
    <limit effort="10" velocity="10"/>
  </joint>
</robot>
